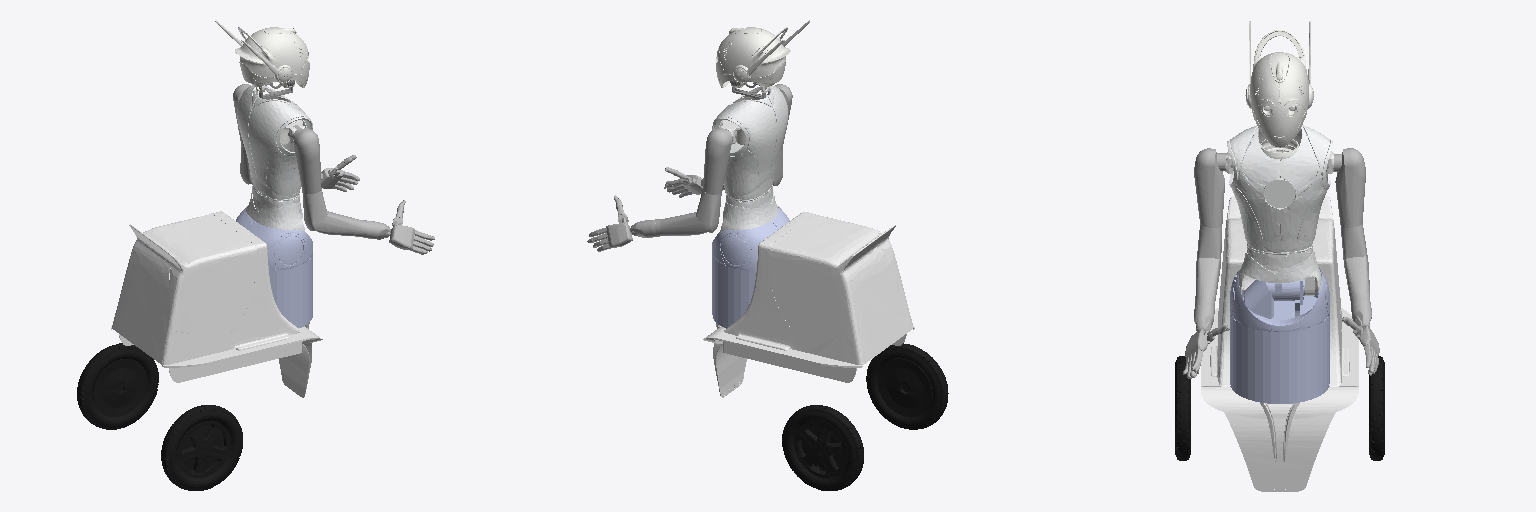
--- Facts derived from the render (not from the file) ---
3 views of the same robot in one strip: view 1: azimuth 30°, elevation 25°; view 2: azimuth 150°, elevation 25°; view 3: azimuth 270°, elevation 25° (orthographic).
Model avatar_r0_5 with 71 links and 70 joints (45 revolute, 2 continuous, 23 fixed), rooted at base_link, posed joints at zero except 2 at the middle of their limits (right_elbow = 1.13, left_elbow = 1.13).
Visible links, largest first — view 1: platform_link, chest_link, back_right_wheel_link, back_left_wheel_link, waist_link, head_link, right_should, right_EF, right_HR, right_Palm-1; view 2: platform_link, chest_link, back_left_wheel_link, back_right_wheel_link, waist_link, head_link, left_should, left_EF, left_HR, left_Palm-1; view 3: platform_link, chest_link, waist_link, head_link, left_should, right_should, back_right_wheel_link, back_left_wheel_link, right_EF, left_EF, right_HR, left_HR.
Boxes of the visible links, box(x1,y1,x2,y2) form: platform_link: box(111, 211, 322, 397); chest_link: box(237, 85, 312, 230); back_right_wheel_link: box(161, 405, 242, 490); back_left_wheel_link: box(77, 343, 158, 429); waist_link: box(236, 206, 312, 327); head_link: box(215, 20, 309, 92); right_should: box(294, 128, 321, 193); right_EF: box(307, 211, 362, 236); right_HR: box(302, 189, 327, 230); right_Palm-1: box(389, 221, 414, 249); platform_link: box(703, 212, 914, 397); chest_link: box(712, 85, 787, 231); back_left_wheel_link: box(782, 405, 863, 490); back_right_wheel_link: box(866, 343, 948, 429); waist_link: box(712, 206, 789, 328); head_link: box(716, 20, 809, 92); left_should: box(703, 128, 731, 194); left_EF: box(660, 212, 710, 235); left_HR: box(696, 190, 721, 232); left_Palm-1: box(606, 218, 632, 247); platform_link: box(1201, 195, 1358, 491); chest_link: box(1227, 125, 1332, 295); waist_link: box(1230, 268, 1329, 403); head_link: box(1245, 21, 1313, 147); left_should: box(1335, 148, 1365, 227); right_should: box(1194, 148, 1224, 227); back_right_wheel_link: box(1175, 356, 1190, 460); back_left_wheel_link: box(1369, 356, 1384, 460); right_EF: box(1195, 258, 1220, 301); left_EF: box(1344, 256, 1369, 300); right_HR: box(1197, 225, 1221, 259); left_HR: box(1341, 224, 1367, 259).
Bounding box of the posed robot: 1.12 × 0.6394 × 1.59 m (x, y, z).
82 mesh visuals loaded from 76 distinct referenced files (66 OBJ); not drawn: 1 (reference not matched to a file when rendering).

The robot description file, URDF, robot "avatar_r0_5":
<?xml version="1.0" encoding="utf-8"?>
<!-- =================================================================================== -->
<!-- |    This document was autogenerated by xacro from avatar_r0_5.urdf.xacro         | -->
<!-- |    EDITING THIS FILE BY HAND IS NOT RECOMMENDED                                 | -->
<!-- =================================================================================== -->
<!-- This URDF was automatically created by SolidWorks to URDF Exporter! Originally created by Stephen Brawner ([email redacted])
     Commit Version: 1.5.1-0-g916b5db  Build Version: 1.5.7152.31018
     For more information, please see http://wiki.ros.org/sw_urdf_exporter -->
<robot name="avatar_r0_5">
  <link name="base_link">
  </link>
  <link name="robot_base_link">
    <inertial>
      <origin rpy="0 0 0" xyz="-0.00059717 0.23425 0.23101"/>
      <mass value="618.166"/>
      <inertia ixx="0.27355" ixy="-3.5553E-08" ixz="1.7118E-08" iyy="0.032156" iyz="0.026709" izz="0.25168"/>
    </inertial>
    <visual>
      <origin rpy="0 0 0" xyz="0 0 0"/>
      <geometry>
        <mesh filename="meshes/base_link.obj"/>
      </geometry>
      <material name="">
        <color rgba="0.078431 0.078431 0.078431 1"/>
      </material>
    </visual>
    <collision>
      <origin rpy="0 0 0" xyz="0 0 0"/>
      <geometry>
        <mesh filename="meshes/base_link.obj"/>
      </geometry>
    </collision>
  </link>
  <joint name="base2base" type="fixed">
    <origin rpy="0 0 1.5708" xyz="0.47189 0 0"/>
    <parent link="base_link"/>
    <child link="robot_base_link"/>
    <axis xyz="0 0 0"/>
  </joint>
  <link name="platform_link">
    <inertial>
      <origin rpy="0 0 0" xyz="-0.0019169 -0.019253 0.12225"/>
      <mass value="5.2089"/>
      <inertia ixx="0.097524" ixy="-0.0012534" ixz="0.0012359" iyy="0.12991" iyz="0.009425" izz="0.12902"/>
    </inertial>
    <visual>
      <origin rpy="0 0 0" xyz="0 0 0"/>
      <geometry>
        <mesh filename="meshes/platform_link.obj"/>
      </geometry>
      <material name="">
        <color rgba="0.96078 0.96078 0.96471 1"/>
      </material>
    </visual>
    <collision>
      <origin rpy="0 0 0" xyz="0 0 0"/>
      <geometry>
        <mesh filename="meshes/platform_link.obj"/>
      </geometry>
    </collision>
  </link>
  <joint name="base2platform" type="fixed">
    <origin rpy="0 0 0" xyz="-0.00064398 0.26937 0.44804"/>
    <parent link="robot_base_link"/>
    <child link="platform_link"/>
    <axis xyz="0 0 0"/>
  </joint>
  <link name="waist_link">
    <inertial>
      <origin rpy="0 0 0" xyz="0.0018725 -0.0033609 0.1446"/>
      <mass value="21.191"/>
      <inertia ixx="0.19935" ixy="-1.3224E-06" ixz="0.00099714" iyy="0.2049" iyz="-0.00020488" izz="0.21829"/>
    </inertial>
    <visual>
      <origin rpy="0 0 0" xyz="0 0 0"/>
      <geometry>
        <mesh filename="meshes/waist_link.obj"/>
      </geometry>
      <material name="">
        <color rgba="0.79216 0.81961 0.93333 1"/>
      </material>
    </visual>
    <collision>
      <origin rpy="0 0 0" xyz="0 0 0"/>
      <geometry>
        <mesh filename="meshes/waist_link.obj"/>
      </geometry>
    </collision>
  </link>
  <joint name="waist_rot" type="fixed">
    <origin rpy="0 0 -1.5708" xyz="0 -0.24 -1.325E-05"/>
    <parent link="platform_link"/>
    <child link="waist_link"/>
    <axis xyz="0 0 -1"/>
    <limit effort="0" lower="-1" upper="1" velocity="2"/>
  </joint>
  <link name="chest_link">
    <inertial>
      <origin rpy="0 0 0" xyz="0.0372440537545067 0.11132546173049 0.0211577100485159"/>
      <mass value="0.304842527068954"/>
      <inertia ixx="0.000294481419363187" ixy="0.000242567817341944" ixz="-5.52363714472291E-07" iyy="0.00103928704482828" iyz="4.86582984793202E-06" izz="0.00120731891145862"/>
    </inertial>
    <visual>
      <origin rpy="0 0 0" xyz="0 0 0"/>
      <geometry>
        <mesh filename="meshes/chest_link.obj"/>
      </geometry>
      <material name="">
        <color rgba="0.956862745098039 0.96078431372549 0.964705882352941 1"/>
      </material>
    </visual>
    <collision>
      <origin rpy="0 0 0" xyz="0 0 0"/>
      <geometry>
        <mesh filename="meshes/chest_link.obj"/>
      </geometry>
    </collision>
  </link>
  <joint name="waist_tilt" type="fixed">
    <origin rpy="1.5708 0 1.5708" xyz="0.026019 0 0.336"/>
    <parent link="waist_link"/>
    <child link="chest_link"/>
    <axis xyz="-1 0 0"/>
    <limit effort="0" lower="0" upper="1" velocity="2"/>
  </joint>
  <link name="headset_static_link"/>
  <joint name="headset_static" type="fixed">
    <origin xyz="0 0.561 -0.058"/>
    <parent link="chest_link"/>
    <child link="headset_static_link"/>
    <axis xyz="0 0 0"/>
  </joint>
  <link name="r_should_axis_link">
    <inertial>
      <origin rpy="0 0 0" xyz="0.0271747977618289 -2.87714544225082E-05 0.0136872715581331"/>
      <mass value="0.0760510742436307"/>
      <inertia ixx="5.01097287434105E-05" ixy="3.09946970417366E-08" ixz="2.474321199555E-05" iyy="0.000103376219183421" iyz="1.77481964668466E-08" izz="0.000115998977330436"/>
    </inertial>
    <visual>
      <origin rpy="0 0 0" xyz="0 0 0"/>
      <geometry>
        <mesh filename="meshes/r_should_axis_link.obj"/>
      </geometry>
      <material name="">
        <color rgba="0.96078431372549 0.96078431372549 0.964705882352941 1"/>
      </material>
    </visual>
    <collision>
      <origin rpy="0 0 0" xyz="0 0 0"/>
      <geometry>
        <mesh filename="meshes/r_should_axis_link.obj"/>
      </geometry>
    </collision>
  </link>
  <joint name="right_shoulder_add" type="revolute">
    <origin rpy="1.5708 0 3.1416" xyz="-0.10061 0.416 0"/>
    <parent link="chest_link"/>
    <child link="r_should_axis_link"/>
    <axis xyz="0 0 -1"/>
    <limit effort="1" lower="-0.4" upper="0.75" velocity="1.0"/>
  </joint>
  <link name="r_interface_link">
    <inertial>
      <mass value="2e-06"/>
      <inertia ixx="1.1e-09" ixy="0" ixz="0" iyy="1.1e-09" iyz="0" izz="1.1e-09"/>
    </inertial>
  </link>
  <joint name="r_rot2int" type="fixed">
    <origin rpy="1.5708 0 -1.5708" xyz="0.065 0 0"/>
    <parent link="r_should_axis_link"/>
    <child link="r_interface_link"/>
    <axis xyz="0 0 0"/>
  </joint>
  <link name="l_should_axis_link">
    <inertial>
      <origin rpy="0 0 0" xyz="0.0271746660088268 -7.81820416141978E-05 0.0136872746188932"/>
      <mass value="0.0760509825087617"/>
      <inertia ixx="5.01100039793683E-05" ixy="1.27864503626856E-07" ixz="2.47431993244341E-05" iyy="0.000103375868748006" iyz="-2.72311343991148E-08" izz="0.000115998907803854"/>
    </inertial>
    <visual>
      <origin rpy="0 0 0" xyz="0 0 0"/>
      <geometry>
        <mesh filename="meshes/l_should_axis_link.obj"/>
      </geometry>
      <material name="">
        <color rgba="0.96078431372549 0.96078431372549 0.964705882352941 1"/>
      </material>
    </visual>
    <collision>
      <origin rpy="0 0 0" xyz="0 0 0"/>
      <geometry>
        <mesh filename="meshes/l_should_axis_link.obj"/>
      </geometry>
    </collision>
  </link>
  <joint name="left_shoulder_add" type="revolute">
    <origin rpy="-1.5708 0 0" xyz="0.10061 0.416 0"/>
    <parent link="chest_link"/>
    <child link="l_should_axis_link"/>
    <axis xyz="0 0 -1"/>
    <limit effort="1" lower="-0.4" upper="0.75" velocity="1.0"/>
  </joint>
  <link name="l_interface_link">
    <inertial>
      <mass value="2e-06"/>
      <inertia ixx="1.1e-09" ixy="0" ixz="0" iyy="1.1e-09" iyz="0" izz="1.1e-09"/>
    </inertial>
  </link>
  <joint name="l_rot2int" type="fixed">
    <origin rpy="1.5708 0 -1.5708" xyz="0.065 0 0"/>
    <parent link="l_should_axis_link"/>
    <child link="l_interface_link"/>
    <axis xyz="0 0 0"/>
  </joint>
  <link name="neck_link">
    <inertial>
      <origin rpy="0 0 0" xyz="0.00254198003148301 -0.0042899348435868 0.0597355945693789"/>
      <mass value="0.226156386299716"/>
      <inertia ixx="0.000298264432447616" ixy="-8.6285503781533E-08" ixz="-2.54208064471585E-05" iyy="0.000445729865029852" iyz="3.08030083027245E-06" izz="0.000263681814976853"/>
    </inertial>
    <visual>
      <origin rpy="0 0 0" xyz="0 0 0"/>
      <geometry>
        <mesh filename="meshes/neck_link.obj"/>
      </geometry>
      <material name="">
        <color rgba="0.964705882352941 0.964705882352941 0.952941176470588 1"/>
      </material>
    </visual>
    <collision>
      <origin rpy="0 0 0" xyz="0 0 0"/>
      <geometry>
        <mesh filename="meshes/neck_link.obj"/>
      </geometry>
    </collision>
  </link>
  <joint name="head_roll" type="revolute">
    <origin rpy="1.5708 -1.5708 0" xyz="0 0.46811 0"/>
    <parent link="chest_link"/>
    <child link="neck_link"/>
    <axis xyz="0 0 -1"/>
    <limit effort="0" lower="-1" upper="1" velocity="2"/>
  </joint>
  <link name="int_neck_link">
    <inertial>
      <origin rpy="0 0 0" xyz="0.00446725260220915 -0.0183808549428746 0.0300851016361073"/>
      <mass value="0.114056596786427"/>
      <inertia ixx="0.00012606821774216" ixy="2.28265988902673E-05" ixz="-7.8541837751612E-10" iyy="7.66886412489432E-05" iyz="8.94077252626148E-07" izz="0.000161197943235499"/>
    </inertial>
    <visual>
      <origin rpy="0 0 0" xyz="0 0 0"/>
      <geometry>
        <mesh filename="meshes/int_neck_link.obj"/>
      </geometry>
      <material name="">
        <color rgba="0.627450980392157 0.627450980392157 0.627450980392157 1"/>
      </material>
    </visual>
    <collision>
      <origin rpy="0 0 0" xyz="0 0 0"/>
      <geometry>
        <mesh filename="meshes/int_neck_link.obj"/>
      </geometry>
    </collision>
  </link>
  <joint name="head_pitch" type="revolute">
    <origin rpy="1.5708 -1.5708 0" xyz="0 0.03 -0.092793"/>
    <parent link="neck_link"/>
    <child link="int_neck_link"/>
    <axis xyz="0 0 -1"/>
    <limit effort="0" lower="-1" upper="1" velocity="2"/>
  </joint>
  <link name="head_link">
    <inertial>
      <origin rpy="0 0 0" xyz="-0.00034972360416687 0.100321708327407 0.0462704493794094"/>
      <mass value="0.984338424422936"/>
      <inertia ixx="0.00909196152115448" ixy="1.96099549660613E-05" ixz="-7.54355391932556E-05" iyy="0.00887552436672255" iyz="0.00107906657883322" izz="0.0058997338915657"/>
    </inertial>
    <visual>
      <origin rpy="0 0 0" xyz="0 0 0"/>
      <geometry>
        <mesh filename="meshes/head_link.obj"/>
      </geometry>
      <material name="">
        <color rgba="0.964705882352941 0.964705882352941 0.952941176470588 1"/>
      </material>
    </visual>
    <collision>
      <origin rpy="0 0 0" xyz="0 0 0"/>
      <geometry>
        <mesh filename="meshes/head_link.obj"/>
      </geometry>
    </collision>
  </link>
  <joint name="head_yaw" type="revolute">
    <origin rpy="1.5708 -1.5708 0" xyz="0 0.0583 0.03"/>
    <parent link="int_neck_link"/>
    <child link="head_link"/>
    <axis xyz="0 0 -1"/>
    <limit effort="0" lower="-1" upper="1" velocity="2"/>
  </joint>
  <gazebo reference="head_link">
    <sensor name="stereo_camera" type="multicamera">
      <update_rate>30.0</update_rate>
      <camera name="left">
        <pose>0.34 0.08 0.18 -1.5 -1.57079632679 0</pose>
        <horizontal_fov>1.5</horizontal_fov>
        <image>
          <width>2000</width>
          <height>2000</height>
          <format>R8G8B8</format>
        </image>
        <clip>
          <near>0.02</near>
          <far>300</far>
        </clip>
        <noise>
          <type>gaussian</type>
          <mean>0.0</mean>
          <stddev>0.007</stddev>
        </noise>
      </camera>
      <camera name="right">
        <pose>-0.34 0.08 0.18 -1.5 -1.57079632679 0</pose>
        <horizontal_fov>1.5</horizontal_fov>
        <image>
          <width>2000</width>
          <height>2000</height>
          <format>R8G8B8</format>
        </image>
        <clip>
          <near>0.02</near>
          <far>300</far>
        </clip>
        <noise>
          <type>gaussian</type>
          <mean>0.0</mean>
          <stddev>0.007</stddev>
        </noise>
      </camera>
      <plugin filename="libgazebo_ros_multicamera.so" name="stereo_camera_controller">
        <alwaysOn>true</alwaysOn>
        <updateRate>30.0</updateRate>
        <cameraName>stereo</cameraName>
        <imageTopicName>image_raw</imageTopicName>
        <cameraInfoTopicName>camera_info</cameraInfoTopicName>
        <frameName>headset_ref_link</frameName>
        <!--<rightFrameName>right_camera_optical_frame</rightFrameName>-->
        <hackBaseline>0.07</hackBaseline>
        <distortionK1>0.0</distortionK1>
        <distortionK2>0.0</distortionK2>
        <distortionK3>0.0</distortionK3>
        <distortionT1>0.0</distortionT1>
        <distortionT2>0.0</distortionT2>
      </plugin>
    </sensor>
  </gazebo>
  <link name="back_right_wheel_link">
    <inertial>
      <origin rpy="0 0 0" xyz="0.273920577623631 0.179561068433909 0.286971322571023"/>
      <mass value="54.5072450439845"/>
      <inertia ixx="3.2626420916854" ixy="-0.715168125553895" ixz="0.00187676696111892" iyy="3.65946751006854" iyz="-0.0238541518110344" izz="4.53563009030134"/>
    </inertial>
    <visual>
      <origin rpy="0 0 0" xyz="0 0 0"/>
      <geometry>
        <mesh filename="meshes/rdwheel_link.obj"/>
      </geometry>
      <material name="">
        <color rgba="0.152941176470588 0.152941176470588 0.152941176470588 1"/>
      </material>
    </visual>
    <collision>
      <origin rpy="0 0 0" xyz="0 0 0"/>
      <geometry>
        <cylinder length="0.05" radius="0.16"/>
      </geometry>
    </collision>
  </link>
  <gazebo reference="back_right_wheel_link">
    <mu1 value="1e+15.0"/>
    <mu2 value="1e+15.0"/>
    <kp value="10000000.0"/>
    <kd value="1.0"/>
  </gazebo>
  <joint name="back_right_wheel" type="continuous">
    <parent link="robot_base_link"/>
    <child link="back_right_wheel_link"/>
    <origin rpy="0 1.5707963267949 0" xyz="-0.288475010713314 0.47189 0.15651"/>
    <axis rpy="0 0 0" xyz="0 0 1.0"/>
  </joint>
  <transmission name="back_right_wheel_trans" type="SimpleTransmission">
    <type>transmission_interface/SimpleTransmission</type>
    <actuator name="back_right_wheel_motor">
      <mechanicalReduction>1</mechanicalReduction>
    </actuator>
    <joint name="back_right_wheel">
      <hardwareInterface>hardware_interface/VelocityJointInterface</hardwareInterface>
    </joint>
  </transmission>
  <link name="back_left_wheel_link">
    <inertial>
      <origin rpy="0 0 0" xyz="0.273920577623631 0.179561068433909 0.286971322571023"/>
      <mass value="54.5072450439845"/>
      <inertia ixx="3.2626420916854" ixy="-0.715168125553895" ixz="0.00187676696111892" iyy="3.65946751006854" iyz="-0.0238541518110344" izz="4.53563009030134"/>
    </inertial>
    <visual>
      <origin rpy="0 0 0" xyz="0 0 0"/>
      <geometry>
        <mesh filename="meshes/rdwheel_link.obj"/>
      </geometry>
      <material name="">
        <color rgba="0.152941176470588 0.152941176470588 0.152941176470588 1"/>
      </material>
    </visual>
    <collision>
      <origin rpy="0 0 0" xyz="0 0 0"/>
      <geometry>
        <cylinder length="0.05" radius="0.16"/>
      </geometry>
    </collision>
  </link>
  <gazebo reference="back_left_wheel_link">
    <mu1 value="1e+15.0"/>
    <mu2 value="1e+15.0"/>
    <kp value="10000000.0"/>
    <kd value="1.0"/>
  </gazebo>
  <joint name="back_left_wheel" type="continuous">
    <parent link="robot_base_link"/>
    <child link="back_left_wheel_link"/>
    <origin rpy="0 -1.5707963267949 0" xyz="0.288475010713314 0.47189 0.15651"/>
    <axis rpy="0 0 0" xyz="0 0 -1.0"/>
  </joint>
  <transmission name="back_left_wheel_trans" type="SimpleTransmission">
    <type>transmission_interface/SimpleTransmission</type>
    <actuator name="back_left_wheel_motor">
      <mechanicalReduction>1</mechanicalReduction>
    </actuator>
    <joint name="back_left_wheel">
      <hardwareInterface>hardware_interface/VelocityJointInterface</hardwareInterface>
    </joint>
  </transmission>
  <link name="right_SFA">
    <inertial>
      <origin rpy="1.57079632679 1.57079632679 0" xyz="0 0 -0.038"/>
      <mass value="0.481"/>
      <inertia ixx="0.00017071" ixy="2.1462E-06" ixz="-7.2565E-07" iyy="0.00016837" iyz="4.1009E-07" izz="0.00030213"/>
    </inertial>
    <collision>
      <origin rpy="0 0 0" xyz="0 0 -0.0325"/>
      <geometry>
        <cylinder length="0.07" radius="0.0276"/>
      </geometry>
    </collision>
    <visual>
      <origin rpy="0 0 0" xyz="0 0 -0.0325"/>
      <geometry>
        <cylinder length="0.07" radius="0.0276"/>
      </geometry>
      <material name="">
        <color rgba="0.75294 0.75294 0.75294 1"/>
      </material>
    </visual>
  </link>
  <joint name="right_abductor" type="revolute">
    <origin rpy="0.02569452348 3.1415926 0" xyz="0 0 -0.035"/>
    <parent link="r_interface_link"/>
    <child link="right_SFA"/>
    <axis xyz="-1 0 0"/>
    <limit effort="10.0" lower="0.0" upper="0.6" velocity="2.0"/>
    <dynamics damping="2.0" friction="0"/>
  </joint>
  <link name="right_should">
    <inertial>
      <origin rpy="0 0 0" xyz="0 0 0"/>
      <mass value="0.481"/>
      <inertia ixx="0.00017071" ixy="2.1462E-06" ixz="-7.2565E-07" iyy="0.00016837" iyz="4.1009E-07" izz="0.00030213"/>
    </inertial>
    <collision>
      <origin rpy="0 0 0" xyz="0 0 0"/>
      <geometry>
        <mesh filename="meshes/right/Arm_SFA.obj"/>
      </geometry>
    </collision>
    <visual>
      <origin rpy="0 0 0" xyz="0 0 0"/>
      <geometry>
        <mesh filename="meshes/right/Arm_SFA.obj"/>
      </geometry>
      <material name="">
        <color rgba="0.75294 0.75294 0.75294 1"/>
      </material>
    </visual>
  </link>
  <joint name="right_shoulder" type="revolute">
    <origin rpy="-0.0872665 0 0.12545544" xyz="0 0 0.0"/>
    <parent link="right_SFA"/>
    <child link="right_should"/>
    <axis xyz="0 0 1"/>
    <limit effort="10.0" lower="-0.48" upper="2.0" velocity="2.0"/>
    <dynamics damping="2.0" friction="0"/>
  </joint>
  <link name="right_HR">
    <inertial>
      <origin rpy="0 0 0" xyz="0 0 0"/>
      <mass value="0.481"/>
      <inertia ixx="0.00017071" ixy="2.1462E-06" ixz="-7.2565E-07" iyy="0.00016837" iyz="4.1009E-07" izz="0.00030213"/>
    </inertial>
    <collision>
      <origin rpy="0 0 0" xyz="0 0 0"/>
      <geometry>
        <mesh filename="meshes/right/Arm_HR.obj"/>
      </geometry>
    </collision>
    <visual>
      <origin rpy="0 0 0" xyz="0 0 0"/>
      <geometry>
        <mesh filename="meshes/right/Arm_HR.obj"/>
      </geometry>
      <material name="">
        <color rgba="0.75294 0.75294 0.75294 1"/>
      </material>
    </visual>
  </link>
  <joint name="right_humeral" type="revolute">
    <origin rpy="0 -0.0349065 0" xyz="0 -0.314 -0.0045"/>
    <parent link="right_should"/>
    <child link="right_HR"/>
    <axis xyz="0 -1 0"/>
    <limit effort="10.0" lower="-1.6" upper="1.65" velocity="2.0"/>
    <dynamics damping="2.0" friction="0"/>
  </joint>
  <link name="right_EF">
    <inertial>
      <origin rpy="0 0 0" xyz="0 0 0"/>
      <mass value="0.481"/>
      <inertia ixx="0.00017071" ixy="2.1462E-06" ixz="-7.2565E-07" iyy="0.00016837" iyz="4.1009E-07" izz="0.00030213"/>
    </inertial>
    <collision>
      <origin rpy="0 0 0" xyz="0 0 0"/>
      <geometry>
        <mesh filename="meshes/right/Arm_EF.obj"/>
      </geometry>
    </collision>
    <visual>
      <origin rpy="0 0 0" xyz="0 0 0"/>
      <geometry>
        <mesh filename="meshes/right/Arm_EF.obj"/>
      </geometry>
      <material name="">
        <color rgba="0.75294 0.75294 0.75294 1"/>
      </material>
    </visual>
  </link>
  <joint name="right_elbow" type="revolute">
    <origin rpy="0.02236203 1.57079632679 0" xyz="0 0 0"/>
    <parent link="right_HR"/>
    <child link="right_EF"/>
    <axis xyz="-1 0 0"/>
    <limit effort="10.0" lower="0.0125" upper="2.25" velocity="2.0"/>
    <dynamics damping="2.0" friction="0"/>
  </joint>
  <!-- Model SDF copied from gazebo_models
  <gazebo>
    <joint name='${prefix}_elbow' type='revolute'>
      <child>WR_Base-1</child>
      <parent>world</parent>
      <axis>
        <xyz>0 0 1.0</xyz>
        <limit>
          <lower>0</lower>
          <upper>0</upper>
          <effort>10000</effort>
          <velocity>-1</velocity>
        </limit>
        <dynamics>
          <damping>2</damping>
          <friction>0</friction>
          <spring_reference>0</spring_reference>
          <spring_stiffness>0</spring_stiffness>
        </dynamics>
        <use_parent_model_frame>1</use_parent_model_frame>
      </axis>
      <physics>
        <provide_feedback>1</provide_feedback>
        <ode>
          <provide_feedback>1</provide_feedback>
          <implicit_spring_damper>1</implicit_spring_damper>
          <cfm_damping>1</cfm_damping>
          <limit>
            <cfm>0.01</cfm>
            <erp>0</erp>
          </limit>
        </ode>
      </physics>
    </joint>
  </gazebo>
  -->
  <transmission name="right_tran1" type="SimpleTransmission">
    <type>transmission_interface/SimpleTransmission</type>
    <joint name="right_abductor">
      <hardwareInterface>hardware_interface/PositionJointInterface</hardwareInterface>
    </joint>
    <actuator name="right_motor1">
      <mechanicalReduction>1</mechanicalReduction>
    </actuator>
  </transmission>
  <transmission name="right_tran2" type="SimpleTransmission">
    <type>transmission_interface/SimpleTransmission</type>
    <joint name="right_shoulder">
      <hardwareInterface>hardware_interface/PositionJointInterface</hardwareInterface>
    </joint>
    <actuator name="right_motor2">
      <mechanicalReduction>1</mechanicalReduction>
    </actuator>
  </transmission>
  <transmission name="right_tran3" type="SimpleTransmission">
    <type>transmission_interface/SimpleTransmission</type>
    <joint name="right_humeral">
      <hardwareInterface>hardware_interface/PositionJointInterface</hardwareInterface>
    </joint>
    <actuator name="right_motor3">
      <mechanicalReduction>1</mechanicalReduction>
    </actuator>
  </transmission>
  <transmission name="right_tran4" type="SimpleTransmission">
    <type>transmission_interface/SimpleTransmission</type>
    <joint name="right_elbow">
      <hardwareInterface>hardware_interface/PositionJointInterface</hardwareInterface>
    </joint>
    <actuator name="right_motor4">
      <mechanicalReduction>1</mechanicalReduction>
    </actuator>
  </transmission>
  <gazebo reference="right_abductor">
    <implicitSpringDamper>1</implicitSpringDamper>
    <cfm>0.01</cfm>
    <erp>0.0</erp>
    <stopCfm>0.01</stopCfm>
    <stopErp>0.0</stopErp>
  </gazebo>
  <gazebo reference="right_shoulder">
    <implicitSpringDamper>1</implicitSpringDamper>
    <cfm>0.01</cfm>
    <erp>0.0</erp>
    <stopCfm>0.01</stopCfm>
    <stopErp>0.0</stopErp>
  </gazebo>
  <gazebo reference="right_humeral">
    <implicitSpringDamper>1</implicitSpringDamper>
    <cfm>0.01</cfm>
    <erp>0.0</erp>
    <stopCfm>0.01</stopCfm>
    <stopErp>0.0</stopErp>
  </gazebo>
  <gazebo reference="right_elbow">
    <implicitSpringDamper>1</implicitSpringDamper>
    <cfm>0.01</cfm>
    <erp>0.0</erp>
    <stopCfm>0.01</stopCfm>
    <stopErp>0.0</stopErp>
  </gazebo>
  <gazebo reference="right_SFA">
    <!-- <selfCollide>1</selfCollide> -->
    <collision>
      <max_contacts>4</max_contacts>
      <surface>
        <contact>
          <ode>
            <kp>1e+06</kp>
            <kd>100</kd>
            <max_vel>100</max_vel>
            <min_depth>0.001</min_depth>
          </ode>
        </contact>
        <friction>
          <ode>
            <mu>1</mu>
            <mu2>1</mu2>
          </ode>
        </friction>
      </surface>
    </collision>
    <visual>
      <material>
        <ambient> 0.5 0.5 0.5 1.0</ambient>
        <diffuse> 0.5 0.5 0.5 1.0</diffuse>
        <specular>0.5 0.5 0.5 0.8</specular>
      </material>
    </visual>
  </gazebo>
  <gazebo reference="right_should">
    <!-- <selfCollide>1</selfCollide> -->
    <collision>
      <max_contacts>4</max_contacts>
      <surface>
        <contact>
          <ode>
            <kp>1e+06</kp>
            <kd>100</kd>
            <max_vel>100</max_vel>
            <min_depth>0.001</min_depth>
          </ode>
        </contact>
        <friction>
          <ode>
            <mu>1</mu>
            <mu2>1</mu2>
          </ode>
        </friction>
      </surface>
    </collision>
    <visual>
      <material>
        <ambient> 0.5 0.5 0.5 1.0</ambient>
        <diffuse> 0.5 0.5 0.5 1.0</diffuse>
        <specular>0.5 0.5 0.5 0.8</specular>
      </material>
    </visual>
  </gazebo>
  <gazebo reference="right_HR">
    <!-- <selfCollide>1</selfCollide> -->
    <collision>
      <max_contacts>4</max_contacts>
      <surface>
        <contact>
          <ode>
            <kp>1e+06</kp>
            <kd>100</kd>
            <max_vel>100</max_vel>
            <min_depth>0.001</min_depth>
          </ode>
        </contact>
        <friction>
          <ode>
            <mu>1</mu>
            <mu2>1</mu2>
          </ode>
        </friction>
      </surface>
    </collision>
    <visual>
      <material>
        <ambient> 0.5 0.5 0.5 1.0</ambient>
        <diffuse> 0.5 0.5 0.5 1.0</diffuse>
        <specular>0.5 0.5 0.5 0.8</specular>
      </material>
    </visual>
  </gazebo>
  <gazebo reference="right_EF">
    <!-- <selfCollide>1</selfCollide> -->
    <collision>
      <max_contacts>4</max_contacts>
      <surface>
        <contact>
          <ode>
            <kp>1e+06</kp>
            <kd>100</kd>
            <max_vel>100</max_vel>
            <min_depth>0.001</min_depth>
          </ode>
        </contact>
        <friction>
          <ode>
            <mu>1</mu>
            <mu2>1</mu2>
          </ode>
        </friction>
      </surface>
    </collision>
    <visual>
      <material>
        <ambient> 0.5 0.5 0.5 1.0</ambient>
        <diffuse> 0.5 0.5 0.5 1.0</diffuse>
        <specular>0.5 0.5 0.5 0.8</specular>
      </material>
    </visual>
  </gazebo>
  <gazebo reference="right_WR_Forearm-1">
    <!-- <selfCollide>1</selfCollide> -->
    <collision>
      <max_contacts>4</max_contacts>
      <surface>
        <contact>
          <ode>
            <kp>1e+06</kp>
            <kd>100</kd>
            <max_vel>100</max_vel>
            <min_depth>0.001</min_depth>
          </ode>
        </contact>
        <friction>
          <ode>
            <mu>1</mu>
            <mu2>1</mu2>
          </ode>
        </friction>
      </surface>
    </collision>
    <visual>
      <material>
        <ambient> 0.6 0.6 0.6 1.0</ambient>
        <diffuse> 0.6 0.6 0.6 1.0</diffuse>
        <specular>0.6 0.6 0.6 0.8</specular>
      </material>
    </visual>
  </gazebo>
  <link name="right_WR_Base-1">
    <inertial>
      <origin rpy="0 0 -1.5708" xyz="0.00023527 0 0.01049"/>
      <mass value="0.481"/>
      <inertia ixx="0.00017071" ixy="2.1462E-06" ixz="-7.2565E-07" iyy="0.00016837" iyz="4.1009E-07" izz="0.00030213"/>
    </inertial>
    <collision>
      <origin rpy="0 0 0" xyz="0 0 0.0105"/>
      <geometry>
        <cylinder length="0.029" radius="0.032"/>
      </geometry>
    </collision>
    <visual>
      <origin rpy="0 0 0" xyz="0 0 0.025"/>
      <geometry>
        <mesh filename="meshes/right/base.obj"/>
      </geometry>
      <material name="">
        <color rgba="0.75294 0.75294 0.75294 1"/>
      </material>
    </visual>
    <!--
    <visual>
      <origin xyz="0 0 0.001" rpy="0 0 0"/>
      <geometry>
        <mesh
          filename="meshes/${prefix}/WR_Base-1a.obj" />
      </geometry>
      <material
        name="">
        <color
          rgba="0.75294 0.75294 0.75294 1" />
      </material>
    </visual>
    <visual>
      <origin xyz="0 0 0.02" rpy="0 0 0"/>
      <geometry>
        <mesh
          filename="meshes/${prefix}/WR_Base-1.obj" />
      </geometry>
      <material
        name="">
        <color
          rgba="0.75294 0.75294 0.75294 1" />
      </material>
    </visual>
    -->
  </link>
  <joint name="right_EF2Base" type="fixed">
    <origin rpy="1.57079632679 0 0" xyz="0.0 -0.169 -0.009"/>
    <parent link="right_EF"/>
    <child link="right_WR_Base-1"/>
  </joint>
  <gazebo>
    <joint name="right_EF2Base" type="fixed">
      <pose>0.0 -0.169 -0.009 1.57079632679 0 0</pose>
      <parent>right_EF</parent>
      <child>right_WR_Base-1</child>
    </joint>
  </gazebo>
  <link name="right_WR_Forearm-1">
    <inertial>
      <origin rpy="0 0 0" xyz="0.00023527 -0.00012926 0.01049"/>
      <mass value="0.481"/>
      <inertia ixx="0.00017071" ixy="2.1462E-06" ixz="-7.2565E-07" iyy="0.00016837" iyz="4.1009E-07" izz="0.00030213"/>
    </inertial>
    <collision>
      <origin rpy="0 0 0" xyz="0 0 0.065"/>
      <geometry>
        <cylinder length="0.08" radius="0.032"/>
      </geometry>
    </collision>
    <collision>
      <origin rpy="1.570796 0 -0.58" xyz="0 0 0.121"/>
      <geometry>
        <cylinder length="0.020" radius="0.02"/>
      </geometry>
    </collision>
    <collision>
      <origin rpy="1.570796 0 -0.58" xyz="0 0 0.103"/>
      <geometry>
        <cylinder length="0.020" radius="0.0275"/>
      </geometry>
    </collision>
    <visual>
      <origin rpy="0 0 0.9" xyz="0 0 0.025"/>
      <geometry>
        <mesh filename="meshes/right/forearm.obj"/>
      </geometry>
      <material name="">
        <color rgba="0.75294 0.75294 0.75294 1"/>
      </material>
    </visual>
    <!--
    <visual>
      <origin xyz="0 0 0.02" rpy="0 0 0"/>
      <geometry>
        <mesh
          filename="meshes/${prefix}/MAC_WR_LUI-1.obj" />
      </geometry>
      <material
        name="">
        <color
          rgba="0.75294 0.75294 0.75294 1" />
      </material>
    </visual>
    <visual>
      <origin xyz="0 0 0.018" rpy="0 0 0"/>
      <geometry>
        <mesh
          filename="meshes/${prefix}/WFD_Mount-1.obj" />
      </geometry>
      <material
        name="">
        <color
          rgba="0.75294 0.75294 0.75294 1" />
      </material>
    </visual>
    -->
  </link>
  <joint name="right_wrist_rot" type="revolute">
    <origin rpy="0 0 -0.5" xyz="0 0 0"/>
    <parent link="right_WR_Base-1"/>
    <child link="right_WR_Forearm-1"/>
    <axis xyz="0 0 -1"/>
    <limit effort="10.0" lower="-2.15" upper="3.15" velocity="1.5"/>
    <dynamics damping="2.63852030857" friction="2.69772560896"/>
  </joint>
  <link name="right_WFD_Gearbox-1">
    <inertial>
      <origin rpy="0 0 0" xyz="-0.00077349 0.0012316 0.025483"/>
      <mass value="0.1555"/>
      <inertia ixx="0.0001555" ixy="0" ixz="0" iyy="0.0001555" iyz="0" izz="0.0001555"/>
    </inertial>
    <collision>
      <origin rpy="1.570796 0.124566 0" xyz="0 0 0"/>
      <geometry>
        <cylinder length="0.035" radius="0.013"/>
      </geometry>
    </collision>
    <visual>
      <origin rpy="0 0 1.56073" xyz="0 0 0"/>
      <geometry>
        <mesh filename="meshes/right/wrist.obj"/>
      </geometry>
      <material name="">
        <color rgba="0.75294 0.75294 0.75294 1"/>
      </material>
    </visual>
    <!--
    <visual>
      <origin xyz="0 -0.023265 -0.098808" rpy="-0.195329 0.124566 0.56073"/>
      <geometry>
        <mesh
          filename="meshes/${prefix}/WFD_Gearbox-1.obj" />
      </geometry>
      <material
        name="">
        <color
          rgba="0.75294 0.75294 0.75294 1" />
      </material>
    </visual>
    -->
  </link>
  <joint name="right_wrist_ab_ad" type="revolute">
    <origin rpy="0.20778714 0 -0.57295" xyz="0 0 0.12151"/>
    <parent link="right_WR_Forearm-1"/>
    <child link="right_WFD_Gearbox-1"/>
    <axis xyz="1 0 0"/>
    <limit effort="10.0" lower="-0.5" upper="0.5" velocity="1.5"/>
    <!-- <limit
      lower="-0.05"
      upper="0.05"
      effort="10.0"
      velocity="1.5" /> -->
    <dynamics damping="1" friction="0.1"/>
  </joint>
  <link name="right_Palm-1">
    <inertial>
      <origin rpy="0 0 0" xyz="-0.00077349 0.0012316 0.025483"/>
      <mass value="0.4747"/>
      <inertia ixx="0.00047" ixy="0" ixz="0" iyy="0.00047" iyz="0" izz="0.00047"/>
    </inertial>
    <collision>
      <!-- -0.003-((0.033+0.003)/4)*cos(0.5607), -((0.033+0.003)/4)*sin(0.5607), z -->
      <origin rpy="0.0 0.0 0.5" xyz="-0.01062194765 -0.00478601231 0.065"/>
      <geometry>
        <box size="0.0195 0.065 0.08"/>
      </geometry>
    </collision>
    <!-- Palm front distal -->
    <collision>
      <!-- -0.003+((0.033+0.012)/4)*cos(0.5607), ((0.033+0.012)/4)*sin(0.5607), z -->
      <origin rpy="0.0 0.0 0.5" xyz="0.00652743457 0.00598251539 0.065"/>
      <geometry>
        <box size="0.0225 0.065 0.035"/>
      </geometry>
    </collision>
    <collision>
      <!-- outside -->
      <!-- -0.003+(0.075/2-0.005/2)*sin(0.5607), -(0.075/2-0.005/2)*cos(0.5607), z -->
      <origin rpy="0.0 0.0 0.56073" xyz="0.01561227012 -0.02964090755 0.065"/>
      <geometry>
        <box size="0.033 0.005 0.06"/>
      </geometry>
    </collision>
    <collision>
      <!-- inside 3 -->
      <!-- -0.003-(0.075/2-0.005/2)*sin(0.5607), (0.075/2-0.005/2)*cos(0.5607), z -->
      <origin rpy="0.0 0.0 0.56073" xyz="-0.02161227012 0.02964090755 0.065"/>
      <geometry>
        <box size="0.033 0.005 0.06"/>
      </geometry>
    </collision>
    <!--
    <collision>
      <origin xyz="-0.003 0 0.065" rpy="0.0 0.0 0.56073"/>
      <geometry>
        <box size="0.033 0.075 0.08"/>
      </geometry>
    </collision>
    -->
    <collision>
      <origin rpy="0.0 0.0 0.56073" xyz="-0.013 0.025 0.015"/>
      <geometry>
        <box size="0.03 0.005 0.02"/>
      </geometry>
    </collision>
    <collision>
      <origin rpy="0.0 0.0 0.56073" xyz="0.013 -0.025 0.015"/>
      <geometry>
        <box size="0.03 0.005 0.02"/>
      </geometry>
    </collision>
    <collision>
      <origin rpy="0.0 0.0 0" xyz="0 0.025 0.00"/>
      <geometry>
        <box size="0.03 0.005 0.02"/>
      </geometry>
    </collision>
    <collision>
      <origin rpy="0.0 0.0 0" xyz="0 -0.025 0.00"/>
      <geometry>
        <box size="0.03 0.005 0.02"/>
      </geometry>
    </collision>
    <!-- Palm front proximal -->
    <collision>
      <!-- -0.003+((0.033+0.012)/4)*cos(0.5607), ((0.033+0.012)/4)*sin(0.5607), z -->
      <origin rpy="0.0 0.0 0.5" xyz="0.00652743457 0.00598251539 0.040"/>
      <geometry>
        <box size="0.0225 0.065 0.015"/>
      </geometry>
    </collision>
    <visual>
      <origin rpy="0 0 2.06073" xyz="0 0 0"/>
      <geometry>
        <mesh filename="meshes/right/palm0.obj"/>
      </geometry>
      <material name="">
        <color rgba="0.75294 0.75294 0.75294 1"/>
      </material>
    </visual>
    <visual>
      <origin rpy="0 0 2.06073" xyz="0 0 0"/>
      <geometry>
        <mesh filename="meshes/right/palm1.obj"/>
      </geometry>
      <material name="">
        <color rgba="0.75294 0.75294 0.75294 1"/>
      </material>
    </visual>
    <visual>
      <origin rpy="0 0 2.06073" xyz="0 0 0"/>
      <geometry>
        <mesh filename="meshes/right/palm2.obj"/>
      </geometry>
      <material name="">
        <color rgba="0.75294 0.75294 0.75294 1"/>
      </material>
    </visual>
  </link>
  <joint name="right_wrist_flex" type="revolute">
    <parent link="right_WFD_Gearbox-1"/>
    <child link="right_Palm-1"/>
    <axis xyz="0 -1 0"/>
    <limit effort="10.0" lower="-0.945" upper="0.945" velocity="1.5"/>
    <!-- <limit
      lower="-0.05"
      upper="0.05"
      effort="10.0"
      velocity="1.5" /> -->
    <dynamics damping="6.25585161861" friction="3.53741608684"/>
  </joint>
  <!-- Gazebo for arm -->
  <transmission name="right_tran5" type="SimpleTransmission">
    <type>transmission_interface/SimpleTransmission</type>
    <joint name="right_wrist_rot">
      <hardwareInterface>hardware_interface/PositionJointInterface</hardwareInterface>
    </joint>
    <actuator name="right_motor5">
      <mechanicalReduction>1</mechanicalReduction>
    </actuator>
  </transmission>
  <transmission name="right_tran6" type="SimpleTransmission">
    <type>transmission_interface/SimpleTransmission</type>
    <joint name="right_wrist_flex">
      <hardwareInterface>hardware_interface/PositionJointInterface</hardwareInterface>
    </joint>
    <actuator name="right_motor6">
      <mechanicalReduction>1</mechanicalReduction>
    </actuator>
  </transmission>
  <transmission name="right_tran7" type="SimpleTransmission">
    <type>transmission_interface/SimpleTransmission</type>
    <joint name="right_wrist_ab_ad">
      <hardwareInterface>hardware_interface/PositionJointInterface</hardwareInterface>
    </joint>
    <actuator name="right_motor7">
      <mechanicalReduction>1</mechanicalReduction>
    </actuator>
  </transmission>
  <!-- Finger Links -->
  <link name="right_Thumb_Gear-1">
    <inertial>
      <origin rpy="0 0 0" xyz="-0.023851 -0.037247 0.017527"/>
      <mass value="0.01"/>
      <inertia ixx="1E-05" ixy="0" ixz="0" iyy="1E-05" iyz="0" izz="1E-05"/>
    </inertial>
    <collision>
      <origin rpy="0 1.58 -0.2" xyz="0 0 0"/>
      <geometry>
        <cylinder length="0.032" radius="0.005"/>
      </geometry>
    </collision>
    <visual>
      <origin rpy="2.8 1.6 2.6" xyz="0 0 0"/>
      <geometry>
        <mesh filename="meshes/right/thumb_Gear.obj"/>
      </geometry>
      <material name="">
        <color rgba="0.75294 0.75294 0.75294 1"/>
      </material>
    </visual>
  </link>
  <joint name="right_thumb_yaw" type="revolute">
    <origin rpy="-2.349 -1.3196 2.8562" xyz="-0.0088038 0.043847 0.04505"/>
    <parent link="right_Palm-1"/>
    <child link="right_Thumb_Gear-1"/>
    <axis xyz="-0.18257 -0.98319 0"/>
    <limit effort="0.1" lower="0" upper="1.28173" velocity="1.5"/>
    <dynamics damping="4.52373387972" friction="0.0789639790315"/>
  </joint>
  <link name="right_Distal_Thumb-1">
    <inertial>
      <origin rpy="0 0 0" xyz="-0.023851 -0.037247 0.017527"/>
      <mass value="0.035"/>
      <inertia ixx="3.5E-05" ixy="0" ixz="0" iyy="3.5E-05" iyz="0" izz="3.5E-05"/>
    </inertial>
    <collision>
      <!-- 0 -->
      <origin rpy="1.7 0 -0.2" xyz="-0.0125 0.015 0.0065"/>
      <geometry>
        <box size="0.005 0.011 0.018"/>
      </geometry>
    </collision>
    <collision>
      <!-- 1 -->
      <origin rpy="1.7 0 -0.2" xyz="0.017 0.008 0.0095"/>
      <geometry>
        <box size="0.003 0.007 0.018"/>
      </geometry>
    </collision>
    <collision>
      <!-- 2 -->
      <origin rpy="1.7 0 -0.2" xyz="0.005 0.02 0.0085"/>
      <geometry>
        <box size="0.030 0.011 0.008"/>
      </geometry>
    </collision>
    <collision>
      <!-- 3 -->
      <origin rpy="1.7 0 -0.2" xyz="0.008 0.04 0.010"/>
      <geometry>
        <cylinder length="0.03" radius="0.012"/>
      </geometry>
    </collision>
    <collision>
      <!-- 4 extend -->
      <origin rpy="1.6 0 -0.2" xyz="0.013 0.065 0.011"/>
      <geometry>
        <cylinder length="0.020" radius="0.009"/>
      </geometry>
    </collision>
    <!-- Distal_Thumb-1 collisions -->
    <collision>
      <!-- 5 -->
      <origin rpy="1.6 0 -0.6" xyz="0.021 0.082 0.011"/>
      <geometry>
        <cylinder length="0.020" radius="0.006"/>
      </geometry>
    </collision>
    <collision>
      <!-- 6 -->
      <origin rpy="1.6 0 -0.6" xyz="0.0265 0.09 0.011"/>
      <geometry>
        <sphere radius="0.006"/>
      </geometry>
    </collision>
    <!-- Dorsal 7 -->
    <!-- 8 extend, move to side -->
    <!-- 9 -->
    <!-- Volar 10 -->
    <!-- Ulnar 11 -->
    <!-- Radial 12 -->
    <visual>
      <origin rpy="1.51 -0.06 1.38" xyz="0 0 0"/>
      <geometry>
        <mesh filename="meshes/right/Thumb_Nail.obj"/>
      </geometry>
      <material name="">
        <color rgba="0.75294 0.75294 0.75294 1"/>
      </material>
    </visual>
    <visual>
      <origin rpy="1.51 -0.06 1.38" xyz="0 0 0"/>
      <geometry>
        <mesh filename="meshes/right/Thumb_Distal.obj"/>
      </geometry>
      <material name="">
        <color rgba="0.75294 0.75294 0.75294 1"/>
      </material>
    </visual>
    <visual>
      <origin rpy="1.51 -0.06 1.38" xyz="0 0 0"/>
      <geometry>
        <mesh filename="meshes/right/Thumb_Proximal.obj"/>
      </geometry>
      <material name="">
        <color rgba="0.75294 0.75294 0.75294 1"/>
      </material>
    </visual>
    <visual>
      <origin rpy="1.51 -0.06 1.38" xyz="0 0 0"/>
      <geometry>
        <mesh filename="meshes/right/thumb1.obj"/>
      </geometry>
      <material name="">
        <color rgba="0.75294 0.75294 0.75294 1"/>
      </material>
    </visual>
    <visual>
      <origin rpy="1.51 -0.06 1.38" xyz="0 0 0"/>
      <geometry>
        <mesh filename="meshes/right/thumb0.obj"/>
      </geometry>
      <material name="">
        <color rgba="0.75294 0.75294 0.75294 1"/>
      </material>
    </visual>
  </link>
  <joint name="right_thumb_pitch" type="revolute">
    <!-- 15 degrees rotation as initial position match fine pinches -->
    <origin rpy="-0.261 0.006 -0.046" xyz="0 0 0"/>
    <parent link="right_Thumb_Gear-1"/>
    <child link="right_Distal_Thumb-1"/>
    <axis xyz="-1 0.18 0"/>
    <limit effort="0.1" lower="0" upper="1.77151" velocity="1.5"/>
    <dynamics damping="0.34331367985" friction="3.4068163289899998"/>
  </joint>
  <link name="right_dklu-38013-001">
    <inertial>
      <origin rpy="0 0 0" xyz="0.0036074 0.077779 0.0021647"/>
      <mass value="0.0049221"/>
      <inertia ixx="8.1722E-07" ixy="5.8087E-08" ixz="1.5443E-08" iyy="3.6646E-07" iyz="1.29E-07" izz="7.8746E-07"/>
    </inertial>
    <visual>
      <origin rpy="-1.0 1.8 -1.19" xyz="0 0 0"/>
      <geometry>
        <mesh filename="meshes/right/dklu-38013-001-1.obj"/>
      </geometry>
      <material name="">
        <color rgba="0.75294 0.75294 0.75294 1"/>
      </material>
    </visual>
  </link>
  <joint name="right_thumb_cosmesis" type="fixed">
    <parent link="right_Distal_Thumb-1"/>
    <child link="right_dklu-38013-001"/>
    <axis xyz="0 0 0"/>
  </joint>
  <link name="right_Index_Proximal-1">
    <inertial>
      <origin rpy="0 0 0" xyz="0.073068 -0.014703 0.011025"/>
      <mass value="0.0191"/>
      <inertia ixx="1.91E-05" ixy="0" ixz="0" iyy="1.91E-05" iyz="0" izz="1.91E-05"/>
    </inertial>
    <collision>
      <origin rpy="1.36808 -1.50 -1.48" xyz="-0.02 0.0023 0.039"/>
      <geometry>
        <cylinder length="0.05" radius="0.0095"/>
      </geometry>
    </collision>
    <visual>
      <origin rpy="-0.1 -1.5708 0" xyz="0 0 0.039"/>
      <geometry>
        <mesh filename="meshes/right/Index_Proximal.obj"/>
      </geometry>
      <material name="">
        <color rgba="0.75294 0.75294 0.75294 1"/>
      </material>
    </visual>
  </link>
  <joint name="right_index_proximal_flex" type="revolute">
    <origin rpy="1.558 1.3505 -2.6305" xyz="0.0062467 -0.0076872 0.099967"/>
    <parent link="right_Palm-1"/>
    <child link="right_Index_Proximal-1"/>
    <axis xyz="0 0 1"/>
    <limit effort="0.1" lower="0" upper="1.48571" velocity="1.5"/>
    <dynamics damping="0.2928021721250000" friction="0.0710255638588"/>
  </joint>
  <link name="right_Index_Distal-1">
    <inertial>
      <origin rpy="0 0 0" xyz="0.11426 -0.0063439 -0.027975"/>
      <mass value="0.0172"/>
      <inertia ixx="1.72E-05" ixy="0" ixz="0" iyy="1.72E-05" iyz="0" izz="1.72E-05"/>
    </inertial>
    <collision>
      <origin rpy="1.36808 -1.50 -1.15" xyz="-0.015 -0.002 0"/>
      <geometry>
        <cylinder length="0.028" radius="0.0095"/>
      </geometry>
    </collision>
    <collision>
      <origin rpy="1.36808 -1.50 -1.15" xyz="-0.035 -0.0075 0"/>
      <geometry>
        <cylinder length="0.013" radius="0.0085"/>
      </geometry>
    </collision>
    <collision>
      <origin rpy="1.36808 -1.50 -1.15" xyz="-0.04 -0.01 0"/>
      <geometry>
        <sphere radius="0.0075"/>
      </geometry>
    </collision>
    <collision>
      <origin rpy="1.75 -1.50 -2.75" xyz="-0.0415 -0.007 0"/>
      <geometry>
        <cylinder length="0.0005" radius="0.0075"/>
      </geometry>
    </collision>
    <collision>
      <!-- extend copy for side -->
      <origin rpy="1.36808 -1.50 -1.15" xyz="-0.015 -0.002 0.001"/>
      <geometry>
        <cylinder length="0.028" radius="0.0095"/>
      </geometry>
    </collision>
    <visual>
      <origin rpy="0.12 -1.5708 0" xyz="0 0 0"/>
      <geometry>
        <mesh filename="meshes/right/Index_Distal0.obj"/>
      </geometry>
      <material name="">
        <color rgba="0.75294 0.75294 0.75294 1"/>
      </material>
    </visual>
    <visual>
      <origin rpy="0.12 -1.5708 0" xyz="0 0 0"/>
      <geometry>
        <mesh filename="meshes/right/Index_Distal1.obj"/>
      </geometry>
      <material name="">
        <color rgba="0.75294 0.75294 0.75294 1"/>
      </material>
    </visual>
    <visual>
      <origin rpy="0.12 -1.5708 0" xyz="0 0 0"/>
      <geometry>
        <mesh filename="meshes/right/Index_Nail.obj"/>
      </geometry>
      <material name="">
        <color rgba="0.75294 0.75294 0.75294 1"/>
      </material>
    </visual>
  </link>
  <joint name="right_index_distal_flex" type="revolute">
    <origin rpy="0 1.0491E-07 -0.11335" xyz="-0.039743 0.0045244 0.039"/>
    <parent link="right_Index_Proximal-1"/>
    <child link="right_Index_Distal-1"/>
    <axis xyz="0 0 1"/>
    <limit effort="0.1" lower="0" upper="1.5708" velocity="1.5"/>
    <dynamics damping="1" friction="0.1"/>
  </joint>
  <link name="right_dklu-38014-0011-1">
    <inertial>
      <origin rpy="0 0 0" xyz="-0.024029 -0.0049452 0"/>
      <mass value="0.0041212"/>
      <inertia ixx="2.7902E-07" ixy="1.6277E-07" ixz="-5.7383E-11" iyy="6.7481E-07" iyz="-2.5725E-11" izz="7.164E-07"/>
    </inertial>
    <visual>
      <geometry>
        <mesh filename="meshes/right/dklu-38014-0011-1.obj"/>
      </geometry>
      <material name="">
        <color rgba="0.75294 0.75294 0.75294 1"/>
      </material>
    </visual>
  </link>
  <joint name="right_index_cosmesis" type="fixed">
    <parent link="right_Index_Distal-1"/>
    <child link="right_dklu-38014-0011-1"/>
    <axis xyz="0 0 0"/>
  </joint>
  <!-- model MRP differential joint -->
  <link name="right_MRP_Differential">
    <inertial>
      <origin rpy="0 0 0" xyz="0.073068 -0.014703 0.011025"/>
      <mass value="0.0123"/>
      <inertia ixx="1.23E-05" ixy="0" ixz="0" iyy="1.23E-05" iyz="0" izz="1.23E-05"/>
    </inertial>
    <collision>
      <origin rpy="0 0 1.570796" xyz="0 0 0"/>
      <geometry>
        <cylinder length="0.05" radius="0.0090"/>
      </geometry>
    </collision>
    <visual>
      <origin rpy="0 0 1.570796" xyz="0 0 0"/>
      <geometry>
        <cylinder length="0.05" radius="0.0090"/>
      </geometry>
      <material name="">
        <color rgba="0.75294 0.75294 0.75294 1"/>
      </material>
    </visual>
  </link>
  <joint name="right_mrp_differential_flex" type="revolute">
    <origin rpy="1.558 1.3505 -2.6305" xyz="0.0062467 -0.0076872 0.099967"/>
    <parent link="right_Palm-1"/>
    <child link="right_MRP_Differential"/>
    <axis xyz="0 0 1"/>
    <limit effort="0.1" lower="0" upper="1.20455" velocity="1.5"/>
    <dynamics damping="0.255957600625" friction="0.006244210369169999"/>
  </joint>
  <link name="right_Middle_Proximal-1">
    <inertial>
      <origin rpy="0 0 0" xyz="0.074147 -0.0075701 -0.0079751"/>
      <mass value="0.0131"/>
      <inertia ixx="1.31E-05" ixy="0" ixz="0" iyy="1.31E-05" iyz="0" izz="1.31E-05"/>
    </inertial>
    <collision>
      <origin rpy="1.36808 -1.50 -1.4" xyz="-0.02 0.0 0.0"/>
      <geometry>
        <cylinder length="0.06" radius="0.0095"/>
      </geometry>
    </collision>
    <visual>
      <origin rpy="0 -1.5708 0" xyz="0 0 0"/>
      <geometry>
        <mesh filename="meshes/right/Middle_Proximal.obj"/>
      </geometry>
      <material name="">
        <color rgba="0.75294 0.75294 0.75294 1"/>
      </material>
    </visual>
  </link>
  <joint name="right_middle_proximal_flex" type="revolute">
    <origin rpy="-3.7e-05 -7e-06 -0.096814" xyz="0 0 0.019"/>
    <parent link="right_MRP_Differential"/>
    <child link="right_Middle_Proximal-1"/>
    <axis xyz="0 0 1"/>
    <limit effort="0.1" lower="0" upper="1.5708" velocity="1.5"/>
    <dynamics damping="0.09" friction="0.0"/>
  </joint>
  <link name="right_Middle_Ring_Median-1">
    <inertial>
      <origin rpy="0 0 0" xyz="0.11845 -0.0075701 -0.0079751"/>
      <mass value="0.0051"/>
      <inertia ixx="5.1E-06" ixy="0" ixz="0" iyy="5.1E-06" iyz="0" izz="5.1E-06"/>
    </inertial>
    <collision>
      <origin rpy="1.36808 -1.50 -1.3" xyz="-0.015 0.0 -0.0"/>
      <geometry>
        <cylinder length="0.02" radius="0.0085"/>
      </geometry>
    </collision>
    <visual>
      <origin rpy="0.1 -1.5708 0" xyz="0 0 0"/>
      <geometry>
        <mesh filename="meshes/right/MiddleRing_Median.obj"/>
      </geometry>
      <material name="">
        <color rgba="0.75294 0.75294 0.75294 1"/>
      </material>
    </visual>
  </link>
  <joint name="right_middle_median_flex" type="revolute">
    <origin rpy="0 0 0" xyz="-0.0443 0 0"/>
    <parent link="right_Middle_Proximal-1"/>
    <child link="right_Middle_Ring_Median-1"/>
    <axis xyz="0 0 1"/>
    <limit effort="0.1" lower="0" upper="1.5708" velocity="1.5"/>
    <dynamics damping="0.09" friction="0.0"/>
  </joint>
  <link name="right_Middle_Ring_Distal-1">
    <inertial>
      <origin rpy="0 0 0" xyz="0.1427 -0.015269 -0.0079751"/>
      <mass value="0.0035"/>
      <inertia ixx="3.5E-06" ixy="0" ixz="0" iyy="3.5E-06" iyz="0" izz="3.5E-06"/>
    </inertial>
    <collision>
      <origin rpy="1.36808 -1.50 -1.3" xyz="-0.01 -0.0025 -0.0"/>
      <geometry>
        <cylinder length="0.02" radius="0.008"/>
      </geometry>
    </collision>
    <collision>
      <origin rpy="1.36808 -1.50 -1.3" xyz="-0.018 -0.00325 -0.0"/>
      <geometry>
        <sphere radius="0.0075"/>
      </geometry>
    </collision>
    <collision>
      <origin rpy="1.36808 -1.50 -2.8" xyz="-0.019 0.001 -0.0"/>
      <geometry>
        <cylinder length="0.0005" radius="0.0075"/>
      </geometry>
    </collision>
    <visual>
      <origin rpy="0.05 -1.5708 0" xyz="0 0 0"/>
      <geometry>
        <mesh filename="meshes/right/MiddleRing_Distal.obj"/>
      </geometry>
      <material name="">
        <color rgba="0.75294 0.75294 0.75294 1"/>
      </material>
    </visual>
    <visual>
      <origin rpy="0.05 -1.5708 0" xyz="0 0 0"/>
      <geometry>
        <mesh filename="meshes/right/MiddleRing_Nail.obj"/>
      </geometry>
      <material name="">
        <color rgba="0.75294 0.75294 0.75294 1"/>
      </material>
    </visual>
  </link>
  <joint name="right_middle_distal_flex" type="revolute">
    <origin rpy="0 3.0683E-08 0.065184" xyz="-0.024947 -0.0016284 0"/>
    <parent link="right_Middle_Ring_Median-1"/>
    <child link="right_Middle_Ring_Distal-1"/>
    <axis xyz="0 0 1"/>
    <limit effort="0.1" lower="0" upper="1.5708" velocity="1.5"/>
    <dynamics damping="0.09" friction="0.0"/>
  </joint>
  <link name="right_dklu-38015-001-1">
    <inertial>
      <origin rpy="0 0 0" xyz="-0.0102 -0.0015212 -1.2528E-07"/>
      <mass value="0.0023806"/>
      <inertia ixx="1.3264E-07" ixy="4.184E-08" ixz="-1.9193E-12" iyy="2.0245E-07" iyz="3.0185E-12" izz="2.2117E-07"/>
    </inertial>
    <visual>
      <geometry>
        <mesh filename="meshes/right/dklu-38015-001-1.obj"/>
      </geometry>
      <material name="">
        <color rgba="0.75294 0.75294 0.75294 1"/>
      </material>
    </visual>
  </link>
  <joint name="right_middle_cosmesis" type="fixed">
    <parent link="right_Middle_Ring_Distal-1"/>
    <child link="right_dklu-38015-001-1"/>
    <axis xyz="0 0 0"/>
  </joint>
  <link name="right_Ring_Proximal-1">
    <inertial>
      <origin rpy="0 0 0" xyz="0.073068 -0.014703 0.011025"/>
      <mass value="0.0123"/>
      <inertia ixx="1.23E-05" ixy="0" ixz="0" iyy="1.23E-05" iyz="0" izz="1.23E-05"/>
    </inertial>
    <collision>
      <origin rpy="1.36808 -1.50 -1.55" xyz="-0.02 0.0015 -0.0005"/>
      <geometry>
        <cylinder length="0.05" radius="0.0090"/>
      </geometry>
    </collision>
    <visual>
      <origin rpy="-0.1 -1.5708 0" xyz="0 0 0"/>
      <geometry>
        <mesh filename="meshes/right/Ring_Proximal.obj"/>
      </geometry>
      <material name="">
        <color rgba="0.75294 0.75294 0.75294 1"/>
      </material>
    </visual>
  </link>
  <joint name="right_ring_proximal_flex" type="revolute">
    <parent link="right_MRP_Differential"/>
    <child link="right_Ring_Proximal-1"/>
    <axis xyz="0 0 1"/>
    <limit effort="0.1" lower="0" upper="1.5708" velocity="1.5"/>
    <dynamics damping="0.09" friction="0"/>
  </joint>
  <link name="right_Middle_Ring_Median-2">
    <inertial>
      <origin rpy="0 0 0" xyz="0.11244 -0.0049657 0.011025"/>
      <mass value="0.0051"/>
      <inertia ixx="5.1E-06" ixy="0" ixz="0" iyy="5.1E-06" iyz="0" izz="5.1E-06"/>
    </inertial>
    <collision>
      <origin rpy="1.36808 -1.50 -1.2" xyz="-0.015 -0.0015 0.0"/>
      <geometry>
        <cylinder length="0.02" radius="0.0085"/>
      </geometry>
    </collision>
    <visual>
      <origin rpy="0.08 -1.5708 0" xyz="0 -0.001 0"/>
      <geometry>
        <mesh filename="meshes/right/MiddleRing_Median.obj"/>
      </geometry>
      <material name="">
        <color rgba="0.75294 0.75294 0.75294 1"/>
      </material>
    </visual>
  </link>
  <joint name="right_ring_median_flex" type="revolute">
    <origin rpy="0 0 -0.1319" xyz="-0.037739 0.0050068 0"/>
    <parent link="right_Ring_Proximal-1"/>
    <child link="right_Middle_Ring_Median-2"/>
    <axis xyz="0 0 1"/>
    <limit effort="0.1" lower="0" upper="1.5708" velocity="1.5"/>
    <dynamics damping="0.09" friction="0"/>
  </joint>
  <link name="right_Middle_Ring_Distal-2">
    <inertial>
      <origin rpy="0 0 0" xyz="0.13612 -0.017892 0.011025"/>
      <mass value="0.0035"/>
      <inertia ixx="3.5E-06" ixy="0" ixz="0" iyy="3.5E-06" iyz="0" izz="3.5E-06"/>
    </inertial>
    <collision>
      <origin rpy="1.36808 -1.50 -1.3" xyz="-0.01 -0.0025 -0.0"/>
      <geometry>
        <cylinder length="0.02" radius="0.008"/>
      </geometry>
    </collision>
    <collision>
      <origin rpy="1.36808 -1.50 -1.3" xyz="-0.018 -0.00325 -0.0"/>
      <geometry>
        <sphere radius="0.0075"/>
      </geometry>
    </collision>
    <collision>
      <origin rpy="1.36808 -1.50 -2.8" xyz="-0.019 0.001 -0.0"/>
      <geometry>
        <cylinder length="0.0005" radius="0.0075"/>
      </geometry>
    </collision>
    <visual>
      <origin rpy="0.07 -1.5708 0" xyz="0 0 0"/>
      <geometry>
        <mesh filename="meshes/right/MiddleRing_Distal.obj"/>
      </geometry>
      <material name="">
        <color rgba="0.75294 0.75294 0.75294 1"/>
      </material>
    </visual>
    <visual>
      <origin rpy="0.07 -1.5708 0" xyz="0 0 0"/>
      <geometry>
        <mesh filename="meshes/right/MiddleRing_Nail.obj"/>
      </geometry>
      <material name="">
        <color rgba="0.75294 0.75294 0.75294 1"/>
      </material>
    </visual>
  </link>
  <joint name="right_ring_distal_flex" type="revolute">
    <origin rpy="0 3.0683E-08 0.11552" xyz="-0.024833 -0.0028815 0"/>
    <parent link="right_Middle_Ring_Median-2"/>
    <child link="right_Middle_Ring_Distal-2"/>
    <axis xyz="0 0 1"/>
    <limit effort="0.1" lower="0" upper="1.5708" velocity="1.5"/>
    <dynamics damping="0.09" friction="0"/>
  </joint>
  <link name="right_dklu-38016-001-1">
    <inertial>
      <origin rpy="0 0 0" xyz="-0.011035 -0.0023855 -7.4384E-07"/>
      <mass value="0.0021229"/>
      <inertia ixx="1.1361E-07" ixy="2.6668E-08" ixz="4.3208E-12" iyy="1.5957E-07" iyz="4.1285E-12" izz="1.7245E-07"/>
    </inertial>
    <visual>
      <geometry>
        <mesh filename="meshes/right/dklu-38016-001-1.obj"/>
      </geometry>
      <material name="">
        <color rgba="0.75294 0.75294 0.75294 1"/>
      </material>
    </visual>
  </link>
  <joint name="right_ring_cosmesis" type="fixed">
    <parent link="right_Middle_Ring_Distal-2"/>
    <child link="right_dklu-38016-001-1"/>
    <axis xyz="0 0 0"/>
  </joint>
  <link name="right_Pinky_Proximal-1">
    <inertial>
      <origin rpy="0 0 0" xyz="0.073989 -0.0089825 0.030025"/>
      <mass value="0.0102"/>
      <inertia ixx="1.02E-05" ixy="0" ixz="0" iyy="1.02E-05" iyz="0" izz="1.02E-05"/>
    </inertial>
    <collision>
      <origin rpy="1.36808 -1.50 -1.4" xyz="-0.0175 0.0 0.0"/>
      <geometry>
        <cylinder length="0.025" radius="0.0085"/>
      </geometry>
    </collision>
    <visual>
      <origin rpy="0 -1.5708 0" xyz="0 0 0"/>
      <geometry>
        <mesh filename="meshes/right/Pinky_Proximal.obj"/>
      </geometry>
      <material name="">
        <color rgba="0.75294 0.75294 0.75294 1"/>
      </material>
    </visual>
  </link>
  <joint name="right_pinky_proximal_flex" type="revolute">
    <origin rpy="-1.1e-05 -1.6e-05 -0.07771" xyz="1e-06 -1e-06 -0.019001"/>
    <parent link="right_MRP_Differential"/>
    <child link="right_Pinky_Proximal-1"/>
    <axis xyz="0 0 1"/>
    <limit effort="0.1" lower="0" upper="1.5708" velocity="1.5"/>
    <dynamics damping="0.05" friction="0"/>
  </joint>
  <link name="right_Pinky_Distal-1">
    <inertial>
      <origin rpy="0 0 0" xyz="0.10199 -0.0089825 0.030025"/>
      <mass value="0.0045"/>
      <inertia ixx="4.5E-06" ixy="0" ixz="0" iyy="4.5E-06" iyz="0" izz="4.5E-06"/>
    </inertial>
    <collision>
      <origin rpy="1.36808 -1.50 -1.3" xyz="-0.008 -0.0035 -0.0"/>
      <geometry>
        <cylinder length="0.019" radius="0.008"/>
      </geometry>
    </collision>
    <collision>
      <origin rpy="1.36808 -1.50 -1.15" xyz="-0.025 -0.0075 -0.0"/>
      <geometry>
        <cylinder length="0.019" radius="0.007"/>
      </geometry>
    </collision>
    <collision>
      <origin rpy="1.36808 -1.50 -0.8" xyz="-0.033 -0.01005 -0.0"/>
      <geometry>
        <sphere radius="0.007"/>
      </geometry>
    </collision>
    <collision>
      <origin rpy="1.36808 -1.50 -2.5" xyz="-0.035 -0.007 -0.0"/>
      <geometry>
        <cylinder length="0.0005" radius="0.0065"/>
      </geometry>
    </collision>
    <visual>
      <origin rpy="0.13 -1.5708 0" xyz="0 0 0"/>
      <geometry>
        <mesh filename="meshes/right/Pinky_Distal0.obj"/>
      </geometry>
      <material name="">
        <color rgba="0.75294 0.75294 0.75294 1"/>
      </material>
    </visual>
    <visual>
      <origin rpy="0.13 -1.5708 0" xyz="0 0 0"/>
      <geometry>
        <mesh filename="meshes/right/Pinky_Distal1.obj"/>
      </geometry>
      <material name="">
        <color rgba="0.75294 0.75294 0.75294 1"/>
      </material>
    </visual>
    <visual>
      <origin rpy="0.13 -1.5708 0" xyz="0 0 0"/>
      <geometry>
        <mesh filename="meshes/right/Pinky_Nail.obj"/>
      </geometry>
      <material name="">
        <color rgba="0.75294 0.75294 0.75294 1"/>
      </material>
    </visual>
  </link>
  <joint name="right_pinky_distal_flex" type="revolute">
    <origin rpy="0 0 0" xyz="-0.028 0 0"/>
    <parent link="right_Pinky_Proximal-1"/>
    <child link="right_Pinky_Distal-1"/>
    <axis xyz="0 0 1"/>
    <limit effort="0.1" lower="0" upper="1.5708" velocity="1.5"/>
    <dynamics damping="0.05" friction="0"/>
  </joint>
  <link name="right_dklu-38017-001-1">
    <inertial>
      <origin rpy="0 0 0" xyz="-0.018718 -0.0049845 -2.4964E-07"/>
      <mass value="0.003237"/>
      <inertia ixx="2.1873E-07" ixy="1.2176E-07" ixz="9.5436E-12" iyy="4.7488E-07" iyz="2.3028E-12" izz="5.1862E-07"/>
    </inertial>
    <visual>
      <geometry>
        <mesh filename="meshes/right/dklu-38017-001-1.obj"/>
      </geometry>
      <material name="">
        <color rgba="0.75294 0.75294 0.75294 1"/>
      </material>
    </visual>
  </link>
  <joint name="right_pinky_cosmesis" type="fixed">
    <parent link="right_Pinky_Distal-1"/>
    <child link="right_dklu-38017-001-1"/>
    <axis xyz="0 0 0"/>
  </joint>
  <!-- <gazebo>
      gearbox needs to work when parent/child is reversed
    <joint name="middle_outer" type="gearbox">
      <parent>Middle_Proximal-1</parent>
      <child>Middle_Ring_Distal-1</child>
      <gearbox_reference_body>Middle_Ring_Median-1</gearbox_reference_body>
      <gearbox_ratio>-1.0</gearbox_ratio>
      <axis>
        <xyz>1 1 1</xyz>
      </axis>
      <axis2>
        <xyz>1 1 1</xyz>
      </axis2>
    </joint>
    <joint name="middle_inner" type="gearbox">
      <parent>MRP_Differential</parent>
      <child>Middle_Ring_Median-1</child>
      <gearbox_ratio>-1.0</gearbox_ratio>
      <gearbox_reference_body>Middle_Proximal-1</gearbox_reference_body>
      <axis>
        <xyz>0.036469 0.978869 0.20121</xyz>
      </axis>
      <axis2>
        <xyz>0.036469 0.978869 0.20121</xyz>
      </axis2>
    </joint>
    </gazebo> -->
  <!-- Mod -->
  <transmission name="right_tran_thumb_yaw" type="SimpleTransmission">
    <type>transmission_interface/SimpleTransmission</type>
    <joint name="right_thumb_yaw">
      <hardwareInterface>hardware_interface/PositionJointInterface</hardwareInterface>
    </joint>
    <actuator name="right_motor_thumb_yaw">
      <mechanicalReduction>1</mechanicalReduction>
    </actuator>
  </transmission>
  <transmission name="right_tran_thumb_pitch" type="SimpleTransmission">
    <type>transmission_interface/SimpleTransmission</type>
    <joint name="right_thumb_pitch">
      <hardwareInterface>hardware_interface/PositionJointInterface</hardwareInterface>
    </joint>
    <actuator name="right_motor_thumb_pitch">
      <mechanicalReduction>1</mechanicalReduction>
    </actuator>
  </transmission>
  <transmission name="right_tran_index_proximal_flex" type="SimpleTransmission">
    <type>transmission_interface/SimpleTransmission</type>
    <joint name="right_index_proximal_flex">
      <hardwareInterface>hardware_interface/PositionJointInterface</hardwareInterface>
    </joint>
    <actuator name="right_motor_index_proximal_flex">
      <mechanicalReduction>1</mechanicalReduction>
    </actuator>
  </transmission>
  <transmission name="right_tran_index_distal_flex" type="SimpleTransmission">
    <type>transmission_interface/SimpleTransmission</type>
    <joint name="right_index_distal_flex">
      <hardwareInterface>hardware_interface/PositionJointInterface</hardwareInterface>
    </joint>
    <actuator name="right_motor_index_distal_flex">
      <mechanicalReduction>1</mechanicalReduction>
    </actuator>
  </transmission>
  <transmission name="right_tran_mrp_differential_flex" type="SimpleTransmission">
    <type>transmission_interface/SimpleTransmission</type>
    <joint name="right_mrp_differential_flex">
      <hardwareInterface>hardware_interface/PositionJointInterface</hardwareInterface>
    </joint>
    <actuator name="right_motor_mrp_differential_flex">
      <mechanicalReduction>1</mechanicalReduction>
    </actuator>
  </transmission>
  <transmission name="right_tran_middle_proximal_flex" type="SimpleTransmission">
    <type>transmission_interface/SimpleTransmission</type>
    <joint name="right_middle_proximal_flex">
      <hardwareInterface>hardware_interface/PositionJointInterface</hardwareInterface>
    </joint>
    <actuator name="right_motor_middle_proximal_flex">
      <mechanicalReduction>1</mechanicalReduction>
    </actuator>
  </transmission>
  <transmission name="right_tran_middle_median_flex" type="SimpleTransmission">
    <type>transmission_interface/SimpleTransmission</type>
    <joint name="right_middle_median_flex">
      <hardwareInterface>hardware_interface/PositionJointInterface</hardwareInterface>
    </joint>
    <actuator name="right_motor_middle_median_flex">
      <mechanicalReduction>1</mechanicalReduction>
    </actuator>
  </transmission>
  <transmission name="right_tran_middle_distal_flex" type="SimpleTransmission">
    <type>transmission_interface/SimpleTransmission</type>
    <joint name="right_middle_distal_flex">
      <hardwareInterface>hardware_interface/PositionJointInterface</hardwareInterface>
    </joint>
    <actuator name="right_motor_middle_distal_flex">
      <mechanicalReduction>1</mechanicalReduction>
    </actuator>
  </transmission>
  <transmission name="right_tran_ring_proximal_flex" type="SimpleTransmission">
    <type>transmission_interface/SimpleTransmission</type>
    <joint name="right_ring_proximal_flex">
      <hardwareInterface>hardware_interface/PositionJointInterface</hardwareInterface>
    </joint>
    <actuator name="right_motor_ring_proximal_flex">
      <mechanicalReduction>1</mechanicalReduction>
    </actuator>
  </transmission>
  <transmission name="right_tran_ring_median_flex" type="SimpleTransmission">
    <type>transmission_interface/SimpleTransmission</type>
    <joint name="right_ring_median_flex">
      <hardwareInterface>hardware_interface/PositionJointInterface</hardwareInterface>
    </joint>
    <actuator name="right_motor_ring_median_flex">
      <mechanicalReduction>1</mechanicalReduction>
    </actuator>
  </transmission>
  <transmission name="right_tran_ring_distal_flex" type="SimpleTransmission">
    <type>transmission_interface/SimpleTransmission</type>
    <joint name="right_ring_distal_flex">
      <hardwareInterface>hardware_interface/PositionJointInterface</hardwareInterface>
    </joint>
    <actuator name="right_motor_ring_distal_flex">
      <mechanicalReduction>1</mechanicalReduction>
    </actuator>
  </transmission>
  <transmission name="right_tran_pinky_proximal_flex" type="SimpleTransmission">
    <type>transmission_interface/SimpleTransmission</type>
    <joint name="right_pinky_proximal_flex">
      <hardwareInterface>hardware_interface/PositionJointInterface</hardwareInterface>
    </joint>
    <actuator name="right_motor_pinky_proximal_flex">
      <mechanicalReduction>1</mechanicalReduction>
    </actuator>
  </transmission>
  <transmission name="right_tran_pinky_distal_flex" type="SimpleTransmission">
    <type>transmission_interface/SimpleTransmission</type>
    <joint name="right_pinky_distal_flex">
      <hardwareInterface>hardware_interface/PositionJointInterface</hardwareInterface>
    </joint>
    <actuator name="right_motor_pinky_distal_flex">
      <mechanicalReduction>1</mechanicalReduction>
    </actuator>
  </transmission>
  <gazebo reference="right_WR_Base-1">
    <!-- <selfCollide>1</selfCollide> -->
    <collision>
      <max_contacts>4</max_contacts>
      <surface>
        <contact>
          <ode>
            <kp>1e+06</kp>
            <kd>100</kd>
            <max_vel>100</max_vel>
            <min_depth>0.001</min_depth>
          </ode>
        </contact>
        <friction>
          <ode>
            <mu>1</mu>
            <mu2>1</mu2>
          </ode>
        </friction>
      </surface>
    </collision>
    <visual>
      <material>
        <ambient> 0.5 0.5 0.5 1.0</ambient>
        <diffuse> 0.5 0.5 0.5 1.0</diffuse>
        <specular>0.5 0.5 0.5 0.8</specular>
      </material>
    </visual>
  </gazebo>
  <gazebo reference="right_wrist_rot">
    <implicitSpringDamper>1</implicitSpringDamper>
  </gazebo>
  <gazebo reference="right_wrist_ab_ad">
    <implicitSpringDamper>1</implicitSpringDamper>
  </gazebo>
  <gazebo reference="right_wrist_flex">
    <implicitSpringDamper>1</implicitSpringDamper>
  </gazebo>
  <gazebo reference="right_thumb_yaw">
    <implicitSpringDamper>1</implicitSpringDamper>
    <stopCfm>0.1</stopCfm>
    <stopErp>0.5</stopErp>
  </gazebo>
  <gazebo reference="right_thumb_pitch">
    <implicitSpringDamper>1</implicitSpringDamper>
    <stopCfm>0.1</stopCfm>
    <stopErp>0.5</stopErp>
  </gazebo>
  <gazebo reference="right_index_proximal_flex">
    <implicitSpringDamper>1</implicitSpringDamper>
    <stopCfm>0.1</stopCfm>
    <stopErp>0.5</stopErp>
  </gazebo>
  <gazebo reference="right_index_distal_flex">
    <implicitSpringDamper>1</implicitSpringDamper>
    <stopCfm>0.1</stopCfm>
    <stopErp>0.2</stopErp>
  </gazebo>
  <gazebo reference="right_mrp_differential_flex">
    <implicitSpringDamper>1</implicitSpringDamper>
    <stopCfm>0.1</stopCfm>
    <stopErp>0.2</stopErp>
    <!-- stiff spring
      <springReference>0</springReference>
      <springStiffness>0.01</springStiffness>
      -->
  </gazebo>
  <gazebo reference="right_middle_proximal_flex">
    <implicitSpringDamper>1</implicitSpringDamper>
    <stopCfm>0.1</stopCfm>
    <stopErp>0.5</stopErp>
    <springReference>-1.5708</springReference>
    <springStiffness>0.00636619772</springStiffness>
  </gazebo>
  <gazebo reference="right_middle_median_flex">
    <implicitSpringDamper>1</implicitSpringDamper>
    <stopCfm>0.1</stopCfm>
    <stopErp>0.3</stopErp>
  </gazebo>
  <gazebo reference="right_middle_distal_flex">
    <implicitSpringDamper>1</implicitSpringDamper>
    <stopCfm>0.1</stopCfm>
    <stopErp>0.2</stopErp>
  </gazebo>
  <gazebo reference="right_ring_proximal_flex">
    <implicitSpringDamper>1</implicitSpringDamper>
    <stopCfm>0.1</stopCfm>
    <stopErp>0.5</stopErp>
    <springReference>-1.5708</springReference>
    <springStiffness>0.00636619772</springStiffness>
  </gazebo>
  <gazebo reference="right_ring_median_flex">
    <implicitSpringDamper>1</implicitSpringDamper>
    <stopCfm>0.1</stopCfm>
    <stopErp>0.3</stopErp>
  </gazebo>
  <gazebo reference="right_ring_distal_flex">
    <implicitSpringDamper>1</implicitSpringDamper>
    <stopCfm>0.1</stopCfm>
    <stopErp>0.2</stopErp>
  </gazebo>
  <gazebo reference="right_pinky_proximal_flex">
    <implicitSpringDamper>1</implicitSpringDamper>
    <stopCfm>0.1</stopCfm>
    <stopErp>0.5</stopErp>
    <springReference>-1.5708</springReference>
    <springStiffness>0.00636619772</springStiffness>
  </gazebo>
  <gazebo reference="right_pinky_distal_flex">
    <implicitSpringDamper>1</implicitSpringDamper>
    <stopCfm>0.1</stopCfm>
    <stopErp>0.2</stopErp>
  </gazebo>
  <gazebo reference="right_WR_Forearm-1">
    <!-- <selfCollide>1</selfCollide> -->
    <collision>
      <max_contacts>4</max_contacts>
      <surface>
        <contact>
          <ode>
            <kp>1e+06</kp>
            <kd>100</kd>
            <max_vel>100</max_vel>
            <min_depth>0.001</min_depth>
          </ode>
        </contact>
        <friction>
          <ode>
            <mu>1</mu>
            <mu2>1</mu2>
          </ode>
        </friction>
      </surface>
    </collision>
    <visual>
      <material>
        <ambient> 0.6 0.6 0.6 1.0</ambient>
        <diffuse> 0.6 0.6 0.6 1.0</diffuse>
        <specular>0.6 0.6 0.6 0.8</specular>
      </material>
    </visual>
  </gazebo>
  <gazebo reference="right_WFD_Gearbox-1">
    <!-- <selfCollide>1</selfCollide> -->
    <collision>
      <max_contacts>1</max_contacts>
      <surface>
        <contact>
          <ode>
            <kp>1e+06</kp>
            <kd>100</kd>
            <max_vel>100</max_vel>
            <min_depth>0.001</min_depth>
          </ode>
        </contact>
        <friction>
          <ode>
            <mu>1</mu>
            <mu2>1</mu2>
          </ode>
        </friction>
      </surface>
    </collision>
    <visual>
      <material>
        <ambient> 0.4 0.4 0.4 1.0</ambient>
        <diffuse> 0.4 0.4 0.4 1.0</diffuse>
        <specular>0.4 0.4 0.4 0.8</specular>
      </material>
    </visual>
  </gazebo>
  <gazebo reference="right_Palm-1">
    <!-- <selfCollide>1</selfCollide> -->
    <collision>
      <max_contacts>4</max_contacts>
      <surface>
        <contact>
          <ode>
            <kp>1e+06</kp>
            <kd>100</kd>
            <max_vel>100</max_vel>
            <min_depth>0.001</min_depth>
          </ode>
        </contact>
        <friction>
          <ode>
            <mu>1</mu>
            <mu2>1</mu2>
          </ode>
        </friction>
      </surface>
    </collision>
    <visual>
      <material>
        <ambient> 0.8 0.8 0.8 0.6</ambient>
        <diffuse> 0.8 0.8 0.8 1.0</diffuse>
        <specular>0.8 0.8 0.8 0.3</specular>
      </material>
    </visual>
  </gazebo>
  <gazebo reference="right_Thumb_Gear-1">
    <!-- <selfCollide>1</selfCollide> -->
    <collision>
      <max_contacts>2</max_contacts>
      <surface>
        <contact>
          <ode>
            <kp>1e+06</kp>
            <kd>100</kd>
            <max_vel>100</max_vel>
            <min_depth>0.001</min_depth>
          </ode>
        </contact>
        <friction>
          <ode>
            <mu>1</mu>
            <mu2>1</mu2>
          </ode>
        </friction>
      </surface>
    </collision>
    <visual>
      <material>
        <ambient> 0.6 0.6 0.6 0.6</ambient>
        <diffuse> 0.6 0.6 0.6 1.0</diffuse>
        <specular>0.6 0.6 0.6 0.3</specular>
      </material>
    </visual>
  </gazebo>
  <gazebo reference="right_Distal_Thumb-1">
    <selfCollide>1</selfCollide>
    <collision>
      <max_contacts>2</max_contacts>
      <surface>
        <contact>
          <ode>
            <kp>1e+06</kp>
            <kd>100</kd>
            <max_vel>100</max_vel>
            <min_depth>0.001</min_depth>
          </ode>
        </contact>
        <friction>
          <ode>
            <mu>1</mu>
            <mu2>1</mu2>
          </ode>
        </friction>
      </surface>
    </collision>
    <visual>
      <material>
        <ambient> 0.7 0.7 0.7 0.6</ambient>
        <diffuse> 0.7 0.7 0.7 1.0</diffuse>
        <specular>0.7 0.7 0.7 0.3</specular>
      </material>
    </visual>
  </gazebo>
  <gazebo reference="right_dklu-38013-001">
    <selfCollide>1</selfCollide>
    <collision>
      <max_contacts>2</max_contacts>
      <surface>
        <contact>
          <poissons_ratio>0.495</poissons_ratio>
          <elastic_modulus>610000.0</elastic_modulus>
          <ode>
            <kp>1e+06</kp>
            <kd>100</kd>
            <max_vel>100</max_vel>
            <min_depth>0.001</min_depth>
          </ode>
        </contact>
        <friction>
          <torsional>
            <coefficient>1.0</coefficient>
            <use_patch_radius>0</use_patch_radius>
            <surface_radius>0.0072</surface_radius>
          </torsional>
          <ode>
            <mu>1</mu>
            <mu2>1</mu2>
          </ode>
        </friction>
      </surface>
    </collision>
    <visual>
      <material>
        <ambient> 0.8 0.8 0.8 0.1</ambient>
        <diffuse> 0.8 0.8 0.8 1.0</diffuse>
        <specular>0.8 0.8 0.8 0.1</specular>
      </material>
    </visual>
  </gazebo>
  <gazebo reference="right_Index_Proximal-1">
    <selfCollide>1</selfCollide>
    <collision>
      <max_contacts>2</max_contacts>
      <surface>
        <contact>
          <ode>
            <kp>1e+06</kp>
            <kd>100</kd>
            <max_vel>100</max_vel>
            <min_depth>0.001</min_depth>
          </ode>
        </contact>
        <friction>
          <ode>
            <mu>1</mu>
            <mu2>1</mu2>
          </ode>
        </friction>
      </surface>
    </collision>
    <visual>
      <material>
        <ambient> 0.7 0.7 0.7 0.8</ambient>
        <diffuse> 0.7 0.7 0.7 1.0</diffuse>
        <specular>0.7 0.7 0.7 0.1</specular>
      </material>
    </visual>
  </gazebo>
  <gazebo reference="right_Index_Distal-1">
    <selfCollide>1</selfCollide>
    <collision>
      <max_contacts>2</max_contacts>
      <surface>
        <contact>
          <ode>
            <kp>1e+06</kp>
            <kd>100</kd>
            <max_vel>100</max_vel>
            <min_depth>0.001</min_depth>
          </ode>
        </contact>
        <friction>
          <ode>
            <mu>1</mu>
            <mu2>1</mu2>
          </ode>
        </friction>
      </surface>
    </collision>
    <visual>
      <material>
        <ambient> 0.7 0.7 0.7 0.8</ambient>
        <diffuse> 0.7 0.7 0.7 1.0</diffuse>
        <specular>0.7 0.7 0.7 0.1</specular>
      </material>
    </visual>
  </gazebo>
  <gazebo reference="right_dklu-38014-0011-1">
    <selfCollide>1</selfCollide>
    <collision>
      <max_contacts>1</max_contacts>
      <surface>
        <contact>
          <poissons_ratio>0.495</poissons_ratio>
          <elastic_modulus>610000.0</elastic_modulus>
          <ode>
            <kp>1e+06</kp>
            <kd>100</kd>
            <max_vel>100</max_vel>
            <min_depth>0.001</min_depth>
          </ode>
        </contact>
        <friction>
          <torsional>
            <coefficient>1.0</coefficient>
            <use_patch_radius>0</use_patch_radius>
            <surface_radius>0.0072</surface_radius>
          </torsional>
          <ode>
            <mu>1</mu>
            <mu2>1</mu2>
          </ode>
        </friction>
      </surface>
    </collision>
    <visual>
      <material>
        <ambient> 0.8 0.8 0.8 0.1</ambient>
        <diffuse> 0.8 0.8 0.8 1.0</diffuse>
        <specular>0.8 0.8 0.8 0.1</specular>
      </material>
    </visual>
  </gazebo>
  <gazebo reference="right_Middle_Proximal-1">
    <selfCollide>1</selfCollide>
    <collision>
      <max_contacts>2</max_contacts>
      <surface>
        <contact>
          <ode>
            <kp>1e+06</kp>
            <kd>100</kd>
            <max_vel>100</max_vel>
            <min_depth>0.001</min_depth>
          </ode>
        </contact>
        <friction>
          <ode>
            <mu>1</mu>
            <mu2>1</mu2>
          </ode>
        </friction>
      </surface>
    </collision>
    <visual>
      <material>
        <ambient> 0.6 0.6 0.6 0.8</ambient>
        <diffuse> 0.6 0.6 0.6 1.0</diffuse>
        <specular>0.6 0.6 0.6 0.1</specular>
      </material>
    </visual>
  </gazebo>
  <gazebo reference="right_Middle_Ring_Median-1">
    <selfCollide>1</selfCollide>
    <collision>
      <max_contacts>2</max_contacts>
      <surface>
        <contact>
          <ode>
            <kp>1e+06</kp>
            <kd>100</kd>
            <max_vel>100</max_vel>
            <min_depth>0.001</min_depth>
          </ode>
        </contact>
        <friction>
          <ode>
            <mu>1</mu>
            <mu2>1</mu2>
          </ode>
        </friction>
      </surface>
    </collision>
    <visual>
      <material>
        <ambient> 0.5 0.5 0.5 0.8</ambient>
        <diffuse> 0.5 0.5 0.5 1.0</diffuse>
        <specular>0.5 0.5 0.5 0.1</specular>
      </material>
    </visual>
  </gazebo>
  <gazebo reference="right_Middle_Ring_Distal-1">
    <selfCollide>1</selfCollide>
    <collision>
      <max_contacts>2</max_contacts>
      <surface>
        <contact>
          <ode>
            <kp>1e+06</kp>
            <kd>100</kd>
            <max_vel>100</max_vel>
            <min_depth>0.001</min_depth>
          </ode>
        </contact>
        <friction>
          <ode>
            <mu>1</mu>
            <mu2>1</mu2>
          </ode>
        </friction>
      </surface>
    </collision>
    <visual>
      <material>
        <ambient> 0.7 0.7 0.7 0.8</ambient>
        <diffuse> 0.7 0.7 0.7 1.0</diffuse>
        <specular>0.7 0.7 0.7 0.1</specular>
      </material>
    </visual>
  </gazebo>
  <gazebo reference="right_dklu-38015-001-1">
    <selfCollide>1</selfCollide>
    <collision>
      <max_contacts>1</max_contacts>
      <surface>
        <contact>
          <poissons_ratio>0.495</poissons_ratio>
          <elastic_modulus>610000.0</elastic_modulus>
          <ode>
            <kp>1e+06</kp>
            <kd>100</kd>
            <max_vel>100</max_vel>
            <min_depth>0.001</min_depth>
          </ode>
        </contact>
        <friction>
          <torsional>
            <coefficient>1.0</coefficient>
            <use_patch_radius>0</use_patch_radius>
            <surface_radius>0.0072</surface_radius>
          </torsional>
          <ode>
            <mu>1</mu>
            <mu2>1</mu2>
          </ode>
        </friction>
      </surface>
    </collision>
    <visual>
      <material>
        <ambient> 0.8 0.8 0.8 0.1</ambient>
        <diffuse> 0.8 0.8 0.8 1.0</diffuse>
        <specular>0.8 0.8 0.8 0.1</specular>
      </material>
    </visual>
  </gazebo>
  <gazebo reference="right_Ring_Proximal-1">
    <selfCollide>1</selfCollide>
    <collision>
      <max_contacts>2</max_contacts>
      <surface>
        <contact>
          <ode>
            <kp>1e+06</kp>
            <kd>100</kd>
            <max_vel>100</max_vel>
            <min_depth>0.001</min_depth>
          </ode>
        </contact>
        <friction>
          <ode>
            <mu>1</mu>
            <mu2>1</mu2>
          </ode>
        </friction>
      </surface>
    </collision>
    <visual>
      <material>
        <ambient> 0.7 0.7 0.7 0.8</ambient>
        <diffuse> 0.7 0.7 0.7 1.0</diffuse>
        <specular>0.7 0.7 0.7 0.1</specular>
      </material>
    </visual>
  </gazebo>
  <gazebo reference="right_Middle_Ring_Median-2">
    <selfCollide>1</selfCollide>
    <collision>
      <max_contacts>2</max_contacts>
      <surface>
        <contact>
          <ode>
            <kp>1e+06</kp>
            <kd>100</kd>
            <max_vel>100</max_vel>
            <min_depth>0.001</min_depth>
          </ode>
        </contact>
        <friction>
          <ode>
            <mu>1</mu>
            <mu2>1</mu2>
          </ode>
        </friction>
      </surface>
    </collision>
    <visual>
      <material>
        <ambient> 0.6 0.6 0.6 0.8</ambient>
        <diffuse> 0.6 0.6 0.6 1.0</diffuse>
        <specular>0.6 0.6 0.6 0.1</specular>
      </material>
    </visual>
  </gazebo>
  <gazebo reference="right_Middle_Ring_Distal-2">
    <selfCollide>1</selfCollide>
    <collision>
      <max_contacts>2</max_contacts>
      <surface>
        <contact>
          <ode>
            <kp>1e+06</kp>
            <kd>100</kd>
            <max_vel>100</max_vel>
            <min_depth>0.001</min_depth>
          </ode>
        </contact>
        <friction>
          <ode>
            <mu>1</mu>
            <mu2>1</mu2>
          </ode>
        </friction>
      </surface>
    </collision>
    <visual>
      <material>
        <ambient> 0.7 0.7 0.7 0.8</ambient>
        <diffuse> 0.7 0.7 0.7 1.0</diffuse>
        <specular>0.7 0.7 0.7 0.1</specular>
      </material>
    </visual>
  </gazebo>
  <gazebo reference="right_dklu-38016-001-1">
    <selfCollide>1</selfCollide>
    <collision>
      <max_contacts>1</max_contacts>
      <surface>
        <contact>
          <poissons_ratio>0.495</poissons_ratio>
          <elastic_modulus>610000.0</elastic_modulus>
          <ode>
            <kp>1e+06</kp>
            <kd>100</kd>
            <max_vel>100</max_vel>
            <min_depth>0.001</min_depth>
          </ode>
        </contact>
        <friction>
          <torsional>
            <coefficient>1.0</coefficient>
            <use_patch_radius>0</use_patch_radius>
            <surface_radius>0.0072</surface_radius>
          </torsional>
          <ode>
            <mu>1</mu>
            <mu2>1</mu2>
          </ode>
        </friction>
      </surface>
    </collision>
    <visual>
      <material>
        <ambient> 0.8 0.8 0.8 0.1</ambient>
        <diffuse> 0.8 0.8 0.8 1.0</diffuse>
        <specular>0.8 0.8 0.8 0.1</specular>
      </material>
    </visual>
  </gazebo>
  <gazebo reference="right_Pinky_Proximal-1">
    <selfCollide>1</selfCollide>
    <collision>
      <max_contacts>2</max_contacts>
      <surface>
        <contact>
          <ode>
            <kp>1e+06</kp>
            <kd>100</kd>
            <max_vel>100</max_vel>
            <min_depth>0.001</min_depth>
          </ode>
        </contact>
        <friction>
          <ode>
            <mu>1</mu>
            <mu2>1</mu2>
          </ode>
        </friction>
      </surface>
    </collision>
    <visual>
      <material>
        <ambient> 0.6 0.6 0.6 0.8</ambient>
        <diffuse> 0.6 0.6 0.6 1.0</diffuse>
        <specular>0.6 0.6 0.6 0.1</specular>
      </material>
    </visual>
  </gazebo>
  <gazebo reference="right_Pinky_Distal-1">
    <selfCollide>1</selfCollide>
    <collision>
      <max_contacts>2</max_contacts>
      <surface>
        <contact>
          <ode>
            <kp>1e+06</kp>
            <kd>100</kd>
            <max_vel>100</max_vel>
            <min_depth>0.001</min_depth>
          </ode>
        </contact>
        <friction>
          <ode>
            <mu>1</mu>
            <mu2>1</mu2>
          </ode>
        </friction>
      </surface>
    </collision>
    <visual>
      <material>
        <ambient> 0.7 0.7 0.7 0.8</ambient>
        <diffuse> 0.7 0.7 0.7 1.0</diffuse>
        <specular>0.7 0.7 0.7 0.1</specular>
      </material>
    </visual>
  </gazebo>
  <gazebo reference="right_dklu-38017-001-1">
    <selfCollide>1</selfCollide>
    <collision>
      <max_contacts>1</max_contacts>
      <surface>
        <contact>
          <poissons_ratio>0.495</poissons_ratio>
          <elastic_modulus>610000.0</elastic_modulus>
          <ode>
            <kp>1e+06</kp>
            <kd>100</kd>
            <max_vel>100</max_vel>
            <min_depth>0.001</min_depth>
          </ode>
        </contact>
        <friction>
          <torsional>
            <coefficient>1.0</coefficient>
            <use_patch_radius>0</use_patch_radius>
            <surface_radius>0.0072</surface_radius>
          </torsional>
          <ode>
            <mu>1</mu>
            <mu2>1</mu2>
          </ode>
        </friction>
      </surface>
    </collision>
    <visual>
      <material>
        <ambient> 0.8 0.8 0.8 0.1</ambient>
        <diffuse> 0.8 0.8 0.8 1.0</diffuse>
        <specular>0.8 0.8 0.8 0.1</specular>
      </material>
    </visual>
  </gazebo>
  <gazebo reference="right_Distal_Thumb-1">
    <sensor name="right_thumb_distal_ulnar_contact_sensor" type="contact">
      <always_on>1</always_on>
      <contact>
        <!-- these collision names make more sense after parsing to SDF -->
        <!--<collision>Distal_Thumb-1_collision</collision>-->
        <collision>right_Distal_Thumb-1_collision_11</collision>
        <topic>right_Distal_Ulnar_Thumb-1_collision</topic>
      </contact>
    </sensor>
    <sensor name="right_thumb_distal_dorsal_contact_sensor" type="contact">
      <always_on>1</always_on>
      <contact>
        <!-- these collision names make more sense after parsing to SDF -->
        <collision>right_Distal_Thumb-1_collision_7</collision>
        <topic>right_Distal_Dorsal_Thumb-1_collision</topic>
      </contact>
    </sensor>
    <sensor name="right_thumb_distal_contact_sensor" type="contact">
      <always_on>1</always_on>
      <contact>
        <!-- these collision names make more sense after parsing to SDF -->
        <collision>right_Distal_Thumb-1_collision_9</collision>
        <collision>right_Distal_Thumb-1_collision_10</collision>
        <topic>right_Distal_Thumb-1_collision</topic>
      </contact>
    </sensor>
    <sensor name="right_thumb_distal_side_contact_sensor" type="contact">
      <always_on>1</always_on>
      <contact>
        <!-- these collision names make more sense after parsing to SDF -->
        <collision>right_Distal_Thumb-1_collision_12</collision>
        <!-- extend copied to side-->
        <!--<collision>Distal_Thumb-1_collision_9</collision>  extend copied to side-->
        <topic>right_Distal_Thumb-1_side_collision</topic>
      </contact>
    </sensor>
    <sensor name="right_Distal_Thumb-1_imu_sensor" type="imu">
      <pose>0 0 0  1.570796 -1.570796 0</pose>
      <always_on>1</always_on>
      <update_rate>1000</update_rate>
      <imu>
        <noise>
          <type>gaussian</type>
          <rate>
            <mean>0</mean>
            <stddev>0.0002</stddev>
            <bias_mean>7.5e-06</bias_mean>
            <bias_stddev>8e-07</bias_stddev>
          </rate>
          <accel>
            <mean>0</mean>
            <stddev>0.017</stddev>
            <bias_mean>0.1</bias_mean>
            <bias_stddev>0.001</bias_stddev>
          </accel>
        </noise>
      </imu>
    </sensor>
  </gazebo>
  <gazebo reference="right_Index_Proximal-1">
    <sensor name="right_index_proximal_contact_sensor" type="contact">
      <always_on>1</always_on>
      <contact>
        <!-- these collision names make more sense after parsing to SDF -->
        <collision>right_Index_Proximal-1_collision</collision>
        <topic>right_Index_Proximal-1_collision</topic>
      </contact>
    </sensor>
  </gazebo>
  <gazebo reference="right_Index_Distal-1">
    <sensor name="right_index_distal_contact_sensor" type="contact">
      <always_on>1</always_on>
      <contact>
        <!-- these collision names make more sense after parsing to SDF -->
        <collision>right_Index_Distal-1_collision</collision>
        <collision>right_Index_Distal-1_collision_1</collision>
        <collision>right_Index_Distal-1_collision_2</collision>
        <!-- extend -->
        <topic>right_Index_Distal-1_collision</topic>
      </contact>
    </sensor>
  </gazebo>
  <gazebo reference="right_Index_Distal-1">
    <sensor name="right_index_distal_side_contact_sensor" type="contact">
      <always_on>1</always_on>
      <contact>
        <!-- these collision names make more sense after parsing to SDF -->
        <collision>right_Index_Distal-1_collision_4</collision>
        <!-- extend copied -->
        <topic>right_Index_Distal-1_side_collision</topic>
      </contact>
    </sensor>
  </gazebo>
  <gazebo reference="right_Middle_Proximal-1">
    <sensor name="right_middle_proximal_contact_sensor" type="contact">
      <always_on>1</always_on>
      <contact>
        <!-- these collision names make more sense after parsing to SDF -->
        <collision>right_Middle_Proximal-1_collision</collision>
        <topic>right_Middle_Proximal-1_collision</topic>
      </contact>
    </sensor>
  </gazebo>
  <gazebo reference="right_Middle_Ring_Median-1">
    <sensor name="right_middle_median_contact_sensor" type="contact">
      <always_on>1</always_on>
      <contact>
        <!-- these collision names make more sense after parsing to SDF -->
        <collision>right_Middle_Ring_Median-1_collision</collision>
        <topic>right_Middle_Ring_Median-1_collision</topic>
      </contact>
    </sensor>
  </gazebo>
  <gazebo reference="right_Middle_Ring_Distal-1">
    <sensor name="right_middle_distal_contact_sensor" type="contact">
      <always_on>1</always_on>
      <contact>
        <!-- these collision names make more sense after parsing to SDF -->
        <collision>right_Middle_Ring_Distal-1_collision</collision>
        <collision>right_Middle_Ring_Distal-1_collision_1</collision>
        <collision>right_Middle_Ring_Distal-1_collision_2</collision>
        <topic>right_Middle_Ring_Distal-1_collision</topic>
      </contact>
    </sensor>
  </gazebo>
  <gazebo reference="right_Ring_Proximal-1">
    <sensor name="right_ring_proximal_contact_sensor" type="contact">
      <always_on>1</always_on>
      <contact>
        <!-- these collision names make more sense after parsing to SDF -->
        <collision>right_Ring_Proximal-1_collision</collision>
        <topic>right_Ring_Proximal-1_collision</topic>
      </contact>
    </sensor>
  </gazebo>
  <gazebo reference="right_Middle_Ring_Median-2">
    <sensor name="right_ring_median_contact_sensor" type="contact">
      <always_on>1</always_on>
      <contact>
        <!-- these collision names make more sense after parsing to SDF -->
        <collision>right_Middle_Ring_Median-2_collision</collision>
        <topic>right_Middle_Ring_Median-2_collision</topic>
      </contact>
    </sensor>
  </gazebo>
  <gazebo reference="right_Middle_Ring_Distal-2">
    <sensor name="right_ring_distal_contact_sensor" type="contact">
      <always_on>1</always_on>
      <contact>
        <!-- these collision names make more sense after parsing to SDF -->
        <collision>right_Middle_Ring_Distal-2_collision</collision>
        <collision>right_Middle_Ring_Distal-2_collision_1</collision>
        <collision>right_Middle_Ring_Distal-2_collision_2</collision>
        <topic>right_Middle_Ring_Distal-2_collision</topic>
      </contact>
    </sensor>
  </gazebo>
  <gazebo reference="right_Pinky_Proximal-1">
    <sensor name="right_pinky_proximal_contact_sensor" type="contact">
      <always_on>1</always_on>
      <contact>
        <!-- these collision names make more sense after parsing to SDF -->
        <collision>right_Pinky_Proximal-1_collision</collision>
        <topic>right_Pinky_Proximal-1_collision</topic>
      </contact>
    </sensor>
  </gazebo>
  <gazebo reference="right_Pinky_Distal-1">
    <sensor name="right_pinky_distal_contact_sensor" type="contact">
      <always_on>1</always_on>
      <contact>
        <!-- these collision names make more sense after parsing to SDF -->
        <collision>right_Pinky_Distal-1_collision</collision>
        <collision>right_Pinky_Distal-1_collision_1</collision>
        <collision>right_Pinky_Distal-1_collision_2</collision>
        <topic>right_Pinky_Distal-1_collision</topic>
      </contact>
    </sensor>
  </gazebo>
  <gazebo reference="right_Palm-1">
    <sensor name="right_palm_front_distal_contact_sensor" type="contact">
      <always_on>1</always_on>
      <contact>
        <!-- these collision names make more sense after parsing to SDF -->
        <collision>right_Palm-1_collision_1</collision>
        <topic>right_Palm-1_collision</topic>
      </contact>
    </sensor>
    <sensor name="right_palm_front_proximal_contact_sensor" type="contact">
      <always_on>1</always_on>
      <contact>
        <!-- these collision names make more sense after parsing to SDF -->
        <collision>right_Palm-1_collision_8</collision>
        <topic>right_Palm-1_collision_proximal</topic>
      </contact>
    </sensor>
    <sensor name="right_palm_inside_contact_sensor" type="contact">
      <always_on>1</always_on>
      <contact>
        <!-- these collision names make more sense after parsing to SDF -->
        <collision>right_Palm-1_collision_3</collision>
        <topic>right_Palm-1_collision_inside</topic>
      </contact>
    </sensor>
    <sensor name="right_palm_outside_contact_sensor" type="contact">
      <always_on>1</always_on>
      <contact>
        <!-- these collision names make more sense after parsing to SDF -->
        <collision>right_Palm-1_collision_2</collision>
        <topic>right_Palm-1_collision_outside</topic>
      </contact>
    </sensor>
    <sensor name="right_palm_back_contact_sensor" type="contact">
      <always_on>1</always_on>
      <contact>
        <!-- these collision names make more sense after parsing to SDF -->
        <collision>right_Palm-1_collision</collision>
        <topic>right_Palm-1_collision</topic>
      </contact>
    </sensor>
  </gazebo>
  <link name="left_SFA">
    <inertial>
      <origin rpy="1.57079632679 1.57079632679 0" xyz="0 0 0.038"/>
      <mass value="0.481"/>
      <inertia ixx="0.00017071" ixy="2.1462E-06" ixz="-7.2565E-07" iyy="0.00016837" iyz="4.1009E-07" izz="0.00030213"/>
    </inertial>
    <collision>
      <origin rpy="0 0 0" xyz="0 0 0.0325"/>
      <geometry>
        <cylinder length="0.07" radius="0.0276"/>
      </geometry>
    </collision>
    <visual>
      <origin rpy="0 0 0" xyz="0 0 0.0325"/>
      <geometry>
        <cylinder length="0.07" radius="0.0276"/>
      </geometry>
      <material name="">
        <color rgba="0.75294 0.75294 0.75294 1"/>
      </material>
    </visual>
  </link>
  <joint name="left_abductor" type="revolute">
    <origin rpy="0.02569452348 0 0" xyz="0 0 -0.035"/>
    <parent link="l_interface_link"/>
    <child link="left_SFA"/>
    <axis xyz="1 0 0"/>
    <limit effort="10.0" lower="0.0" upper="0.6" velocity="2.0"/>
    <dynamics damping="2.0" friction="0"/>
  </joint>
  <link name="left_should">
    <inertial>
      <origin rpy="0 0 0" xyz="0 0 0"/>
      <mass value="0.481"/>
      <inertia ixx="0.00017071" ixy="2.1462E-06" ixz="-7.2565E-07" iyy="0.00016837" iyz="4.1009E-07" izz="0.00030213"/>
    </inertial>
    <collision>
      <origin rpy="0 0 0" xyz="0 0 0"/>
      <geometry>
        <mesh filename="meshes/left/Arm_SFA.obj"/>
      </geometry>
    </collision>
    <visual>
      <origin rpy="0 0 0" xyz="0 0 0"/>
      <geometry>
        <mesh filename="meshes/left/Arm_SFA.obj"/>
      </geometry>
      <material name="">
        <color rgba="0.75294 0.75294 0.75294 1"/>
      </material>
    </visual>
  </link>
  <joint name="left_shoulder" type="revolute">
    <origin rpy="0.0872665 0 0.12545544" xyz="0 0 0.0"/>
    <parent link="left_SFA"/>
    <child link="left_should"/>
    <axis xyz="0 0 1"/>
    <limit effort="10.0" lower="-0.48" upper="2.0" velocity="2.0"/>
    <dynamics damping="2.0" friction="0"/>
  </joint>
  <link name="left_HR">
    <inertial>
      <origin rpy="0 0 0" xyz="0 0 0"/>
      <mass value="0.481"/>
      <inertia ixx="0.00017071" ixy="2.1462E-06" ixz="-7.2565E-07" iyy="0.00016837" iyz="4.1009E-07" izz="0.00030213"/>
    </inertial>
    <collision>
      <origin rpy="0 0 0" xyz="0 0 0"/>
      <geometry>
        <mesh filename="meshes/left/Arm_HR.obj"/>
      </geometry>
    </collision>
    <visual>
      <origin rpy="0 0 0" xyz="0 0 0"/>
      <geometry>
        <mesh filename="meshes/left/Arm_HR.obj"/>
      </geometry>
      <material name="">
        <color rgba="0.75294 0.75294 0.75294 1"/>
      </material>
    </visual>
  </link>
  <joint name="left_humeral" type="revolute">
    <origin rpy="0 0.0349065 0" xyz="0 -0.314 0.0045"/>
    <parent link="left_should"/>
    <child link="left_HR"/>
    <axis xyz="0 -1 0"/>
    <limit effort="10.0" lower="-1.6" upper="1.65" velocity="2.0"/>
    <dynamics damping="2.0" friction="0"/>
  </joint>
  <link name="left_EF">
    <inertial>
      <origin rpy="0 0 0" xyz="0 0 0"/>
      <mass value="0.481"/>
      <inertia ixx="0.00017071" ixy="2.1462E-06" ixz="-7.2565E-07" iyy="0.00016837" iyz="4.1009E-07" izz="0.00030213"/>
    </inertial>
    <collision>
      <origin rpy="0 0 0" xyz="0 0 0"/>
      <geometry>
        <mesh filename="meshes/left/Arm_EF.obj"/>
      </geometry>
    </collision>
    <visual>
      <origin rpy="0 0 0" xyz="0 0 0"/>
      <geometry>
        <mesh filename="meshes/left/Arm_EF.obj"/>
      </geometry>
      <material name="">
        <color rgba="0.75294 0.75294 0.75294 1"/>
      </material>
    </visual>
  </link>
  <joint name="left_elbow" type="revolute">
    <origin rpy="-0.02236203 1.57079632679 0" xyz="0 0 0"/>
    <parent link="left_HR"/>
    <child link="left_EF"/>
    <axis xyz="-1 0 0"/>
    <limit effort="10.0" lower="0.0125" upper="2.25" velocity="2.0"/>
    <dynamics damping="2.0" friction="0"/>
  </joint>
  <!-- Model SDF copied from gazebo_models
  <gazebo>
    <joint name='${prefix}_elbow' type='revolute'>
      <child>WR_Base-1</child>
      <parent>world</parent>
      <axis>
        <xyz>0 0 1.0</xyz>
        <limit>
          <lower>0</lower>
          <upper>0</upper>
          <effort>10000</effort>
          <velocity>-1</velocity>
        </limit>
        <dynamics>
          <damping>2</damping>
          <friction>0</friction>
          <spring_reference>0</spring_reference>
          <spring_stiffness>0</spring_stiffness>
        </dynamics>
        <use_parent_model_frame>1</use_parent_model_frame>
      </axis>
      <physics>
        <provide_feedback>1</provide_feedback>
        <ode>
          <provide_feedback>1</provide_feedback>
          <implicit_spring_damper>1</implicit_spring_damper>
          <cfm_damping>1</cfm_damping>
          <limit>
            <cfm>0.01</cfm>
            <erp>0</erp>
          </limit>
        </ode>
      </physics>
    </joint>
  </gazebo>
  -->
  <transmission name="left_tran1" type="SimpleTransmission">
    <type>transmission_interface/SimpleTransmission</type>
    <joint name="left_abductor">
      <hardwareInterface>hardware_interface/PositionJointInterface</hardwareInterface>
    </joint>
    <actuator name="left_motor1">
      <mechanicalReduction>1</mechanicalReduction>
    </actuator>
  </transmission>
  <transmission name="left_tran2" type="SimpleTransmission">
    <type>transmission_interface/SimpleTransmission</type>
    <joint name="left_shoulder">
      <hardwareInterface>hardware_interface/PositionJointInterface</hardwareInterface>
    </joint>
    <actuator name="left_motor2">
      <mechanicalReduction>1</mechanicalReduction>
    </actuator>
  </transmission>
  <transmission name="left_tran3" type="SimpleTransmission">
    <type>transmission_interface/SimpleTransmission</type>
    <joint name="left_humeral">
      <hardwareInterface>hardware_interface/PositionJointInterface</hardwareInterface>
    </joint>
    <actuator name="left_motor3">
      <mechanicalReduction>1</mechanicalReduction>
    </actuator>
  </transmission>
  <transmission name="left_tran4" type="SimpleTransmission">
    <type>transmission_interface/SimpleTransmission</type>
    <joint name="left_elbow">
      <hardwareInterface>hardware_interface/PositionJointInterface</hardwareInterface>
    </joint>
    <actuator name="left_motor4">
      <mechanicalReduction>1</mechanicalReduction>
    </actuator>
  </transmission>
  <gazebo reference="left_abductor">
    <implicitSpringDamper>1</implicitSpringDamper>
    <cfm>0.01</cfm>
    <erp>0.0</erp>
    <stopCfm>0.01</stopCfm>
    <stopErp>0.0</stopErp>
  </gazebo>
  <gazebo reference="left_shoulder">
    <implicitSpringDamper>1</implicitSpringDamper>
    <cfm>0.01</cfm>
    <erp>0.0</erp>
    <stopCfm>0.01</stopCfm>
    <stopErp>0.0</stopErp>
  </gazebo>
  <gazebo reference="left_humeral">
    <implicitSpringDamper>1</implicitSpringDamper>
    <cfm>0.01</cfm>
    <erp>0.0</erp>
    <stopCfm>0.01</stopCfm>
    <stopErp>0.0</stopErp>
  </gazebo>
  <gazebo reference="left_elbow">
    <implicitSpringDamper>1</implicitSpringDamper>
    <cfm>0.01</cfm>
    <erp>0.0</erp>
    <stopCfm>0.01</stopCfm>
    <stopErp>0.0</stopErp>
  </gazebo>
  <gazebo reference="left_SFA">
    <!-- <selfCollide>1</selfCollide> -->
    <collision>
      <max_contacts>4</max_contacts>
      <surface>
        <contact>
          <ode>
            <kp>1e+06</kp>
            <kd>100</kd>
            <max_vel>100</max_vel>
            <min_depth>0.001</min_depth>
          </ode>
        </contact>
        <friction>
          <ode>
            <mu>1</mu>
            <mu2>1</mu2>
          </ode>
        </friction>
      </surface>
    </collision>
    <visual>
      <material>
        <ambient> 0.5 0.5 0.5 1.0</ambient>
        <diffuse> 0.5 0.5 0.5 1.0</diffuse>
        <specular>0.5 0.5 0.5 0.8</specular>
      </material>
    </visual>
  </gazebo>
  <gazebo reference="left_should">
    <!-- <selfCollide>1</selfCollide> -->
    <collision>
      <max_contacts>4</max_contacts>
      <surface>
        <contact>
          <ode>
            <kp>1e+06</kp>
            <kd>100</kd>
            <max_vel>100</max_vel>
            <min_depth>0.001</min_depth>
          </ode>
        </contact>
        <friction>
          <ode>
            <mu>1</mu>
            <mu2>1</mu2>
          </ode>
        </friction>
      </surface>
    </collision>
    <visual>
      <material>
        <ambient> 0.5 0.5 0.5 1.0</ambient>
        <diffuse> 0.5 0.5 0.5 1.0</diffuse>
        <specular>0.5 0.5 0.5 0.8</specular>
      </material>
    </visual>
  </gazebo>
  <gazebo reference="left_HR">
    <!-- <selfCollide>1</selfCollide> -->
    <collision>
      <max_contacts>4</max_contacts>
      <surface>
        <contact>
          <ode>
            <kp>1e+06</kp>
            <kd>100</kd>
            <max_vel>100</max_vel>
            <min_depth>0.001</min_depth>
          </ode>
        </contact>
        <friction>
          <ode>
            <mu>1</mu>
            <mu2>1</mu2>
          </ode>
        </friction>
      </surface>
    </collision>
    <visual>
      <material>
        <ambient> 0.5 0.5 0.5 1.0</ambient>
        <diffuse> 0.5 0.5 0.5 1.0</diffuse>
        <specular>0.5 0.5 0.5 0.8</specular>
      </material>
    </visual>
  </gazebo>
  <gazebo reference="left_EF">
    <!-- <selfCollide>1</selfCollide> -->
    <collision>
      <max_contacts>4</max_contacts>
      <surface>
        <contact>
          <ode>
            <kp>1e+06</kp>
            <kd>100</kd>
            <max_vel>100</max_vel>
            <min_depth>0.001</min_depth>
          </ode>
        </contact>
        <friction>
          <ode>
            <mu>1</mu>
            <mu2>1</mu2>
          </ode>
        </friction>
      </surface>
    </collision>
    <visual>
      <material>
        <ambient> 0.5 0.5 0.5 1.0</ambient>
        <diffuse> 0.5 0.5 0.5 1.0</diffuse>
        <specular>0.5 0.5 0.5 0.8</specular>
      </material>
    </visual>
  </gazebo>
  <gazebo reference="left_WR_Forearm-1">
    <!-- <selfCollide>1</selfCollide> -->
    <collision>
      <max_contacts>4</max_contacts>
      <surface>
        <contact>
          <ode>
            <kp>1e+06</kp>
            <kd>100</kd>
            <max_vel>100</max_vel>
            <min_depth>0.001</min_depth>
          </ode>
        </contact>
        <friction>
          <ode>
            <mu>1</mu>
            <mu2>1</mu2>
          </ode>
        </friction>
      </surface>
    </collision>
    <visual>
      <material>
        <ambient> 0.6 0.6 0.6 1.0</ambient>
        <diffuse> 0.6 0.6 0.6 1.0</diffuse>
        <specular>0.6 0.6 0.6 0.8</specular>
      </material>
    </visual>
  </gazebo>
  <link name="left_WR_Base-1">
    <inertial>
      <origin rpy="0 0 -1.5708" xyz="0.00023527 0 0.01049"/>
      <mass value="0.481"/>
      <inertia ixx="0.00017071" ixy="2.1462E-06" ixz="-7.2565E-07" iyy="0.00016837" iyz="4.1009E-07" izz="0.00030213"/>
    </inertial>
    <collision>
      <origin rpy="0 0 0" xyz="0 0 0.0105"/>
      <geometry>
        <cylinder length="0.029" radius="0.032"/>
      </geometry>
    </collision>
    <visual>
      <origin rpy="0 0 0" xyz="0 0 0.025"/>
      <geometry>
        <mesh filename="meshes/left/base.obj"/>
      </geometry>
      <material name="">
        <color rgba="0.75294 0.75294 0.75294 1"/>
      </material>
    </visual>
    <!--
    <visual>
      <origin xyz="0 0 0.001" rpy="0 0 0"/>
      <geometry>
        <mesh
          filename="meshes/${prefix}/WR_Base-1a.obj" />
      </geometry>
      <material
        name="">
        <color
          rgba="0.75294 0.75294 0.75294 1" />
      </material>
    </visual>
    <visual>
      <origin xyz="0 0 0.02" rpy="0 0 0"/>
      <geometry>
        <mesh
          filename="meshes/${prefix}/WR_Base-1.obj" />
      </geometry>
      <material
        name="">
        <color
          rgba="0.75294 0.75294 0.75294 1" />
      </material>
    </visual>
    -->
  </link>
  <joint name="left_EF2Base" type="fixed">
    <origin rpy="1.57079632679 -3.9269906 0" xyz="0.0 -0.169 -0.009"/>
    <parent link="left_EF"/>
    <child link="left_WR_Base-1"/>
  </joint>
  <gazebo>
    <joint name="left_EF2Base" type="fixed">
      <pose>0.0 -0.169 -0.009 1.57079632679 0 0</pose>
      <parent>left_EF</parent>
      <child>left_WR_Base-1</child>
    </joint>
  </gazebo>
  <link name="left_WR_Forearm-1">
    <inertial>
      <origin rpy="0 0 0" xyz="0.00023527 0.00012926 0.01049"/>
      <mass value="0.481"/>
      <inertia ixx="0.00017071" ixy="2.1462E-06" ixz="-7.2565E-07" iyy="0.00016837" iyz="4.1009E-07" izz="0.00030213"/>
    </inertial>
    <collision>
      <origin rpy="0 0 0" xyz="0 0 0.065"/>
      <geometry>
        <cylinder length="0.08" radius="0.032"/>
      </geometry>
    </collision>
    <collision>
      <origin rpy="-1.570796 0 0.58" xyz="0 0 0.121"/>
      <geometry>
        <cylinder length="0.020" radius="0.02"/>
      </geometry>
    </collision>
    <collision>
      <origin rpy="-1.570796 0 0.58" xyz="0 0 0.103"/>
      <geometry>
        <cylinder length="0.020" radius="0.0275"/>
      </geometry>
    </collision>
    <visual>
      <origin rpy="0 0 -0.9" xyz="0 0 0.025"/>
      <geometry>
        <mesh filename="meshes/left/forearm.obj"/>
      </geometry>
      <material name="">
        <color rgba="0.75294 0.75294 0.75294 1"/>
      </material>
    </visual>
    <!--
    <visual>
      <origin xyz="0 0 0.02" rpy="0 0 0"/>
      <geometry>
        <mesh
          filename="meshes/${prefix}/MAC_WR_LUI-1.obj" />
      </geometry>
      <material
        name="">
        <color
          rgba="0.75294 0.75294 0.75294 1" />
      </material>
    </visual>
    <visual>
      <origin xyz="0 0 0.018" rpy="0 0 0"/>
      <geometry>
        <mesh
          filename="meshes/${prefix}/WFD_Mount-1.obj" />
      </geometry>
      <material
        name="">
        <color
          rgba="0.75294 0.75294 0.75294 1" />
      </material>
    </visual>
    -->
  </link>
  <joint name="left_wrist_rot" type="revolute">
    <origin rpy="0 0 -0.5" xyz="0 0 0"/>
    <parent link="left_WR_Base-1"/>
    <child link="left_WR_Forearm-1"/>
    <axis xyz="0 0 -1"/>
    <limit effort="10.0" lower="-2.15" upper="3.15" velocity="1.5"/>
    <dynamics damping="2.63852030857" friction="2.69772560896"/>
  </joint>
  <link name="left_WFD_Gearbox-1">
    <inertial>
      <origin rpy="0 0 0" xyz="-0.00077349 -0.0012316 0.025483"/>
      <mass value="0.1555"/>
      <inertia ixx="0.0001555" ixy="0" ixz="0" iyy="0.0001555" iyz="0" izz="0.0001555"/>
    </inertial>
    <collision>
      <origin rpy="-1.570796 0.124566 0" xyz="0 0 0"/>
      <geometry>
        <cylinder length="0.035" radius="0.013"/>
      </geometry>
    </collision>
    <visual>
      <origin rpy="0 0 -1.56073" xyz="0 0 0"/>
      <geometry>
        <mesh filename="meshes/left/wrist.obj"/>
      </geometry>
      <material name="">
        <color rgba="0.75294 0.75294 0.75294 1"/>
      </material>
    </visual>
    <!--
    <visual>
      <origin xyz="0 -0.023265 -0.098808" rpy="-0.195329 0.124566 0.56073"/>
      <geometry>
        <mesh
          filename="meshes/${prefix}/WFD_Gearbox-1.obj" />
      </geometry>
      <material
        name="">
        <color
          rgba="0.75294 0.75294 0.75294 1" />
      </material>
    </visual>
    -->
  </link>
  <joint name="left_wrist_ab_ad" type="revolute">
    <origin rpy="-0.20778714 0 0.57295" xyz="0 0 0.12151"/>
    <parent link="left_WR_Forearm-1"/>
    <child link="left_WFD_Gearbox-1"/>
    <axis xyz="-1 0 0"/>
    <limit effort="10.0" lower="-0.5" upper="0.5" velocity="1.5"/>
    <!-- <limit
      lower="-0.05"
      upper="0.05"
      effort="10.0"
      velocity="1.5" /> -->
    <dynamics damping="1" friction="0.1"/>
  </joint>
  <link name="left_Palm-1">
    <inertial>
      <origin rpy="0 0 0" xyz="-0.00077349 -0.0012316 0.025483"/>
      <mass value="0.4747"/>
      <inertia ixx="0.00047" ixy="0" ixz="0" iyy="0.00047" iyz="0" izz="0.00047"/>
    </inertial>
    <collision>
      <!-- -0.003-((0.033+0.003)/4)*cos(0.5607), -((0.033+0.003)/4)*sin(0.5607), z -->
      <origin rpy="0.0 0.0 -0.5" xyz="-0.01062194765 0.00478601231 0.065"/>
      <geometry>
        <box size="0.0195 0.065 0.08"/>
      </geometry>
    </collision>
    <!-- Palm front distal -->
    <collision>
      <!-- -0.003+((0.033+0.012)/4)*cos(0.5607), ((0.033+0.012)/4)*sin(0.5607), z -->
      <origin rpy="0.0 0.0 -0.5" xyz="0.00652743457 -0.00598251539 0.065"/>
      <geometry>
        <box size="0.0225 0.065 0.035"/>
      </geometry>
    </collision>
    <collision>
      <!-- outside -->
      <!-- -0.003+(0.075/2-0.005/2)*sin(0.5607), -(0.075/2-0.005/2)*cos(0.5607), z -->
      <origin rpy="0.0 0.0 -0.56073" xyz="0.01561227012 0.02964090755 0.065"/>
      <geometry>
        <box size="0.033 0.005 0.06"/>
      </geometry>
    </collision>
    <collision>
      <!-- inside 3 -->
      <!-- -0.003-(0.075/2-0.005/2)*sin(0.5607), (0.075/2-0.005/2)*cos(0.5607), z -->
      <origin rpy="0.0 0.0 -0.56073" xyz="-0.02161227012 -0.02964090755 0.065"/>
      <geometry>
        <box size="0.033 0.005 0.06"/>
      </geometry>
    </collision>
    <!--
    <collision>
      <origin xyz="-0.003 0 0.065" rpy="0.0 0.0 0.56073"/>
      <geometry>
        <box size="0.033 0.075 0.08"/>
      </geometry>
    </collision>
    -->
    <collision>
      <origin rpy="0.0 0.0 -0.56073" xyz="-0.013 -0.025 0.015"/>
      <geometry>
        <box size="0.03 0.005 0.02"/>
      </geometry>
    </collision>
    <collision>
      <origin rpy="0.0 0.0 -0.56073" xyz="0.013 0.025 0.015"/>
      <geometry>
        <box size="0.03 0.005 0.02"/>
      </geometry>
    </collision>
    <collision>
      <origin rpy="0.0 0.0 0" xyz="0 -0.025 0.00"/>
      <geometry>
        <box size="0.03 0.005 0.02"/>
      </geometry>
    </collision>
    <collision>
      <origin rpy="0.0 0.0 0" xyz="0 0.025 0.00"/>
      <geometry>
        <box size="0.03 0.005 0.02"/>
      </geometry>
    </collision>
    <!-- Palm front proximal -->
    <collision>
      <!-- -0.003+((0.033+0.012)/4)*cos(0.5607), ((0.033+0.012)/4)*sin(0.5607), z -->
      <origin rpy="0.0 0.0 -0.5" xyz="0.00652743457 -0.00598251539 0.040"/>
      <geometry>
        <box size="0.0225 0.065 0.015"/>
      </geometry>
    </collision>
    <visual>
      <origin rpy="0 0 -2.06073" xyz="0 0 0"/>
      <geometry>
        <mesh filename="meshes/left/palm0.obj"/>
      </geometry>
      <material name="">
        <color rgba="0.75294 0.75294 0.75294 1"/>
      </material>
    </visual>
    <visual>
      <origin rpy="0 0 -2.06073" xyz="0 0 0"/>
      <geometry>
        <mesh filename="meshes/left/palm1.obj"/>
      </geometry>
      <material name="">
        <color rgba="0.75294 0.75294 0.75294 1"/>
      </material>
    </visual>
    <visual>
      <origin rpy="0 0 -2.06073" xyz="0 0 0"/>
      <geometry>
        <mesh filename="meshes/left/palm2.obj"/>
      </geometry>
      <material name="">
        <color rgba="0.75294 0.75294 0.75294 1"/>
      </material>
    </visual>
  </link>
  <joint name="left_wrist_flex" type="revolute">
    <parent link="left_WFD_Gearbox-1"/>
    <child link="left_Palm-1"/>
    <axis xyz="0 1 0"/>
    <limit effort="10.0" lower="-0.945" upper="0.945" velocity="1.5"/>
    <!-- <limit
      lower="-0.05"
      upper="0.05"
      effort="10.0"
      velocity="1.5" /> -->
    <dynamics damping="6.25585161861" friction="3.53741608684"/>
  </joint>
  <!-- Gazebo for arm -->
  <transmission name="left_tran5" type="SimpleTransmission">
    <type>transmission_interface/SimpleTransmission</type>
    <joint name="left_wrist_rot">
      <hardwareInterface>hardware_interface/PositionJointInterface</hardwareInterface>
    </joint>
    <actuator name="left_motor5">
      <mechanicalReduction>1</mechanicalReduction>
    </actuator>
  </transmission>
  <transmission name="left_tran6" type="SimpleTransmission">
    <type>transmission_interface/SimpleTransmission</type>
    <joint name="left_wrist_flex">
      <hardwareInterface>hardware_interface/PositionJointInterface</hardwareInterface>
    </joint>
    <actuator name="left_motor6">
      <mechanicalReduction>1</mechanicalReduction>
    </actuator>
  </transmission>
  <transmission name="left_tran7" type="SimpleTransmission">
    <type>transmission_interface/SimpleTransmission</type>
    <joint name="left_wrist_ab_ad">
      <hardwareInterface>hardware_interface/PositionJointInterface</hardwareInterface>
    </joint>
    <actuator name="left_motor7">
      <mechanicalReduction>1</mechanicalReduction>
    </actuator>
  </transmission>
  <!-- Finger Links -->
  <link name="left_Thumb_Gear-1">
    <inertial>
      <origin rpy="0 0 0" xyz="-0.023851 0.037247 0.017527"/>
      <mass value="0.01"/>
      <inertia ixx="1E-05" ixy="0" ixz="0" iyy="1E-05" iyz="0" izz="1E-05"/>
    </inertial>
    <collision>
      <origin rpy="0 1.58 0.2" xyz="0 0 0"/>
      <geometry>
        <cylinder length="0.032" radius="0.005"/>
      </geometry>
    </collision>
    <visual>
      <origin rpy="-2.8 1.6 -2.6" xyz="0 0 0"/>
      <geometry>
        <mesh filename="meshes/left/thumb_Gear.obj"/>
      </geometry>
      <material name="">
        <color rgba="0.75294 0.75294 0.75294 1"/>
      </material>
    </visual>
  </link>
  <joint name="left_thumb_yaw" type="revolute">
    <origin rpy="2.349 -1.3196 -2.8562" xyz="-0.0088038 -0.043847 0.04505"/>
    <parent link="left_Palm-1"/>
    <child link="left_Thumb_Gear-1"/>
    <axis xyz="0.18257 -0.98319 0"/>
    <limit effort="0.1" lower="0" upper="1.28173" velocity="1.5"/>
    <dynamics damping="4.52373387972" friction="0.0789639790315"/>
  </joint>
  <link name="left_Distal_Thumb-1">
    <inertial>
      <origin rpy="0 0 0" xyz="-0.023851 0.037247 0.017527"/>
      <mass value="0.035"/>
      <inertia ixx="3.5E-05" ixy="0" ixz="0" iyy="3.5E-05" iyz="0" izz="3.5E-05"/>
    </inertial>
    <collision>
      <!-- 0 -->
      <origin rpy="-1.7 0 0.2" xyz="-0.0125 -0.015 0.0065"/>
      <geometry>
        <box size="0.005 0.011 0.018"/>
      </geometry>
    </collision>
    <collision>
      <!-- 1 -->
      <origin rpy="-1.7 0 0.2" xyz="0.017 -0.008 0.0095"/>
      <geometry>
        <box size="0.003 0.007 0.018"/>
      </geometry>
    </collision>
    <collision>
      <!-- 2 -->
      <origin rpy="-1.7 0 0.2" xyz="0.005 -0.02 0.0085"/>
      <geometry>
        <box size="0.030 0.011 0.008"/>
      </geometry>
    </collision>
    <collision>
      <!-- 3 -->
      <origin rpy="-1.7 0 0.2" xyz="0.008 -0.04 0.010"/>
      <geometry>
        <cylinder length="0.03" radius="0.012"/>
      </geometry>
    </collision>
    <collision>
      <!-- 4 extend -->
      <origin rpy="-1.6 0 0.2" xyz="0.013 -0.065 0.011"/>
      <geometry>
        <cylinder length="0.020" radius="0.009"/>
      </geometry>
    </collision>
    <!-- Distal_Thumb-1 collisions -->
    <collision>
      <!-- 5 -->
      <origin rpy="-1.6 0 0.6" xyz="0.021 -0.082 0.011"/>
      <geometry>
        <cylinder length="0.020" radius="0.006"/>
      </geometry>
    </collision>
    <collision>
      <!-- 6 -->
      <origin rpy="-1.6 0 0.6" xyz="0.0265 -0.09 0.011"/>
      <geometry>
        <sphere radius="0.006"/>
      </geometry>
    </collision>
    <!-- Dorsal 7 -->
    <!-- 8 extend, move to side -->
    <!-- 9 -->
    <!-- Volar 10 -->
    <!-- Ulnar 11 -->
    <!-- Radial 12 -->
    <visual>
      <origin rpy="-1.51 -0.06 -1.38" xyz="0 0 0"/>
      <geometry>
        <mesh filename="meshes/left/Thumb_Nail.obj"/>
      </geometry>
      <material name="">
        <color rgba="0.75294 0.75294 0.75294 1"/>
      </material>
    </visual>
    <visual>
      <origin rpy="-1.51 -0.06 -1.38" xyz="0 0 0"/>
      <geometry>
        <mesh filename="meshes/left/Thumb_Distal.obj"/>
      </geometry>
      <material name="">
        <color rgba="0.75294 0.75294 0.75294 1"/>
      </material>
    </visual>
    <visual>
      <origin rpy="-1.51 -0.06 -1.38" xyz="0 0 0"/>
      <geometry>
        <mesh filename="meshes/left/Thumb_Proximal.obj"/>
      </geometry>
      <material name="">
        <color rgba="0.75294 0.75294 0.75294 1"/>
      </material>
    </visual>
    <visual>
      <origin rpy="-1.51 -0.06 -1.38" xyz="0 0 0"/>
      <geometry>
        <mesh filename="meshes/left/thumb1.obj"/>
      </geometry>
      <material name="">
        <color rgba="0.75294 0.75294 0.75294 1"/>
      </material>
    </visual>
    <visual>
      <origin rpy="-1.51 -0.06 -1.38" xyz="0 0 0"/>
      <geometry>
        <mesh filename="meshes/left/thumb0.obj"/>
      </geometry>
      <material name="">
        <color rgba="0.75294 0.75294 0.75294 1"/>
      </material>
    </visual>
  </link>
  <joint name="left_thumb_pitch" type="revolute">
    <!-- 15 degrees rotation as initial position match fine pinches -->
    <origin rpy="0.261 0.006 0.046" xyz="0 0 0"/>
    <parent link="left_Thumb_Gear-1"/>
    <child link="left_Distal_Thumb-1"/>
    <axis xyz="1 0.18 0"/>
    <limit effort="0.1" lower="0" upper="1.77151" velocity="1.5"/>
    <dynamics damping="0.34331367985" friction="3.4068163289899998"/>
  </joint>
  <link name="left_dklu-38013-001">
    <inertial>
      <origin rpy="0 0 0" xyz="0.0036074 -0.077779 0.0021647"/>
      <mass value="0.0049221"/>
      <inertia ixx="8.1722E-07" ixy="5.8087E-08" ixz="1.5443E-08" iyy="3.6646E-07" iyz="1.29E-07" izz="7.8746E-07"/>
    </inertial>
    <visual>
      <origin rpy="1.0 1.8 1.19" xyz="0 0 0"/>
      <geometry>
        <mesh filename="meshes/left/dklu-38013-001-1.obj"/>
      </geometry>
      <material name="">
        <color rgba="0.75294 0.75294 0.75294 1"/>
      </material>
    </visual>
  </link>
  <joint name="left_thumb_cosmesis" type="fixed">
    <parent link="left_Distal_Thumb-1"/>
    <child link="left_dklu-38013-001"/>
    <axis xyz="0 0 0"/>
  </joint>
  <link name="left_Index_Proximal-1">
    <inertial>
      <origin rpy="0 0 0" xyz="0.073068 0.014703 0.011025"/>
      <mass value="0.0191"/>
      <inertia ixx="1.91E-05" ixy="0" ixz="0" iyy="1.91E-05" iyz="0" izz="1.91E-05"/>
    </inertial>
    <collision>
      <origin rpy="-1.36808 -1.50 1.48" xyz="-0.02 -0.0023 0.039"/>
      <geometry>
        <cylinder length="0.05" radius="0.0095"/>
      </geometry>
    </collision>
    <visual>
      <origin rpy="0.1 -1.5708 0" xyz="0 0 0.039"/>
      <geometry>
        <mesh filename="meshes/left/Index_Proximal.obj"/>
      </geometry>
      <material name="">
        <color rgba="0.75294 0.75294 0.75294 1"/>
      </material>
    </visual>
  </link>
  <joint name="left_index_proximal_flex" type="revolute">
    <origin rpy="-1.558 1.3505 2.6305" xyz="0.0062467 0.0076872 0.099967"/>
    <parent link="left_Palm-1"/>
    <child link="left_Index_Proximal-1"/>
    <axis xyz="0 0 -1"/>
    <limit effort="0.1" lower="0" upper="1.48571" velocity="1.5"/>
    <dynamics damping="0.2928021721250000" friction="0.0710255638588"/>
  </joint>
  <link name="left_Index_Distal-1">
    <inertial>
      <origin rpy="0 0 0" xyz="0.11426 0.0063439 -0.027975"/>
      <mass value="0.0172"/>
      <inertia ixx="1.72E-05" ixy="0" ixz="0" iyy="1.72E-05" iyz="0" izz="1.72E-05"/>
    </inertial>
    <collision>
      <origin rpy="-1.36808 -1.50 1.15" xyz="-0.015 0.002 0"/>
      <geometry>
        <cylinder length="0.028" radius="0.0095"/>
      </geometry>
    </collision>
    <collision>
      <origin rpy="-1.36808 -1.50 1.15" xyz="-0.035 0.0075 0"/>
      <geometry>
        <cylinder length="0.013" radius="0.0085"/>
      </geometry>
    </collision>
    <collision>
      <origin rpy="-1.36808 -1.50 1.15" xyz="-0.04 0.01 0"/>
      <geometry>
        <sphere radius="0.0075"/>
      </geometry>
    </collision>
    <collision>
      <origin rpy="-1.75 -1.50 2.75" xyz="-0.0415 0.007 0"/>
      <geometry>
        <cylinder length="0.0005" radius="0.0075"/>
      </geometry>
    </collision>
    <collision>
      <!-- extend copy for side -->
      <origin rpy="-1.36808 -1.50 1.15" xyz="-0.015 0.002 0.001"/>
      <geometry>
        <cylinder length="0.028" radius="0.0095"/>
      </geometry>
    </collision>
    <visual>
      <origin rpy="-0.12 -1.5708 0" xyz="0 0 0"/>
      <geometry>
        <mesh filename="meshes/left/Index_Distal0.obj"/>
      </geometry>
      <material name="">
        <color rgba="0.75294 0.75294 0.75294 1"/>
      </material>
    </visual>
    <visual>
      <origin rpy="-0.12 -1.5708 0" xyz="0 0 0"/>
      <geometry>
        <mesh filename="meshes/left/Index_Distal1.obj"/>
      </geometry>
      <material name="">
        <color rgba="0.75294 0.75294 0.75294 1"/>
      </material>
    </visual>
    <visual>
      <origin rpy="-0.12 -1.5708 0" xyz="0 0 0"/>
      <geometry>
        <mesh filename="meshes/left/Index_Nail.obj"/>
      </geometry>
      <material name="">
        <color rgba="0.75294 0.75294 0.75294 1"/>
      </material>
    </visual>
  </link>
  <joint name="left_index_distal_flex" type="revolute">
    <origin rpy="0 1.0491E-07 0.11335" xyz="-0.039743 -0.0045244 0.039"/>
    <parent link="left_Index_Proximal-1"/>
    <child link="left_Index_Distal-1"/>
    <axis xyz="0 0 -1"/>
    <limit effort="0.1" lower="0" upper="1.5708" velocity="1.5"/>
    <dynamics damping="1" friction="0.1"/>
  </joint>
  <link name="left_dklu-38014-0011-1">
    <inertial>
      <origin rpy="0 0 0" xyz="-0.024029 0.0049452 0"/>
      <mass value="0.0041212"/>
      <inertia ixx="2.7902E-07" ixy="1.6277E-07" ixz="-5.7383E-11" iyy="6.7481E-07" iyz="-2.5725E-11" izz="7.164E-07"/>
    </inertial>
    <visual>
      <geometry>
        <mesh filename="meshes/left/dklu-38014-0011-1.obj"/>
      </geometry>
      <material name="">
        <color rgba="0.75294 0.75294 0.75294 1"/>
      </material>
    </visual>
  </link>
  <joint name="left_index_cosmesis" type="fixed">
    <parent link="left_Index_Distal-1"/>
    <child link="left_dklu-38014-0011-1"/>
    <axis xyz="0 0 0"/>
  </joint>
  <!-- model MRP differential joint -->
  <link name="left_MRP_Differential">
    <inertial>
      <origin rpy="0 0 0" xyz="0.073068 0.014703 0.011025"/>
      <mass value="0.0123"/>
      <inertia ixx="1.23E-05" ixy="0" ixz="0" iyy="1.23E-05" iyz="0" izz="1.23E-05"/>
    </inertial>
    <collision>
      <origin rpy="0 0 -1.570796" xyz="0 0 0"/>
      <geometry>
        <cylinder length="0.05" radius="0.0090"/>
      </geometry>
    </collision>
    <visual>
      <origin rpy="0 0 -1.570796" xyz="0 0 0"/>
      <geometry>
        <cylinder length="0.05" radius="0.0090"/>
      </geometry>
      <material name="">
        <color rgba="0.75294 0.75294 0.75294 1"/>
      </material>
    </visual>
  </link>
  <joint name="left_mrp_differential_flex" type="revolute">
    <origin rpy="-1.558 1.3505 2.6305" xyz="0.0062467 0.0076872 0.099967"/>
    <parent link="left_Palm-1"/>
    <child link="left_MRP_Differential"/>
    <axis xyz="0 0 -1"/>
    <limit effort="0.1" lower="0" upper="1.20455" velocity="1.5"/>
    <dynamics damping="0.255957600625" friction="0.006244210369169999"/>
  </joint>
  <link name="left_Middle_Proximal-1">
    <inertial>
      <origin rpy="0 0 0" xyz="0.074147 0.0075701 -0.0079751"/>
      <mass value="0.0131"/>
      <inertia ixx="1.31E-05" ixy="0" ixz="0" iyy="1.31E-05" iyz="0" izz="1.31E-05"/>
    </inertial>
    <collision>
      <origin rpy="-1.36808 -1.50 1.4" xyz="-0.02 0.0 0.0"/>
      <geometry>
        <cylinder length="0.06" radius="0.0095"/>
      </geometry>
    </collision>
    <visual>
      <origin rpy="0 -1.5708 0" xyz="0 0 0"/>
      <geometry>
        <mesh filename="meshes/left/Middle_Proximal.obj"/>
      </geometry>
      <material name="">
        <color rgba="0.75294 0.75294 0.75294 1"/>
      </material>
    </visual>
  </link>
  <joint name="left_middle_proximal_flex" type="revolute">
    <origin rpy="3.7e-05 -7e-06 0.096814" xyz="0 0 0.019"/>
    <parent link="left_MRP_Differential"/>
    <child link="left_Middle_Proximal-1"/>
    <axis xyz="0 0 -1"/>
    <limit effort="0.1" lower="0" upper="1.5708" velocity="1.5"/>
    <dynamics damping="0.09" friction="0.0"/>
  </joint>
  <link name="left_Middle_Ring_Median-1">
    <inertial>
      <origin rpy="0 0 0" xyz="0.11845 0.0075701 -0.0079751"/>
      <mass value="0.0051"/>
      <inertia ixx="5.1E-06" ixy="0" ixz="0" iyy="5.1E-06" iyz="0" izz="5.1E-06"/>
    </inertial>
    <collision>
      <origin rpy="-1.36808 -1.50 1.3" xyz="-0.015 0.0 -0.0"/>
      <geometry>
        <cylinder length="0.02" radius="0.0085"/>
      </geometry>
    </collision>
    <visual>
      <origin rpy="-0.1 -1.5708 0" xyz="0 0 0"/>
      <geometry>
        <mesh filename="meshes/left/MiddleRing_Median.obj"/>
      </geometry>
      <material name="">
        <color rgba="0.75294 0.75294 0.75294 1"/>
      </material>
    </visual>
  </link>
  <joint name="left_middle_median_flex" type="revolute">
    <origin rpy="0 0 0" xyz="-0.0443 0 0"/>
    <parent link="left_Middle_Proximal-1"/>
    <child link="left_Middle_Ring_Median-1"/>
    <axis xyz="0 0 -1"/>
    <limit effort="0.1" lower="0" upper="1.5708" velocity="1.5"/>
    <dynamics damping="0.09" friction="0.0"/>
  </joint>
  <link name="left_Middle_Ring_Distal-1">
    <inertial>
      <origin rpy="0 0 0" xyz="0.1427 0.015269 -0.0079751"/>
      <mass value="0.0035"/>
      <inertia ixx="3.5E-06" ixy="0" ixz="0" iyy="3.5E-06" iyz="0" izz="3.5E-06"/>
    </inertial>
    <collision>
      <origin rpy="-1.36808 -1.50 1.3" xyz="-0.01 0.0025 -0.0"/>
      <geometry>
        <cylinder length="0.02" radius="0.008"/>
      </geometry>
    </collision>
    <collision>
      <origin rpy="-1.36808 -1.50 1.3" xyz="-0.018 0.00325 -0.0"/>
      <geometry>
        <sphere radius="0.0075"/>
      </geometry>
    </collision>
    <collision>
      <origin rpy="-1.36808 -1.50 2.8" xyz="-0.019 -0.001 -0.0"/>
      <geometry>
        <cylinder length="0.0005" radius="0.0075"/>
      </geometry>
    </collision>
    <visual>
      <origin rpy="-0.05 -1.5708 0" xyz="0 0 0"/>
      <geometry>
        <mesh filename="meshes/left/MiddleRing_Distal.obj"/>
      </geometry>
      <material name="">
        <color rgba="0.75294 0.75294 0.75294 1"/>
      </material>
    </visual>
    <visual>
      <origin rpy="-0.05 -1.5708 0" xyz="0 0 0"/>
      <geometry>
        <mesh filename="meshes/left/MiddleRing_Nail.obj"/>
      </geometry>
      <material name="">
        <color rgba="0.75294 0.75294 0.75294 1"/>
      </material>
    </visual>
  </link>
  <joint name="left_middle_distal_flex" type="revolute">
    <origin rpy="0 3.0683E-08 -0.065184" xyz="-0.024947 0.0016284 0"/>
    <parent link="left_Middle_Ring_Median-1"/>
    <child link="left_Middle_Ring_Distal-1"/>
    <axis xyz="0 0 -1"/>
    <limit effort="0.1" lower="0" upper="1.5708" velocity="1.5"/>
    <dynamics damping="0.09" friction="0.0"/>
  </joint>
  <link name="left_dklu-38015-001-1">
    <inertial>
      <origin rpy="0 0 0" xyz="-0.0102 0.0015212 -1.2528E-07"/>
      <mass value="0.0023806"/>
      <inertia ixx="1.3264E-07" ixy="4.184E-08" ixz="-1.9193E-12" iyy="2.0245E-07" iyz="3.0185E-12" izz="2.2117E-07"/>
    </inertial>
    <visual>
      <geometry>
        <mesh filename="meshes/left/dklu-38015-001-1.obj"/>
      </geometry>
      <material name="">
        <color rgba="0.75294 0.75294 0.75294 1"/>
      </material>
    </visual>
  </link>
  <joint name="left_middle_cosmesis" type="fixed">
    <parent link="left_Middle_Ring_Distal-1"/>
    <child link="left_dklu-38015-001-1"/>
    <axis xyz="0 0 0"/>
  </joint>
  <link name="left_Ring_Proximal-1">
    <inertial>
      <origin rpy="0 0 0" xyz="0.073068 0.014703 0.011025"/>
      <mass value="0.0123"/>
      <inertia ixx="1.23E-05" ixy="0" ixz="0" iyy="1.23E-05" iyz="0" izz="1.23E-05"/>
    </inertial>
    <collision>
      <origin rpy="-1.36808 -1.50 1.55" xyz="-0.02 -0.0015 -0.0005"/>
      <geometry>
        <cylinder length="0.05" radius="0.0090"/>
      </geometry>
    </collision>
    <visual>
      <origin rpy="0.1 -1.5708 0" xyz="0 0 0"/>
      <geometry>
        <mesh filename="meshes/left/Ring_Proximal.obj"/>
      </geometry>
      <material name="">
        <color rgba="0.75294 0.75294 0.75294 1"/>
      </material>
    </visual>
  </link>
  <joint name="left_ring_proximal_flex" type="revolute">
    <parent link="left_MRP_Differential"/>
    <child link="left_Ring_Proximal-1"/>
    <axis xyz="0 0 -1"/>
    <limit effort="0.1" lower="0" upper="1.5708" velocity="1.5"/>
    <dynamics damping="0.09" friction="0"/>
  </joint>
  <link name="left_Middle_Ring_Median-2">
    <inertial>
      <origin rpy="0 0 0" xyz="0.11244 0.0049657 0.011025"/>
      <mass value="0.0051"/>
      <inertia ixx="5.1E-06" ixy="0" ixz="0" iyy="5.1E-06" iyz="0" izz="5.1E-06"/>
    </inertial>
    <collision>
      <origin rpy="-1.36808 -1.50 1.2" xyz="-0.015 0.0015 0.0"/>
      <geometry>
        <cylinder length="0.02" radius="0.0085"/>
      </geometry>
    </collision>
    <visual>
      <origin rpy="-0.08 -1.5708 0" xyz="0 0.001 0"/>
      <geometry>
        <mesh filename="meshes/left/MiddleRing_Median.obj"/>
      </geometry>
      <material name="">
        <color rgba="0.75294 0.75294 0.75294 1"/>
      </material>
    </visual>
  </link>
  <joint name="left_ring_median_flex" type="revolute">
    <origin rpy="0 0 -0.1319" xyz="-0.037739 -0.0050068 0"/>
    <parent link="left_Ring_Proximal-1"/>
    <child link="left_Middle_Ring_Median-2"/>
    <axis xyz="0 0 -1"/>
    <limit effort="0.1" lower="0" upper="1.5708" velocity="1.5"/>
    <dynamics damping="0.09" friction="0"/>
  </joint>
  <link name="left_Middle_Ring_Distal-2">
    <inertial>
      <origin rpy="0 0 0" xyz="0.13612 0.017892 0.011025"/>
      <mass value="0.0035"/>
      <inertia ixx="3.5E-06" ixy="0" ixz="0" iyy="3.5E-06" iyz="0" izz="3.5E-06"/>
    </inertial>
    <collision>
      <origin rpy="-1.36808 -1.50 1.3" xyz="-0.01 0.0025 -0.0"/>
      <geometry>
        <cylinder length="0.02" radius="0.008"/>
      </geometry>
    </collision>
    <collision>
      <origin rpy="-1.36808 -1.50 1.3" xyz="-0.018 0.00325 -0.0"/>
      <geometry>
        <sphere radius="0.0075"/>
      </geometry>
    </collision>
    <collision>
      <origin rpy="-1.36808 -1.50 2.8" xyz="-0.019 -0.001 -0.0"/>
      <geometry>
        <cylinder length="0.0005" radius="0.0075"/>
      </geometry>
    </collision>
    <visual>
      <origin rpy="-0.07 -1.5708 0" xyz="0 0 0"/>
      <geometry>
        <mesh filename="meshes/left/MiddleRing_Distal.obj"/>
      </geometry>
      <material name="">
        <color rgba="0.75294 0.75294 0.75294 1"/>
      </material>
    </visual>
    <visual>
      <origin rpy="-0.07 -1.5708 0" xyz="0 0 0"/>
      <geometry>
        <mesh filename="meshes/left/MiddleRing_Nail.obj"/>
      </geometry>
      <material name="">
        <color rgba="0.75294 0.75294 0.75294 1"/>
      </material>
    </visual>
  </link>
  <joint name="left_ring_distal_flex" type="revolute">
    <origin rpy="0 3.0683E-08 -0.11552" xyz="-0.024833 0.0028815 0"/>
    <parent link="left_Middle_Ring_Median-2"/>
    <child link="left_Middle_Ring_Distal-2"/>
    <axis xyz="0 0 -1"/>
    <limit effort="0.1" lower="0" upper="1.5708" velocity="1.5"/>
    <dynamics damping="0.09" friction="0"/>
  </joint>
  <link name="left_dklu-38016-001-1">
    <inertial>
      <origin rpy="0 0 0" xyz="-0.011035 0.0023855 -7.4384E-07"/>
      <mass value="0.0021229"/>
      <inertia ixx="1.1361E-07" ixy="2.6668E-08" ixz="4.3208E-12" iyy="1.5957E-07" iyz="4.1285E-12" izz="1.7245E-07"/>
    </inertial>
    <visual>
      <geometry>
        <mesh filename="meshes/left/dklu-38016-001-1.obj"/>
      </geometry>
      <material name="">
        <color rgba="0.75294 0.75294 0.75294 1"/>
      </material>
    </visual>
  </link>
  <joint name="left_ring_cosmesis" type="fixed">
    <parent link="left_Middle_Ring_Distal-2"/>
    <child link="left_dklu-38016-001-1"/>
    <axis xyz="0 0 0"/>
  </joint>
  <link name="left_Pinky_Proximal-1">
    <inertial>
      <origin rpy="0 0 0" xyz="0.073989 0.0089825 0.030025"/>
      <mass value="0.0102"/>
      <inertia ixx="1.02E-05" ixy="0" ixz="0" iyy="1.02E-05" iyz="0" izz="1.02E-05"/>
    </inertial>
    <collision>
      <origin rpy="-1.36808 -1.50 1.4" xyz="-0.0175 0.0 0.0"/>
      <geometry>
        <cylinder length="0.025" radius="0.0085"/>
      </geometry>
    </collision>
    <visual>
      <origin rpy="0 -1.5708 0" xyz="0 0 0"/>
      <geometry>
        <mesh filename="meshes/left/Pinky_Proximal.obj"/>
      </geometry>
      <material name="">
        <color rgba="0.75294 0.75294 0.75294 1"/>
      </material>
    </visual>
  </link>
  <joint name="left_pinky_proximal_flex" type="revolute">
    <origin rpy="1.1e-05 -1.6e-05 0.07771" xyz="1e-06 1e-06 -0.019001"/>
    <parent link="left_MRP_Differential"/>
    <child link="left_Pinky_Proximal-1"/>
    <axis xyz="0 0 -1"/>
    <limit effort="0.1" lower="0" upper="1.5708" velocity="1.5"/>
    <dynamics damping="0.05" friction="0"/>
  </joint>
  <link name="left_Pinky_Distal-1">
    <inertial>
      <origin rpy="0 0 0" xyz="0.10199 0.0089825 0.030025"/>
      <mass value="0.0045"/>
      <inertia ixx="4.5E-06" ixy="0" ixz="0" iyy="4.5E-06" iyz="0" izz="4.5E-06"/>
    </inertial>
    <collision>
      <origin rpy="-1.36808 -1.50 1.3" xyz="-0.008 0.0035 -0.0"/>
      <geometry>
        <cylinder length="0.019" radius="0.008"/>
      </geometry>
    </collision>
    <collision>
      <origin rpy="-1.36808 -1.50 1.15" xyz="-0.025 0.0075 -0.0"/>
      <geometry>
        <cylinder length="0.019" radius="0.007"/>
      </geometry>
    </collision>
    <collision>
      <origin rpy="-1.36808 -1.50 0.8" xyz="-0.033 0.01005 -0.0"/>
      <geometry>
        <sphere radius="0.007"/>
      </geometry>
    </collision>
    <collision>
      <origin rpy="-1.36808 -1.50 2.5" xyz="-0.035 0.007 -0.0"/>
      <geometry>
        <cylinder length="0.0005" radius="0.0065"/>
      </geometry>
    </collision>
    <visual>
      <origin rpy="-0.13 -1.5708 0" xyz="0 0 0"/>
      <geometry>
        <mesh filename="meshes/left/Pinky_Distal0.obj"/>
      </geometry>
      <material name="">
        <color rgba="0.75294 0.75294 0.75294 1"/>
      </material>
    </visual>
    <visual>
      <origin rpy="-0.13 -1.5708 0" xyz="0 0 0"/>
      <geometry>
        <mesh filename="meshes/left/Pinky_Distal1.obj"/>
      </geometry>
      <material name="">
        <color rgba="0.75294 0.75294 0.75294 1"/>
      </material>
    </visual>
    <visual>
      <origin rpy="-0.13 -1.5708 0" xyz="0 0 0"/>
      <geometry>
        <mesh filename="meshes/left/Pinky_Nail.obj"/>
      </geometry>
      <material name="">
        <color rgba="0.75294 0.75294 0.75294 1"/>
      </material>
    </visual>
  </link>
  <joint name="left_pinky_distal_flex" type="revolute">
    <origin rpy="0 0 0" xyz="-0.028 0 0"/>
    <parent link="left_Pinky_Proximal-1"/>
    <child link="left_Pinky_Distal-1"/>
    <axis xyz="0 0 -1"/>
    <limit effort="0.1" lower="0" upper="1.5708" velocity="1.5"/>
    <dynamics damping="0.05" friction="0"/>
  </joint>
  <link name="left_dklu-38017-001-1">
    <inertial>
      <origin rpy="0 0 0" xyz="-0.018718 0.0049845 -2.4964E-07"/>
      <mass value="0.003237"/>
      <inertia ixx="2.1873E-07" ixy="1.2176E-07" ixz="9.5436E-12" iyy="4.7488E-07" iyz="2.3028E-12" izz="5.1862E-07"/>
    </inertial>
    <visual>
      <geometry>
        <mesh filename="meshes/left/dklu-38017-001-1.obj"/>
      </geometry>
      <material name="">
        <color rgba="0.75294 0.75294 0.75294 1"/>
      </material>
    </visual>
  </link>
  <joint name="left_pinky_cosmesis" type="fixed">
    <parent link="left_Pinky_Distal-1"/>
    <child link="left_dklu-38017-001-1"/>
    <axis xyz="0 0 0"/>
  </joint>
  <!-- <gazebo>
      gearbox needs to work when parent/child is reversed
    <joint name="middle_outer" type="gearbox">
      <parent>Middle_Proximal-1</parent>
      <child>Middle_Ring_Distal-1</child>
      <gearbox_reference_body>Middle_Ring_Median-1</gearbox_reference_body>
      <gearbox_ratio>-1.0</gearbox_ratio>
      <axis>
        <xyz>1 1 1</xyz>
      </axis>
      <axis2>
        <xyz>1 1 1</xyz>
      </axis2>
    </joint>
    <joint name="middle_inner" type="gearbox">
      <parent>MRP_Differential</parent>
      <child>Middle_Ring_Median-1</child>
      <gearbox_ratio>-1.0</gearbox_ratio>
      <gearbox_reference_body>Middle_Proximal-1</gearbox_reference_body>
      <axis>
        <xyz>0.036469 0.978869 0.20121</xyz>
      </axis>
      <axis2>
        <xyz>0.036469 0.978869 0.20121</xyz>
      </axis2>
    </joint>
    </gazebo> -->
  <!-- Mod -->
  <transmission name="left_tran_thumb_yaw" type="SimpleTransmission">
    <type>transmission_interface/SimpleTransmission</type>
    <joint name="left_thumb_yaw">
      <hardwareInterface>hardware_interface/PositionJointInterface</hardwareInterface>
    </joint>
    <actuator name="left_motor_thumb_yaw">
      <mechanicalReduction>1</mechanicalReduction>
    </actuator>
  </transmission>
  <transmission name="left_tran_thumb_pitch" type="SimpleTransmission">
    <type>transmission_interface/SimpleTransmission</type>
    <joint name="left_thumb_pitch">
      <hardwareInterface>hardware_interface/PositionJointInterface</hardwareInterface>
    </joint>
    <actuator name="left_motor_thumb_pitch">
      <mechanicalReduction>1</mechanicalReduction>
    </actuator>
  </transmission>
  <transmission name="left_tran_index_proximal_flex" type="SimpleTransmission">
    <type>transmission_interface/SimpleTransmission</type>
    <joint name="left_index_proximal_flex">
      <hardwareInterface>hardware_interface/PositionJointInterface</hardwareInterface>
    </joint>
    <actuator name="left_motor_index_proximal_flex">
      <mechanicalReduction>1</mechanicalReduction>
    </actuator>
  </transmission>
  <transmission name="left_tran_index_distal_flex" type="SimpleTransmission">
    <type>transmission_interface/SimpleTransmission</type>
    <joint name="left_index_distal_flex">
      <hardwareInterface>hardware_interface/PositionJointInterface</hardwareInterface>
    </joint>
    <actuator name="left_motor_index_distal_flex">
      <mechanicalReduction>1</mechanicalReduction>
    </actuator>
  </transmission>
  <transmission name="left_tran_mrp_differential_flex" type="SimpleTransmission">
    <type>transmission_interface/SimpleTransmission</type>
    <joint name="left_mrp_differential_flex">
      <hardwareInterface>hardware_interface/PositionJointInterface</hardwareInterface>
    </joint>
    <actuator name="left_motor_mrp_differential_flex">
      <mechanicalReduction>1</mechanicalReduction>
    </actuator>
  </transmission>
  <transmission name="left_tran_middle_proximal_flex" type="SimpleTransmission">
    <type>transmission_interface/SimpleTransmission</type>
    <joint name="left_middle_proximal_flex">
      <hardwareInterface>hardware_interface/PositionJointInterface</hardwareInterface>
    </joint>
    <actuator name="left_motor_middle_proximal_flex">
      <mechanicalReduction>1</mechanicalReduction>
    </actuator>
  </transmission>
  <transmission name="left_tran_middle_median_flex" type="SimpleTransmission">
    <type>transmission_interface/SimpleTransmission</type>
    <joint name="left_middle_median_flex">
      <hardwareInterface>hardware_interface/PositionJointInterface</hardwareInterface>
    </joint>
    <actuator name="left_motor_middle_median_flex">
      <mechanicalReduction>1</mechanicalReduction>
    </actuator>
  </transmission>
  <transmission name="left_tran_middle_distal_flex" type="SimpleTransmission">
    <type>transmission_interface/SimpleTransmission</type>
    <joint name="left_middle_distal_flex">
      <hardwareInterface>hardware_interface/PositionJointInterface</hardwareInterface>
    </joint>
    <actuator name="left_motor_middle_distal_flex">
      <mechanicalReduction>1</mechanicalReduction>
    </actuator>
  </transmission>
  <transmission name="left_tran_ring_proximal_flex" type="SimpleTransmission">
    <type>transmission_interface/SimpleTransmission</type>
    <joint name="left_ring_proximal_flex">
      <hardwareInterface>hardware_interface/PositionJointInterface</hardwareInterface>
    </joint>
    <actuator name="left_motor_ring_proximal_flex">
      <mechanicalReduction>1</mechanicalReduction>
    </actuator>
  </transmission>
  <transmission name="left_tran_ring_median_flex" type="SimpleTransmission">
    <type>transmission_interface/SimpleTransmission</type>
    <joint name="left_ring_median_flex">
      <hardwareInterface>hardware_interface/PositionJointInterface</hardwareInterface>
    </joint>
    <actuator name="left_motor_ring_median_flex">
      <mechanicalReduction>1</mechanicalReduction>
    </actuator>
  </transmission>
  <transmission name="left_tran_ring_distal_flex" type="SimpleTransmission">
    <type>transmission_interface/SimpleTransmission</type>
    <joint name="left_ring_distal_flex">
      <hardwareInterface>hardware_interface/PositionJointInterface</hardwareInterface>
    </joint>
    <actuator name="left_motor_ring_distal_flex">
      <mechanicalReduction>1</mechanicalReduction>
    </actuator>
  </transmission>
  <transmission name="left_tran_pinky_proximal_flex" type="SimpleTransmission">
    <type>transmission_interface/SimpleTransmission</type>
    <joint name="left_pinky_proximal_flex">
      <hardwareInterface>hardware_interface/PositionJointInterface</hardwareInterface>
    </joint>
    <actuator name="left_motor_pinky_proximal_flex">
      <mechanicalReduction>1</mechanicalReduction>
    </actuator>
  </transmission>
  <transmission name="left_tran_pinky_distal_flex" type="SimpleTransmission">
    <type>transmission_interface/SimpleTransmission</type>
    <joint name="left_pinky_distal_flex">
      <hardwareInterface>hardware_interface/PositionJointInterface</hardwareInterface>
    </joint>
    <actuator name="left_motor_pinky_distal_flex">
      <mechanicalReduction>1</mechanicalReduction>
    </actuator>
  </transmission>
  <gazebo reference="left_WR_Base-1">
    <!-- <selfCollide>1</selfCollide> -->
    <collision>
      <max_contacts>4</max_contacts>
      <surface>
        <contact>
          <ode>
            <kp>1e+06</kp>
            <kd>100</kd>
            <max_vel>100</max_vel>
            <min_depth>0.001</min_depth>
          </ode>
        </contact>
        <friction>
          <ode>
            <mu>1</mu>
            <mu2>1</mu2>
          </ode>
        </friction>
      </surface>
    </collision>
    <visual>
      <material>
        <ambient> 0.5 0.5 0.5 1.0</ambient>
        <diffuse> 0.5 0.5 0.5 1.0</diffuse>
        <specular>0.5 0.5 0.5 0.8</specular>
      </material>
    </visual>
  </gazebo>
  <gazebo reference="left_wrist_rot">
    <implicitSpringDamper>1</implicitSpringDamper>
  </gazebo>
  <gazebo reference="left_wrist_ab_ad">
    <implicitSpringDamper>1</implicitSpringDamper>
  </gazebo>
  <gazebo reference="left_wrist_flex">
    <implicitSpringDamper>1</implicitSpringDamper>
  </gazebo>
  <gazebo reference="left_thumb_yaw">
    <implicitSpringDamper>1</implicitSpringDamper>
    <stopCfm>0.1</stopCfm>
    <stopErp>0.5</stopErp>
  </gazebo>
  <gazebo reference="left_thumb_pitch">
    <implicitSpringDamper>1</implicitSpringDamper>
    <stopCfm>0.1</stopCfm>
    <stopErp>0.5</stopErp>
  </gazebo>
  <gazebo reference="left_index_proximal_flex">
    <implicitSpringDamper>1</implicitSpringDamper>
    <stopCfm>0.1</stopCfm>
    <stopErp>0.5</stopErp>
  </gazebo>
  <gazebo reference="left_index_distal_flex">
    <implicitSpringDamper>1</implicitSpringDamper>
    <stopCfm>0.1</stopCfm>
    <stopErp>0.2</stopErp>
  </gazebo>
  <gazebo reference="left_mrp_differential_flex">
    <implicitSpringDamper>1</implicitSpringDamper>
    <stopCfm>0.1</stopCfm>
    <stopErp>0.2</stopErp>
    <!-- stiff spring
      <springReference>0</springReference>
      <springStiffness>0.01</springStiffness>
      -->
  </gazebo>
  <gazebo reference="left_middle_proximal_flex">
    <implicitSpringDamper>1</implicitSpringDamper>
    <stopCfm>0.1</stopCfm>
    <stopErp>0.5</stopErp>
    <springReference>-1.5708</springReference>
    <springStiffness>0.00636619772</springStiffness>
  </gazebo>
  <gazebo reference="left_middle_median_flex">
    <implicitSpringDamper>1</implicitSpringDamper>
    <stopCfm>0.1</stopCfm>
    <stopErp>0.3</stopErp>
  </gazebo>
  <gazebo reference="left_middle_distal_flex">
    <implicitSpringDamper>1</implicitSpringDamper>
    <stopCfm>0.1</stopCfm>
    <stopErp>0.2</stopErp>
  </gazebo>
  <gazebo reference="left_ring_proximal_flex">
    <implicitSpringDamper>1</implicitSpringDamper>
    <stopCfm>0.1</stopCfm>
    <stopErp>0.5</stopErp>
    <springReference>-1.5708</springReference>
    <springStiffness>0.00636619772</springStiffness>
  </gazebo>
  <gazebo reference="left_ring_median_flex">
    <implicitSpringDamper>1</implicitSpringDamper>
    <stopCfm>0.1</stopCfm>
    <stopErp>0.3</stopErp>
  </gazebo>
  <gazebo reference="left_ring_distal_flex">
    <implicitSpringDamper>1</implicitSpringDamper>
    <stopCfm>0.1</stopCfm>
    <stopErp>0.2</stopErp>
  </gazebo>
  <gazebo reference="left_pinky_proximal_flex">
    <implicitSpringDamper>1</implicitSpringDamper>
    <stopCfm>0.1</stopCfm>
    <stopErp>0.5</stopErp>
    <springReference>-1.5708</springReference>
    <springStiffness>0.00636619772</springStiffness>
  </gazebo>
  <gazebo reference="left_pinky_distal_flex">
    <implicitSpringDamper>1</implicitSpringDamper>
    <stopCfm>0.1</stopCfm>
    <stopErp>0.2</stopErp>
  </gazebo>
  <gazebo reference="left_WR_Forearm-1">
    <!-- <selfCollide>1</selfCollide> -->
    <collision>
      <max_contacts>4</max_contacts>
      <surface>
        <contact>
          <ode>
            <kp>1e+06</kp>
            <kd>100</kd>
            <max_vel>100</max_vel>
            <min_depth>0.001</min_depth>
          </ode>
        </contact>
        <friction>
          <ode>
            <mu>1</mu>
            <mu2>1</mu2>
          </ode>
        </friction>
      </surface>
    </collision>
    <visual>
      <material>
        <ambient> 0.6 0.6 0.6 1.0</ambient>
        <diffuse> 0.6 0.6 0.6 1.0</diffuse>
        <specular>0.6 0.6 0.6 0.8</specular>
      </material>
    </visual>
  </gazebo>
  <gazebo reference="left_WFD_Gearbox-1">
    <!-- <selfCollide>1</selfCollide> -->
    <collision>
      <max_contacts>1</max_contacts>
      <surface>
        <contact>
          <ode>
            <kp>1e+06</kp>
            <kd>100</kd>
            <max_vel>100</max_vel>
            <min_depth>0.001</min_depth>
          </ode>
        </contact>
        <friction>
          <ode>
            <mu>1</mu>
            <mu2>1</mu2>
          </ode>
        </friction>
      </surface>
    </collision>
    <visual>
      <material>
        <ambient> 0.4 0.4 0.4 1.0</ambient>
        <diffuse> 0.4 0.4 0.4 1.0</diffuse>
        <specular>0.4 0.4 0.4 0.8</specular>
      </material>
    </visual>
  </gazebo>
  <gazebo reference="left_Palm-1">
    <!-- <selfCollide>1</selfCollide> -->
    <collision>
      <max_contacts>4</max_contacts>
      <surface>
        <contact>
          <ode>
            <kp>1e+06</kp>
            <kd>100</kd>
            <max_vel>100</max_vel>
            <min_depth>0.001</min_depth>
          </ode>
        </contact>
        <friction>
          <ode>
            <mu>1</mu>
            <mu2>1</mu2>
          </ode>
        </friction>
      </surface>
    </collision>
    <visual>
      <material>
        <ambient> 0.8 0.8 0.8 0.6</ambient>
        <diffuse> 0.8 0.8 0.8 1.0</diffuse>
        <specular>0.8 0.8 0.8 0.3</specular>
      </material>
    </visual>
  </gazebo>
  <gazebo reference="left_Thumb_Gear-1">
    <!-- <selfCollide>1</selfCollide> -->
    <collision>
      <max_contacts>2</max_contacts>
      <surface>
        <contact>
          <ode>
            <kp>1e+06</kp>
            <kd>100</kd>
            <max_vel>100</max_vel>
            <min_depth>0.001</min_depth>
          </ode>
        </contact>
        <friction>
          <ode>
            <mu>1</mu>
            <mu2>1</mu2>
          </ode>
        </friction>
      </surface>
    </collision>
    <visual>
      <material>
        <ambient> 0.6 0.6 0.6 0.6</ambient>
        <diffuse> 0.6 0.6 0.6 1.0</diffuse>
        <specular>0.6 0.6 0.6 0.3</specular>
      </material>
    </visual>
  </gazebo>
  <gazebo reference="left_Distal_Thumb-1">
    <selfCollide>1</selfCollide>
    <collision>
      <max_contacts>2</max_contacts>
      <surface>
        <contact>
          <ode>
            <kp>1e+06</kp>
            <kd>100</kd>
            <max_vel>100</max_vel>
            <min_depth>0.001</min_depth>
          </ode>
        </contact>
        <friction>
          <ode>
            <mu>1</mu>
            <mu2>1</mu2>
          </ode>
        </friction>
      </surface>
    </collision>
    <visual>
      <material>
        <ambient> 0.7 0.7 0.7 0.6</ambient>
        <diffuse> 0.7 0.7 0.7 1.0</diffuse>
        <specular>0.7 0.7 0.7 0.3</specular>
      </material>
    </visual>
  </gazebo>
  <gazebo reference="left_dklu-38013-001">
    <selfCollide>1</selfCollide>
    <collision>
      <max_contacts>2</max_contacts>
      <surface>
        <contact>
          <poissons_ratio>0.495</poissons_ratio>
          <elastic_modulus>610000.0</elastic_modulus>
          <ode>
            <kp>1e+06</kp>
            <kd>100</kd>
            <max_vel>100</max_vel>
            <min_depth>0.001</min_depth>
          </ode>
        </contact>
        <friction>
          <torsional>
            <coefficient>1.0</coefficient>
            <use_patch_radius>0</use_patch_radius>
            <surface_radius>0.0072</surface_radius>
          </torsional>
          <ode>
            <mu>1</mu>
            <mu2>1</mu2>
          </ode>
        </friction>
      </surface>
    </collision>
    <visual>
      <material>
        <ambient> 0.8 0.8 0.8 0.1</ambient>
        <diffuse> 0.8 0.8 0.8 1.0</diffuse>
        <specular>0.8 0.8 0.8 0.1</specular>
      </material>
    </visual>
  </gazebo>
  <gazebo reference="left_Index_Proximal-1">
    <selfCollide>1</selfCollide>
    <collision>
      <max_contacts>2</max_contacts>
      <surface>
        <contact>
          <ode>
            <kp>1e+06</kp>
            <kd>100</kd>
            <max_vel>100</max_vel>
            <min_depth>0.001</min_depth>
          </ode>
        </contact>
        <friction>
          <ode>
            <mu>1</mu>
            <mu2>1</mu2>
          </ode>
        </friction>
      </surface>
    </collision>
    <visual>
      <material>
        <ambient> 0.7 0.7 0.7 0.8</ambient>
        <diffuse> 0.7 0.7 0.7 1.0</diffuse>
        <specular>0.7 0.7 0.7 0.1</specular>
      </material>
    </visual>
  </gazebo>
  <gazebo reference="left_Index_Distal-1">
    <selfCollide>1</selfCollide>
    <collision>
      <max_contacts>2</max_contacts>
      <surface>
        <contact>
          <ode>
            <kp>1e+06</kp>
            <kd>100</kd>
            <max_vel>100</max_vel>
            <min_depth>0.001</min_depth>
          </ode>
        </contact>
        <friction>
          <ode>
            <mu>1</mu>
            <mu2>1</mu2>
          </ode>
        </friction>
      </surface>
    </collision>
    <visual>
      <material>
        <ambient> 0.7 0.7 0.7 0.8</ambient>
        <diffuse> 0.7 0.7 0.7 1.0</diffuse>
        <specular>0.7 0.7 0.7 0.1</specular>
      </material>
    </visual>
  </gazebo>
  <gazebo reference="left_dklu-38014-0011-1">
    <selfCollide>1</selfCollide>
    <collision>
      <max_contacts>1</max_contacts>
      <surface>
        <contact>
          <poissons_ratio>0.495</poissons_ratio>
          <elastic_modulus>610000.0</elastic_modulus>
          <ode>
            <kp>1e+06</kp>
            <kd>100</kd>
            <max_vel>100</max_vel>
            <min_depth>0.001</min_depth>
          </ode>
        </contact>
        <friction>
          <torsional>
            <coefficient>1.0</coefficient>
            <use_patch_radius>0</use_patch_radius>
            <surface_radius>0.0072</surface_radius>
          </torsional>
          <ode>
            <mu>1</mu>
            <mu2>1</mu2>
          </ode>
        </friction>
      </surface>
    </collision>
    <visual>
      <material>
        <ambient> 0.8 0.8 0.8 0.1</ambient>
        <diffuse> 0.8 0.8 0.8 1.0</diffuse>
        <specular>0.8 0.8 0.8 0.1</specular>
      </material>
    </visual>
  </gazebo>
  <gazebo reference="left_Middle_Proximal-1">
    <selfCollide>1</selfCollide>
    <collision>
      <max_contacts>2</max_contacts>
      <surface>
        <contact>
          <ode>
            <kp>1e+06</kp>
            <kd>100</kd>
            <max_vel>100</max_vel>
            <min_depth>0.001</min_depth>
          </ode>
        </contact>
        <friction>
          <ode>
            <mu>1</mu>
            <mu2>1</mu2>
          </ode>
        </friction>
      </surface>
    </collision>
    <visual>
      <material>
        <ambient> 0.6 0.6 0.6 0.8</ambient>
        <diffuse> 0.6 0.6 0.6 1.0</diffuse>
        <specular>0.6 0.6 0.6 0.1</specular>
      </material>
    </visual>
  </gazebo>
  <gazebo reference="left_Middle_Ring_Median-1">
    <selfCollide>1</selfCollide>
    <collision>
      <max_contacts>2</max_contacts>
      <surface>
        <contact>
          <ode>
            <kp>1e+06</kp>
            <kd>100</kd>
            <max_vel>100</max_vel>
            <min_depth>0.001</min_depth>
          </ode>
        </contact>
        <friction>
          <ode>
            <mu>1</mu>
            <mu2>1</mu2>
          </ode>
        </friction>
      </surface>
    </collision>
    <visual>
      <material>
        <ambient> 0.5 0.5 0.5 0.8</ambient>
        <diffuse> 0.5 0.5 0.5 1.0</diffuse>
        <specular>0.5 0.5 0.5 0.1</specular>
      </material>
    </visual>
  </gazebo>
  <gazebo reference="left_Middle_Ring_Distal-1">
    <selfCollide>1</selfCollide>
    <collision>
      <max_contacts>2</max_contacts>
      <surface>
        <contact>
          <ode>
            <kp>1e+06</kp>
            <kd>100</kd>
            <max_vel>100</max_vel>
            <min_depth>0.001</min_depth>
          </ode>
        </contact>
        <friction>
          <ode>
            <mu>1</mu>
            <mu2>1</mu2>
          </ode>
        </friction>
      </surface>
    </collision>
    <visual>
      <material>
        <ambient> 0.7 0.7 0.7 0.8</ambient>
        <diffuse> 0.7 0.7 0.7 1.0</diffuse>
        <specular>0.7 0.7 0.7 0.1</specular>
      </material>
    </visual>
  </gazebo>
  <gazebo reference="left_dklu-38015-001-1">
    <selfCollide>1</selfCollide>
    <collision>
      <max_contacts>1</max_contacts>
      <surface>
        <contact>
          <poissons_ratio>0.495</poissons_ratio>
          <elastic_modulus>610000.0</elastic_modulus>
          <ode>
            <kp>1e+06</kp>
            <kd>100</kd>
            <max_vel>100</max_vel>
            <min_depth>0.001</min_depth>
          </ode>
        </contact>
        <friction>
          <torsional>
            <coefficient>1.0</coefficient>
            <use_patch_radius>0</use_patch_radius>
            <surface_radius>0.0072</surface_radius>
          </torsional>
          <ode>
            <mu>1</mu>
            <mu2>1</mu2>
          </ode>
        </friction>
      </surface>
    </collision>
    <visual>
      <material>
        <ambient> 0.8 0.8 0.8 0.1</ambient>
        <diffuse> 0.8 0.8 0.8 1.0</diffuse>
        <specular>0.8 0.8 0.8 0.1</specular>
      </material>
    </visual>
  </gazebo>
  <gazebo reference="left_Ring_Proximal-1">
    <selfCollide>1</selfCollide>
    <collision>
      <max_contacts>2</max_contacts>
      <surface>
        <contact>
          <ode>
            <kp>1e+06</kp>
            <kd>100</kd>
            <max_vel>100</max_vel>
            <min_depth>0.001</min_depth>
          </ode>
        </contact>
        <friction>
          <ode>
            <mu>1</mu>
            <mu2>1</mu2>
          </ode>
        </friction>
      </surface>
    </collision>
    <visual>
      <material>
        <ambient> 0.7 0.7 0.7 0.8</ambient>
        <diffuse> 0.7 0.7 0.7 1.0</diffuse>
        <specular>0.7 0.7 0.7 0.1</specular>
      </material>
    </visual>
  </gazebo>
  <gazebo reference="left_Middle_Ring_Median-2">
    <selfCollide>1</selfCollide>
    <collision>
      <max_contacts>2</max_contacts>
      <surface>
        <contact>
          <ode>
            <kp>1e+06</kp>
            <kd>100</kd>
            <max_vel>100</max_vel>
            <min_depth>0.001</min_depth>
          </ode>
        </contact>
        <friction>
          <ode>
            <mu>1</mu>
            <mu2>1</mu2>
          </ode>
        </friction>
      </surface>
    </collision>
    <visual>
      <material>
        <ambient> 0.6 0.6 0.6 0.8</ambient>
        <diffuse> 0.6 0.6 0.6 1.0</diffuse>
        <specular>0.6 0.6 0.6 0.1</specular>
      </material>
    </visual>
  </gazebo>
  <gazebo reference="left_Middle_Ring_Distal-2">
    <selfCollide>1</selfCollide>
    <collision>
      <max_contacts>2</max_contacts>
      <surface>
        <contact>
          <ode>
            <kp>1e+06</kp>
            <kd>100</kd>
            <max_vel>100</max_vel>
            <min_depth>0.001</min_depth>
          </ode>
        </contact>
        <friction>
          <ode>
            <mu>1</mu>
            <mu2>1</mu2>
          </ode>
        </friction>
      </surface>
    </collision>
    <visual>
      <material>
        <ambient> 0.7 0.7 0.7 0.8</ambient>
        <diffuse> 0.7 0.7 0.7 1.0</diffuse>
        <specular>0.7 0.7 0.7 0.1</specular>
      </material>
    </visual>
  </gazebo>
  <gazebo reference="left_dklu-38016-001-1">
    <selfCollide>1</selfCollide>
    <collision>
      <max_contacts>1</max_contacts>
      <surface>
        <contact>
          <poissons_ratio>0.495</poissons_ratio>
          <elastic_modulus>610000.0</elastic_modulus>
          <ode>
            <kp>1e+06</kp>
            <kd>100</kd>
            <max_vel>100</max_vel>
            <min_depth>0.001</min_depth>
          </ode>
        </contact>
        <friction>
          <torsional>
            <coefficient>1.0</coefficient>
            <use_patch_radius>0</use_patch_radius>
            <surface_radius>0.0072</surface_radius>
          </torsional>
          <ode>
            <mu>1</mu>
            <mu2>1</mu2>
          </ode>
        </friction>
      </surface>
    </collision>
    <visual>
      <material>
        <ambient> 0.8 0.8 0.8 0.1</ambient>
        <diffuse> 0.8 0.8 0.8 1.0</diffuse>
        <specular>0.8 0.8 0.8 0.1</specular>
      </material>
    </visual>
  </gazebo>
  <gazebo reference="left_Pinky_Proximal-1">
    <selfCollide>1</selfCollide>
    <collision>
      <max_contacts>2</max_contacts>
      <surface>
        <contact>
          <ode>
            <kp>1e+06</kp>
            <kd>100</kd>
            <max_vel>100</max_vel>
            <min_depth>0.001</min_depth>
          </ode>
        </contact>
        <friction>
          <ode>
            <mu>1</mu>
            <mu2>1</mu2>
          </ode>
        </friction>
      </surface>
    </collision>
    <visual>
      <material>
        <ambient> 0.6 0.6 0.6 0.8</ambient>
        <diffuse> 0.6 0.6 0.6 1.0</diffuse>
        <specular>0.6 0.6 0.6 0.1</specular>
      </material>
    </visual>
  </gazebo>
  <gazebo reference="left_Pinky_Distal-1">
    <selfCollide>1</selfCollide>
    <collision>
      <max_contacts>2</max_contacts>
      <surface>
        <contact>
          <ode>
            <kp>1e+06</kp>
            <kd>100</kd>
            <max_vel>100</max_vel>
            <min_depth>0.001</min_depth>
          </ode>
        </contact>
        <friction>
          <ode>
            <mu>1</mu>
            <mu2>1</mu2>
          </ode>
        </friction>
      </surface>
    </collision>
    <visual>
      <material>
        <ambient> 0.7 0.7 0.7 0.8</ambient>
        <diffuse> 0.7 0.7 0.7 1.0</diffuse>
        <specular>0.7 0.7 0.7 0.1</specular>
      </material>
    </visual>
  </gazebo>
  <gazebo reference="left_dklu-38017-001-1">
    <selfCollide>1</selfCollide>
    <collision>
      <max_contacts>1</max_contacts>
      <surface>
        <contact>
          <poissons_ratio>0.495</poissons_ratio>
          <elastic_modulus>610000.0</elastic_modulus>
          <ode>
            <kp>1e+06</kp>
            <kd>100</kd>
            <max_vel>100</max_vel>
            <min_depth>0.001</min_depth>
          </ode>
        </contact>
        <friction>
          <torsional>
            <coefficient>1.0</coefficient>
            <use_patch_radius>0</use_patch_radius>
            <surface_radius>0.0072</surface_radius>
          </torsional>
          <ode>
            <mu>1</mu>
            <mu2>1</mu2>
          </ode>
        </friction>
      </surface>
    </collision>
    <visual>
      <material>
        <ambient> 0.8 0.8 0.8 0.1</ambient>
        <diffuse> 0.8 0.8 0.8 1.0</diffuse>
        <specular>0.8 0.8 0.8 0.1</specular>
      </material>
    </visual>
  </gazebo>
  <gazebo reference="left_Distal_Thumb-1">
    <sensor name="left_thumb_distal_ulnar_contact_sensor" type="contact">
      <always_on>1</always_on>
      <contact>
        <!-- these collision names make more sense after parsing to SDF -->
        <!--<collision>Distal_Thumb-1_collision</collision>-->
        <collision>left_Distal_Thumb-1_collision_11</collision>
        <topic>left_Distal_Ulnar_Thumb-1_collision</topic>
      </contact>
    </sensor>
    <sensor name="left_thumb_distal_dorsal_contact_sensor" type="contact">
      <always_on>1</always_on>
      <contact>
        <!-- these collision names make more sense after parsing to SDF -->
        <collision>left_Distal_Thumb-1_collision_7</collision>
        <topic>left_Distal_Dorsal_Thumb-1_collision</topic>
      </contact>
    </sensor>
    <sensor name="left_thumb_distal_contact_sensor" type="contact">
      <always_on>1</always_on>
      <contact>
        <!-- these collision names make more sense after parsing to SDF -->
        <collision>left_Distal_Thumb-1_collision_9</collision>
        <collision>left_Distal_Thumb-1_collision_10</collision>
        <topic>left_Distal_Thumb-1_collision</topic>
      </contact>
    </sensor>
    <sensor name="left_thumb_distal_side_contact_sensor" type="contact">
      <always_on>1</always_on>
      <contact>
        <!-- these collision names make more sense after parsing to SDF -->
        <collision>left_Distal_Thumb-1_collision_12</collision>
        <!-- extend copied to side-->
        <!--<collision>Distal_Thumb-1_collision_9</collision>  extend copied to side-->
        <topic>left_Distal_Thumb-1_side_collision</topic>
      </contact>
    </sensor>
    <sensor name="left_Distal_Thumb-1_imu_sensor" type="imu">
      <pose>0 0 0  1.570796 -1.570796 0</pose>
      <always_on>1</always_on>
      <update_rate>1000</update_rate>
      <imu>
        <noise>
          <type>gaussian</type>
          <rate>
            <mean>0</mean>
            <stddev>0.0002</stddev>
            <bias_mean>7.5e-06</bias_mean>
            <bias_stddev>8e-07</bias_stddev>
          </rate>
          <accel>
            <mean>0</mean>
            <stddev>0.017</stddev>
            <bias_mean>0.1</bias_mean>
            <bias_stddev>0.001</bias_stddev>
          </accel>
        </noise>
      </imu>
    </sensor>
  </gazebo>
  <gazebo reference="left_Index_Proximal-1">
    <sensor name="left_index_proximal_contact_sensor" type="contact">
      <always_on>1</always_on>
      <contact>
        <!-- these collision names make more sense after parsing to SDF -->
        <collision>left_Index_Proximal-1_collision</collision>
        <topic>left_Index_Proximal-1_collision</topic>
      </contact>
    </sensor>
  </gazebo>
  <gazebo reference="left_Index_Distal-1">
    <sensor name="left_index_distal_contact_sensor" type="contact">
      <always_on>1</always_on>
      <contact>
        <!-- these collision names make more sense after parsing to SDF -->
        <collision>left_Index_Distal-1_collision</collision>
        <collision>left_Index_Distal-1_collision_1</collision>
        <collision>left_Index_Distal-1_collision_2</collision>
        <!-- extend -->
        <topic>left_Index_Distal-1_collision</topic>
      </contact>
    </sensor>
  </gazebo>
  <gazebo reference="left_Index_Distal-1">
    <sensor name="left_index_distal_side_contact_sensor" type="contact">
      <always_on>1</always_on>
      <contact>
        <!-- these collision names make more sense after parsing to SDF -->
        <collision>left_Index_Distal-1_collision_4</collision>
        <!-- extend copied -->
        <topic>left_Index_Distal-1_side_collision</topic>
      </contact>
    </sensor>
  </gazebo>
  <gazebo reference="left_Middle_Proximal-1">
    <sensor name="left_middle_proximal_contact_sensor" type="contact">
      <always_on>1</always_on>
      <contact>
        <!-- these collision names make more sense after parsing to SDF -->
        <collision>left_Middle_Proximal-1_collision</collision>
        <topic>left_Middle_Proximal-1_collision</topic>
      </contact>
    </sensor>
  </gazebo>
  <gazebo reference="left_Middle_Ring_Median-1">
    <sensor name="left_middle_median_contact_sensor" type="contact">
      <always_on>1</always_on>
      <contact>
        <!-- these collision names make more sense after parsing to SDF -->
        <collision>left_Middle_Ring_Median-1_collision</collision>
        <topic>left_Middle_Ring_Median-1_collision</topic>
      </contact>
    </sensor>
  </gazebo>
  <gazebo reference="left_Middle_Ring_Distal-1">
    <sensor name="left_middle_distal_contact_sensor" type="contact">
      <always_on>1</always_on>
      <contact>
        <!-- these collision names make more sense after parsing to SDF -->
        <collision>left_Middle_Ring_Distal-1_collision</collision>
        <collision>left_Middle_Ring_Distal-1_collision_1</collision>
        <collision>left_Middle_Ring_Distal-1_collision_2</collision>
        <topic>left_Middle_Ring_Distal-1_collision</topic>
      </contact>
    </sensor>
  </gazebo>
  <gazebo reference="left_Ring_Proximal-1">
    <sensor name="left_ring_proximal_contact_sensor" type="contact">
      <always_on>1</always_on>
      <contact>
        <!-- these collision names make more sense after parsing to SDF -->
        <collision>left_Ring_Proximal-1_collision</collision>
        <topic>left_Ring_Proximal-1_collision</topic>
      </contact>
    </sensor>
  </gazebo>
  <gazebo reference="left_Middle_Ring_Median-2">
    <sensor name="left_ring_median_contact_sensor" type="contact">
      <always_on>1</always_on>
      <contact>
        <!-- these collision names make more sense after parsing to SDF -->
        <collision>left_Middle_Ring_Median-2_collision</collision>
        <topic>left_Middle_Ring_Median-2_collision</topic>
      </contact>
    </sensor>
  </gazebo>
  <gazebo reference="left_Middle_Ring_Distal-2">
    <sensor name="left_ring_distal_contact_sensor" type="contact">
      <always_on>1</always_on>
      <contact>
        <!-- these collision names make more sense after parsing to SDF -->
        <collision>left_Middle_Ring_Distal-2_collision</collision>
        <collision>left_Middle_Ring_Distal-2_collision_1</collision>
        <collision>left_Middle_Ring_Distal-2_collision_2</collision>
        <topic>left_Middle_Ring_Distal-2_collision</topic>
      </contact>
    </sensor>
  </gazebo>
  <gazebo reference="left_Pinky_Proximal-1">
    <sensor name="left_pinky_proximal_contact_sensor" type="contact">
      <always_on>1</always_on>
      <contact>
        <!-- these collision names make more sense after parsing to SDF -->
        <collision>left_Pinky_Proximal-1_collision</collision>
        <topic>left_Pinky_Proximal-1_collision</topic>
      </contact>
    </sensor>
  </gazebo>
  <gazebo reference="left_Pinky_Distal-1">
    <sensor name="left_pinky_distal_contact_sensor" type="contact">
      <always_on>1</always_on>
      <contact>
        <!-- these collision names make more sense after parsing to SDF -->
        <collision>left_Pinky_Distal-1_collision</collision>
        <collision>left_Pinky_Distal-1_collision_1</collision>
        <collision>left_Pinky_Distal-1_collision_2</collision>
        <topic>left_Pinky_Distal-1_collision</topic>
      </contact>
    </sensor>
  </gazebo>
  <gazebo reference="left_Palm-1">
    <sensor name="left_palm_front_distal_contact_sensor" type="contact">
      <always_on>1</always_on>
      <contact>
        <!-- these collision names make more sense after parsing to SDF -->
        <collision>left_Palm-1_collision_1</collision>
        <topic>left_Palm-1_collision</topic>
      </contact>
    </sensor>
    <sensor name="left_palm_front_proximal_contact_sensor" type="contact">
      <always_on>1</always_on>
      <contact>
        <!-- these collision names make more sense after parsing to SDF -->
        <collision>left_Palm-1_collision_8</collision>
        <topic>left_Palm-1_collision_proximal</topic>
      </contact>
    </sensor>
    <sensor name="left_palm_inside_contact_sensor" type="contact">
      <always_on>1</always_on>
      <contact>
        <!-- these collision names make more sense after parsing to SDF -->
        <collision>left_Palm-1_collision_3</collision>
        <topic>left_Palm-1_collision_inside</topic>
      </contact>
    </sensor>
    <sensor name="left_palm_outside_contact_sensor" type="contact">
      <always_on>1</always_on>
      <contact>
        <!-- these collision names make more sense after parsing to SDF -->
        <collision>left_Palm-1_collision_2</collision>
        <topic>left_Palm-1_collision_outside</topic>
      </contact>
    </sensor>
    <sensor name="left_palm_back_contact_sensor" type="contact">
      <always_on>1</always_on>
      <contact>
        <!-- these collision names make more sense after parsing to SDF -->
        <collision>left_Palm-1_collision</collision>
        <topic>left_Palm-1_collision</topic>
      </contact>
    </sensor>
  </gazebo>
  <link name="left_end">
    <inertial>
      <origin rpy="0 0 0" xyz="0 0 1"/>
      <mass value="1e-1"/>
      <inertia ixx="1e-2" ixy="0.0" ixz="0.0" iyy="1e-2" iyz="0.0" izz="1e-2"/>
    </inertial>
  </link>
  <!-- <gazebo reference="left_end"/> -->
  <!-->
  <joint
    name="left_static"
    type="fixed">
    <origin
      xyz="0 0 0"
      rpy="0 0 0" />
    <parent
      link="headset_static_link" />
    <child
      link="left_end" />
    <axis
      xyz="0 0 0" />
  </joint>
  </!-->
  <joint name="left_static" type="fixed">
    <!-- Vive controller -->
    <origin rpy="1.57079632679 3.1415926 -0.4961623" xyz="-0.00077349 0.0012316 0.075483"/>
    <!-- unsure/original -->
    <!-->
    <origin
      xyz="0 0 0.05"
      rpy="-3.1514926 0 0" />
    </!-->
    <!-- index controller -->
    <!-->
    <origin
      xyz="-0.00077349 0.0012316 0.075483"
      rpy="-0.767 0.0 0.4961623" />
    </!-->
    <parent link="left_Palm-1"/>
    <child link="left_end"/>
    <axis xyz="0 0 0"/>
  </joint>
  <link name="right_end">
    <inertial>
      <origin rpy="0 0 0" xyz="0 0 1"/>
      <mass value="1e-1"/>
      <inertia ixx="1e-2" ixy="0.0" ixz="0.0" iyy="1e-2" iyz="0.0" izz="1e-2"/>
    </inertial>
  </link>
  <!-- <gazebo reference="right_end"/> -->
  <joint name="right_static" type="fixed">
    <!-- Vive controller -->
    <origin rpy="-1.57079632679 0.0 0.4961623" xyz="-0.00077349 0.0012316 0.075483"/>
    <!-- unsure/original -->
    <!-->
    <origin
      xyz="0 0 0.05"
      rpy="-3.1514926 0 0" />
    </!-->
    <!-- index controller -->
    <!-->
    <origin
      xyz="-0.00077349 0.0012316 0.075483"
      rpy="-0.767 0.0 0.4961623" />
    </!-->
    <parent link="right_Palm-1"/>
    <child link="right_end"/>
    <axis xyz="0 0 0"/>
  </joint>
  <link name="right_elbow">
    <inertial>
      <origin rpy="0 0 0" xyz="0 0 1"/>
      <mass value="1e-1"/>
      <inertia ixx="1e-2" ixy="0.0" ixz="0.0" iyy="1e-2" iyz="0.0" izz="1e-2"/>
    </inertial>
  </link>
  <joint name="right_elbow_static" type="fixed">
    <!-- Vive controller -->
    <origin rpy="0 -3.1415926 0.0" xyz="0 0 0"/>
    <parent link="right_HR"/>
    <child link="right_elbow"/>
    <axis xyz="0 0 0"/>
  </joint>
  <link name="left_elbow">
    <inertial>
      <origin rpy="0 0 0" xyz="0 0 1"/>
      <mass value="1e-1"/>
      <inertia ixx="1e-2" ixy="0.0" ixz="0.0" iyy="1e-2" iyz="0.0" izz="1e-2"/>
    </inertial>
  </link>
  <joint name="left_elbow_static" type="fixed">
    <!-- Vive controller -->
    <origin rpy="0 0.0 0" xyz="0 0 0"/>
    <parent link="left_HR"/>
    <child link="left_elbow"/>
    <axis xyz="0 0 0"/>
  </joint>
  <gazebo>
    <plugin filename="libgazebo_ros_control.so" name="gazebo_ros_control">
      <robotNamespace>/</robotNamespace>
    </plugin>
  </gazebo>
  <transmission name="head_pitch_trans">
    <type>transmission_interface/SimpleTransmission</type>
    <actuator name="$head_pitch_motor">
      <mechanicalReduction>1</mechanicalReduction>
    </actuator>
    <joint name="head_pitch">
      <hardwareInterface>hardware_interface/PositionJointInterface</hardwareInterface>
    </joint>
  </transmission>
  <transmission name="head_roll_trans">
    <type>transmission_interface/SimpleTransmission</type>
    <actuator name="$head_roll_motor">
      <mechanicalReduction>1</mechanicalReduction>
    </actuator>
    <joint name="head_roll">
      <hardwareInterface>hardware_interface/PositionJointInterface</hardwareInterface>
    </joint>
  </transmission>
  <transmission name="head_yaw_trans">
    <type>transmission_interface/SimpleTransmission</type>
    <actuator name="$head_yaw_motor">
      <mechanicalReduction>1</mechanicalReduction>
    </actuator>
    <joint name="head_yaw">
      <hardwareInterface>hardware_interface/PositionJointInterface</hardwareInterface>
    </joint>
  </transmission>
  <transmission name="left_shoulder_add_trans">
    <type>transmission_interface/SimpleTransmission</type>
    <actuator name="$left_shoulder_add_motor">
      <mechanicalReduction>1</mechanicalReduction>
    </actuator>
    <joint name="left_shoulder_add">
      <hardwareInterface>hardware_interface/PositionJointInterface</hardwareInterface>
    </joint>
  </transmission>
  <transmission name="right_shoulder_add_trans">
    <type>transmission_interface/SimpleTransmission</type>
    <actuator name="$right_shoulder_add_motor">
      <mechanicalReduction>1</mechanicalReduction>
    </actuator>
    <joint name="right_shoulder_add">
      <hardwareInterface>hardware_interface/PositionJointInterface</hardwareInterface>
    </joint>
  </transmission>
</robot>
